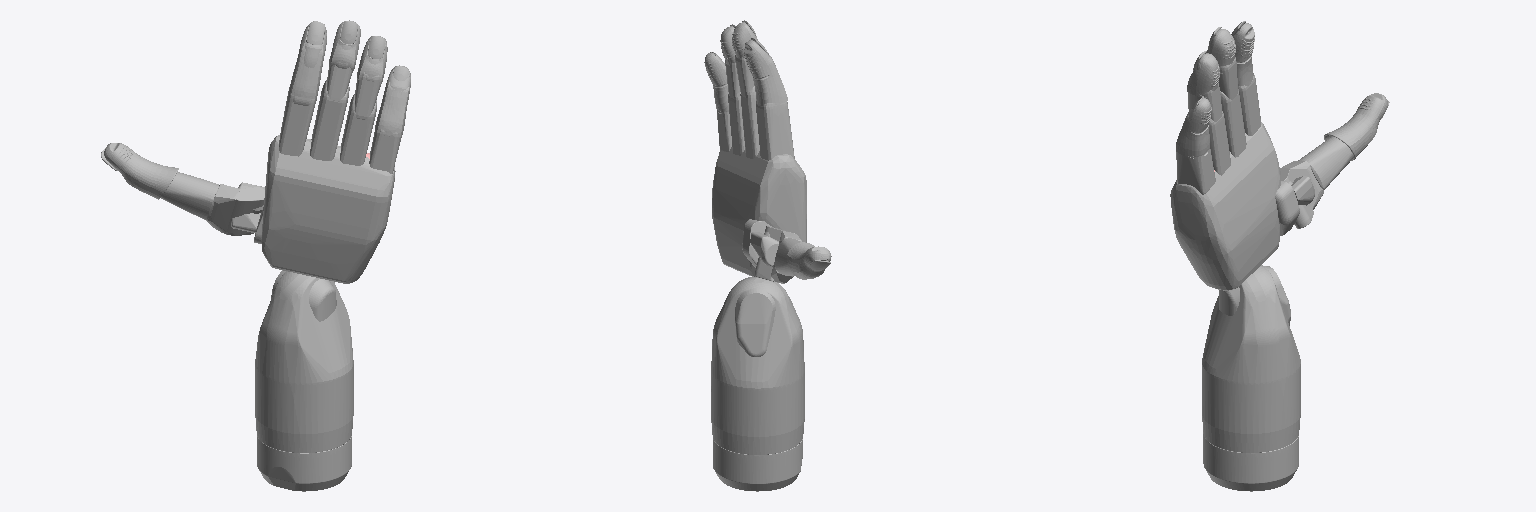
--- Render facts (derived) ---
The picture shows the robot from 3 angles, left to right: view 1: azimuth 30°, elevation 25°; view 2: azimuth 150°, elevation 25°; view 3: azimuth 270°, elevation 25°; orthographic projection.
Robot: luke_hand_description — 23 links, 22 joints (17 revolute, 5 fixed); root link world; default pose: all joints at 0.
Visible links, largest first — view 1: Palm-1, WR_Forearm-1, Distal_Thumb-1, WR_Base-1, dklu-38013-001, Middle_Proximal-1, Index_Proximal-1, Ring_Proximal-1, dklu-38014-0011-1, dklu-38017-001-1, WFD_Gearbox-1, Pinky_Proximal-1 (+5 smaller); view 2: WR_Forearm-1, Palm-1, WR_Base-1, WFD_Gearbox-1, Index_Proximal-1, dklu-38014-0011-1, Distal_Thumb-1, dklu-38013-001, Middle_Proximal-1, dklu-38017-001-1, Ring_Proximal-1; view 3: WR_Forearm-1, Palm-1, WR_Base-1, Distal_Thumb-1, dklu-38013-001, dklu-38017-001-1, Pinky_Proximal-1, Middle_Proximal-1, dklu-38014-0011-1, Ring_Proximal-1, dklu-38016-001-1, Index_Proximal-1 (+3 smaller).
Link boxes in pixels (bbox=[...]): Palm-1: bbox=[231, 135, 395, 283]; WR_Forearm-1: bbox=[255, 271, 353, 452]; Distal_Thumb-1: bbox=[101, 148, 264, 235]; WR_Base-1: bbox=[257, 436, 351, 491]; dklu-38013-001: bbox=[104, 143, 178, 199]; Middle_Proximal-1: bbox=[310, 80, 349, 160]; Index_Proximal-1: bbox=[279, 91, 316, 156]; Ring_Proximal-1: bbox=[340, 94, 376, 165]; dklu-38014-0011-1: bbox=[289, 24, 326, 98]; dklu-38017-001-1: bbox=[375, 65, 410, 136]; WFD_Gearbox-1: bbox=[271, 270, 336, 321]; Pinky_Proximal-1: bbox=[369, 129, 401, 173]; WR_Forearm-1: bbox=[711, 277, 804, 454]; Palm-1: bbox=[712, 147, 806, 276]; WR_Base-1: bbox=[713, 439, 802, 491]; WFD_Gearbox-1: bbox=[735, 287, 775, 356]; Index_Proximal-1: bbox=[756, 101, 794, 160]; dklu-38014-0011-1: bbox=[744, 40, 787, 106]; Distal_Thumb-1: bbox=[755, 226, 830, 283]; dklu-38013-001: bbox=[787, 242, 831, 279]; Middle_Proximal-1: bbox=[740, 86, 759, 158]; dklu-38017-001-1: bbox=[704, 52, 728, 113]; Ring_Proximal-1: bbox=[728, 92, 744, 155]; WR_Forearm-1: bbox=[1202, 265, 1300, 452]; Palm-1: bbox=[1170, 122, 1314, 290]; WR_Base-1: bbox=[1203, 434, 1298, 491]; Distal_Thumb-1: bbox=[1280, 100, 1389, 228]; dklu-38013-001: bbox=[1324, 93, 1387, 160]; dklu-38017-001-1: bbox=[1176, 98, 1211, 158]; Pinky_Proximal-1: bbox=[1176, 149, 1215, 194]; Middle_Proximal-1: bbox=[1220, 89, 1246, 157]; dklu-38014-0011-1: bbox=[1233, 23, 1254, 85]; Ring_Proximal-1: bbox=[1209, 111, 1230, 175]; dklu-38016-001-1: bbox=[1187, 53, 1219, 97]; Index_Proximal-1: bbox=[1238, 75, 1260, 135].
Bounding box of the posed robot: 0.1592 × 0.1372 × 0.3175 m (x, y, z).
33 mesh visuals loaded from 30 distinct referenced files (30 OBJ).

The robot description file, URDF, robot "luke_hand_description":
<robot
  name="luke_hand_description">
  <!-- testing shift all z by +0.02, y by 0.00475 -->
  <!-- and add <implicitSpringDamper>1</implicitSpringDamper> flag -->
  <link name="world"/>
  <link
    name="WR_Base-1">
    <inertial>
      <origin
        xyz="0.00023527 0 0.01049"
        rpy="0 0 -1.5708" />
      <mass
        value="0.481" />
      <inertia
        ixx="0.00017071"
        ixy="2.1462E-06"
        ixz="-7.2565E-07"
        iyy="0.00016837"
        iyz="4.1009E-07"
        izz="0.00030213" />
    </inertial>
    <collision>
      <origin xyz="0 0 0.0105" rpy="0 0 0"/>
      <geometry>
        <cylinder
          length="0.029" radius="0.032" />
      </geometry>
    </collision>
    <visual>
      <origin xyz="0 0 0.025" rpy="0 0 0"/>
      <geometry>
        <mesh
          filename="package://luke_hand_description/OBJ/base.obj" />
      </geometry>
      <material
        name="">
        <color
          rgba="0.75294 0.75294 0.75294 1" />
      </material>
    </visual>
    <!--
    <visual>
      <origin xyz="0 0 0.001" rpy="0 0 0"/>
      <geometry>
        <mesh
          filename="package://luke_hand_description/OBJ/WR_Base-1a.obj" />
      </geometry>
      <material
        name="">
        <color
          rgba="0.75294 0.75294 0.75294 1" />
      </material>
    </visual>
    <visual>
      <origin xyz="0 0 0.02" rpy="0 0 0"/>
      <geometry>
        <mesh
          filename="package://luke_hand_description/OBJ/WR_Base-1.obj" />
      </geometry>
      <material
        name="">
        <color
          rgba="0.75294 0.75294 0.75294 1" />
      </material>
    </visual>
    -->
  </link>
  <joint
    name="elbow"
    type="revolute">
    <origin
      xyz="0 0 0.12"
      rpy="0 0 1.0472" />
    <parent
      link="world" />
    <child
      link="WR_Base-1" />
    <axis
      xyz="-1 0 0" />
    <limit
      lower="0"
      upper="0"
      effort="10000"
      velocity="100" />
    <dynamics
      damping="2.0"
      friction="0.001"
      />
  </joint>
  <link
    name="WR_Forearm-1">
    <inertial>
      <origin
        xyz="0.00023527 -0.00012926 0.01049"
        rpy="0 0 0" />
      <mass
        value="0.481" />
      <inertia
        ixx="0.00017071"
        ixy="2.1462E-06"
        ixz="-7.2565E-07"
        iyy="0.00016837"
        iyz="4.1009E-07"
        izz="0.00030213" />
    </inertial>
    <collision>
      <origin xyz="0 0 0.065" rpy="0 0 0"/>
      <geometry>
        <cylinder
          length="0.08" radius="0.032" />
      </geometry>
    </collision>
    <collision>
      <origin xyz="0 0 0.121" rpy="1.570796 0 -0.58"/>
      <geometry>
        <cylinder
          length="0.020" radius="0.02" />
      </geometry>
    </collision>
    <collision>
      <origin xyz="0 0 0.103" rpy="1.570796 0 -0.58"/>
      <geometry>
        <cylinder
          length="0.020" radius="0.0275" />
      </geometry>
    </collision>
    <visual>
      <origin xyz="0 0 0.025" rpy="0 0 0.9"/>
      <geometry>
        <mesh
          filename="package://luke_hand_description/OBJ/forearm.obj" />
      </geometry>
      <material
        name="">
        <color
          rgba="0.75294 0.75294 0.75294 1" />
      </material>
    </visual>
    <!--
    <visual>
      <origin xyz="0 0 0.02" rpy="0 0 0"/>
      <geometry>
        <mesh
          filename="package://luke_hand_description/OBJ/MAC_WR_LUI-1.obj" />
      </geometry>
      <material
        name="">
        <color
          rgba="0.75294 0.75294 0.75294 1" />
      </material>
    </visual>
    <visual>
      <origin xyz="0 0 0.018" rpy="0 0 0"/>
      <geometry>
        <mesh
          filename="package://luke_hand_description/OBJ/WFD_Mount-1.obj" />
      </geometry>
      <material
        name="">
        <color
          rgba="0.75294 0.75294 0.75294 1" />
      </material>
    </visual>
    -->
  </link>
  <joint
    name="wrist_rot"
    type="revolute">
    <origin
      xyz="0 0 0"
      rpy="0 0 0" />
    <parent
      link="WR_Base-1" />
    <child
      link="WR_Forearm-1" />
    <axis
      xyz="0 0 -1" />
    <limit
      lower="-2.0944"
      upper="2.558"
      effort="10000"
      velocity="100" />
    <dynamics
      damping="30"
      friction="0.001" />
  </joint>
  <link
    name="WFD_Gearbox-1">
    <inertial>
      <origin
        xyz="-0.00077349 0.0012316 0.025483"
        rpy="0 0 0" />
      <mass
        value="0.1555" />
      <inertia
        ixx="0.0001555"
        ixy="0"
        ixz="0"
        iyy="0.0001555"
        iyz="0"
        izz="0.0001555" />
    </inertial>
    <collision>
      <origin xyz="0 0 0" rpy="1.570796 0.124566 0"/>
      <geometry>
        <cylinder
          length="0.035" radius="0.013" />
      </geometry>
    </collision>
    <visual>
      <origin xyz="0 0 0" rpy="0 0 1.56073"/>
      <geometry>
        <mesh
          filename="package://luke_hand_description/OBJ/wrist.obj" />
      </geometry>
      <material
        name="">
        <color
          rgba="0.75294 0.75294 0.75294 1" />
      </material>
    </visual>
    <!--
    <visual>
      <origin xyz="0 -0.023265 -0.098808" rpy="-0.195329 0.124566 0.56073"/>
      <geometry>
        <mesh
          filename="package://luke_hand_description/OBJ/WFD_Gearbox-1.obj" />
      </geometry>
      <material
        name="">
        <color
          rgba="0.75294 0.75294 0.75294 1" />
      </material>
    </visual>
    -->
  </link>
  <joint
    name="wrist_ab_ad"
    type="revolute">
    <origin
      xyz="0 0 0.12151"
      rpy="0.23124 0 -0.57295" />
    <parent
      link="WR_Forearm-1" />
    <child
      link="WFD_Gearbox-1" />
    <axis
      xyz="1 0 0" />
    <limit
      lower="0"
      upper="0.52359877559"
      effort="10000"
      velocity="100" />
    <dynamics
      damping="1"
      friction="0.1" />
  </joint>
  <link
    name="Palm-1">
    <inertial>
      <origin
        xyz="-0.00077349 0.0012316 0.025483"
        rpy="0 0 0" />
      <mass
        value="0.4747" />
      <inertia
        ixx="0.00047"
        ixy="0"
        ixz="0"
        iyy="0.00047"
        iyz="0"
        izz="0.00047" />
    </inertial>
    <collision>
      <!-- -0.003-((0.033+0.003)/4)*cos(0.5607), -((0.033+0.003)/4)*sin(0.5607), z -->
      <origin xyz="-0.01062194765 -0.00478601231 0.065" rpy="0.0 0.0 0.50"/>
      <geometry>
        <box size="0.0195 0.065 0.08"/>
      </geometry>
    </collision>
    <!-- Palm front distal -->
    <collision>
      <!-- -0.003+((0.033+0.012)/4)*cos(0.5607), ((0.033+0.012)/4)*sin(0.5607), z -->
      <origin xyz="0.00652743457 0.00598251539 0.065" rpy="0.0 0.0 0.50"/>
      <geometry>
        <box size="0.0225 0.065 0.035"/>
      </geometry>
    </collision>
    <!-- DEBUG: front collision visual
    <visual>
      <!- -0.003+((0.033+0.012)/4)*cos(0.5607), ((0.033+0.012)/4)*sin(0.5607), z ->
      <origin xyz="0.01652743457 0.00598251539 0.065" rpy="0.0 0.0 0.50"/>
      <geometry>
        <box size="0.0225 0.065 0.05"/>
      </geometry>
    </visual>
    -->
    <collision> <!-- outside -->
      <!-- -0.003+(0.075/2-0.005/2)*sin(0.5607), -(0.075/2-0.005/2)*cos(0.5607), z -->
      <origin xyz="0.01561227012 -0.02964090755 0.065" rpy="0.0 0.0 0.56073"/>
      <geometry>
        <box size="0.033 0.005 0.06"/>
      </geometry>
    </collision>
    <collision> <!-- inside 3 -->
      <!-- -0.003-(0.075/2-0.005/2)*sin(0.5607), (0.075/2-0.005/2)*cos(0.5607), z -->
      <origin xyz="-0.02161227012 0.02964090755 0.065" rpy="0.0 0.0 0.56073"/>
      <geometry>
        <box size="0.033 0.005 0.06"/>
      </geometry>
    </collision>
    <!-- DEBUG: collision visual
    <visual>
      <!- -0.003-(0.075/2-0.005/2)*sin(0.5607), (0.075/2-0.005/2)*cos(0.5607), z ->
      <origin xyz="-0.02161227012 0.03964090755 0.065" rpy="0.0 0.0 0.56073"/>
      <geometry>
        <box size="0.033 0.005 0.06"/>
      </geometry>
    </visual>
    -->
    <!--
    <collision>
      <origin xyz="-0.003 0 0.065" rpy="0.0 0.0 0.56073"/>
      <geometry>
        <box size="0.033 0.075 0.08"/>
      </geometry>
    </collision>
    -->

    <collision>
      <origin xyz="-0.013 0.025 0.015" rpy="0.0 0.0 0.56073"/>
      <geometry>
        <box size="0.03 0.005 0.02"/>
      </geometry>
    </collision>
    <collision>
      <origin xyz="0.013 -0.025 0.015" rpy="0.0 0.0 0.56073"/>
      <geometry>
        <box size="0.03 0.005 0.02"/>
      </geometry>
    </collision>
    <collision>
      <origin xyz="0 0.025 0.00" rpy="0.0 0.0 0"/>
      <geometry>
        <box size="0.03 0.005 0.02"/>
      </geometry>
    </collision>
    <collision>
      <origin xyz="0 -0.025 0.00" rpy="0.0 0.0 0"/>
      <geometry>
        <box size="0.03 0.005 0.02"/>
      </geometry>
    </collision>
    <!-- Palm front proximal -->
    <collision>
      <!-- -0.003+((0.033+0.012)/4)*cos(0.5607), ((0.033+0.012)/4)*sin(0.5607), z -->
      <origin xyz="0.00652743457 0.00598251539 0.040" rpy="0.0 0.0 0.50"/>
      <geometry>
        <box size="0.0225 0.065 0.015"/>
      </geometry>
    </collision>
    <!--
    <visual>
      <origin xyz="0 -0.023265 -0.098808" rpy="-0.195329 0.124566 0.56073"/>
      <geometry>
        <mesh
          filename="package://luke_hand_description/OBJ/Palm-1.obj" />
      </geometry>
      <material
        name="">
        <color
          rgba="0.75294 0.75294 0.75294 1" />
      </material>
    </visual>
    -->
    <visual>
      <origin xyz="0 0 0" rpy="0 0 2.06073"/>
      <geometry>
        <mesh
          filename="package://luke_hand_description/OBJ/palm0.obj" />
      </geometry>
      <material
        name="">
        <color
          rgba="0.75294 0.75294 0.75294 1" />
      </material>
    </visual>
    <visual>
      <origin xyz="0 0 0" rpy="0 0 2.06073"/>
      <geometry>
        <mesh
          filename="package://luke_hand_description/OBJ/palm1.obj" />
      </geometry>
      <material
        name="">
        <color
          rgba="0.75294 0.75294 0.75294 1" />
      </material>
    </visual>
    <!--
    <visual>
      <origin xyz="0 0 0" rpy="0 0 2.06073"/>
      <geometry>
        <mesh
          filename="package://luke_hand_description/OBJ/palm12.obj" />
      </geometry>
      <material
        name="">
        <color
          rgba="0.75294 0.75294 0.75294 1" />
      </material>
    </visual>
    -->
    <visual>
      <origin xyz="0 0 0" rpy="0 0 2.06073"/>
      <geometry>
        <mesh
          filename="package://luke_hand_description/OBJ/palm2.obj" />
      </geometry>
      <material
        name="">
        <color
          rgba="0.75294 0.75294 0.75294 1" />
      </material>
    </visual>
  </link>
  <joint
    name="wrist_flex"
    type="revolute">
    <origin
      xyz="0 0 0"
      rpy="0 0 5.5511E-17" />
    <parent
      link="WFD_Gearbox-1" />
    <child
      link="Palm-1" />
    <axis
      xyz="0 -1 0" />
    <limit
      lower="-0.937024"
      upper="0.946296"
      effort="10000"
      velocity="100" />
    <dynamics
      damping="70"
      friction="0.1" />
  </joint>
  <link
    name="Thumb_Gear-1">
    <inertial>
      <origin
        xyz="-0.023851 -0.037247 0.017527"
        rpy="0 0 0" />
      <mass
        value="0.01" />
      <inertia
        ixx="1E-05"
        ixy="0"
        ixz="0"
        iyy="1E-05"
        iyz="0"
        izz="1E-05" />
    </inertial>
    <collision>
      <origin xyz="0 0 0" rpy="0 1.58 -0.2"/>
      <geometry>
        <cylinder length="0.032" radius="0.005"/>
      </geometry>
    </collision>
    <!--
    <visual>
      <origin xyz="-0.146139 -0.036862 0.050607" rpy="2.82164 1.26851 2.83524"/>
      <geometry>
        <mesh
          filename="package://luke_hand_description/OBJ/Thumb_Gear-1.obj" />
      </geometry>
      <material
        name="">
        <color
          rgba="0.75294 0.75294 0.75294 1" />
      </material>
    </visual>
    -->
    <visual>
      <origin xyz="0 0 0" rpy="2.8 1.6 2.6"/>
      <geometry>
        <mesh
          filename="package://luke_hand_description/OBJ/thumb_Gear.obj" />
      </geometry>
      <material
        name="">
        <color
          rgba="0.75294 0.75294 0.75294 1" />
      </material>
    </visual>
  </link>
  <joint
    name="thumb_yaw"
    type="revolute">
    <origin
      xyz="-0.0088038 0.043847 0.04505"
      rpy="-2.349 -1.3196 2.8562" />
    <parent
      link="Palm-1" />
    <child
      link="Thumb_Gear-1" />
    <axis
      xyz="-0.18257 -0.98319 0" />
    <limit
      lower="0"
      upper="1.28173"
      effort="10000"
      velocity="100" />
    <dynamics
      damping="0.9"
      friction="0.0" />
  </joint>
  <link
    name="Distal_Thumb-1">
    <inertial>
      <origin
        xyz="-0.023851 -0.037247 0.017527"
        rpy="0 0 0" />
      <mass
        value="0.035" />
      <inertia
        ixx="3.5E-05"
        ixy="0"
        ixz="0"
        iyy="3.5E-05"
        iyz="0"
        izz="3.5E-05" />
    </inertial>
    <collision> <!-- 0 -->
      <origin xyz="-0.0125 0.015 0.0065" rpy="1.7 0 -0.2"/>
      <geometry>
        <box size="0.005 0.011 0.018" />
      </geometry>
    </collision>

    <collision> <!-- 1 -->
      <origin xyz="0.017 0.008 0.0095" rpy="1.7 0 -0.2"/>
      <geometry>
        <box size="0.003 0.007 0.018" />
      </geometry>
    </collision>

    <collision> <!-- 2 -->
      <origin xyz="0.005 0.020 0.0085" rpy="1.7 0 -0.2"/>
      <geometry>
        <box size="0.030 0.011 0.008" />
      </geometry>
    </collision>

    <collision> <!-- 3 -->
      <origin xyz="0.008 0.040 0.010" rpy="1.7 0 -0.2"/>
      <geometry>
        <cylinder length="0.03" radius="0.012" />
      </geometry>
    </collision>
    <collision> <!-- 4 extend -->
      <origin xyz="0.013 0.065 0.011" rpy="1.6 0 -0.2"/>
      <geometry>
        <cylinder length="0.020" radius="0.010" />
      </geometry>
    </collision>
    <!-- DEBUG: collision visual extend
    <visual>
      <origin xyz="0.023 0.065 0.011" rpy="1.6 0 -0.2"/>
      <geometry>
        <cylinder length="0.020" radius="0.010" />
      </geometry>
    </visual>
    -->

    <!-- Distal_Thumb-1 collisions -->
    <collision> <!-- 5 -->
      <origin xyz="0.021 0.082 0.011" rpy="1.6 0 -0.6"/>
      <geometry>
        <cylinder length="0.020" radius="0.007" />
      </geometry>
    </collision>
    <collision> <!-- 6 -->
      <origin xyz="0.0265 0.090 0.011" rpy="1.6 0 -0.6"/>
      <geometry>
        <sphere radius="0.007" />
      </geometry>
    </collision>
    <!-- Dorsal 7 -->
    <collision>
      <origin xyz="0.022 0.094 0.013" rpy="1.5 0.0 -2.3"/>
      <geometry>
        <cylinder length="0.0005" radius="0.006" />
      </geometry>
    </collision>
    <!-- DEBUG: collision visual
    <visual>
      <origin xyz="0.031 0.082 0.011" rpy="1.6 0 -0.6"/>
      <geometry>
        <cylinder length="0.020" radius="0.007" />
      </geometry>
    </visual>
    <visual>
      <origin xyz="0.0365 0.090 0.011" rpy="1.6 0 -0.6"/>
      <geometry>
        <sphere radius="0.007" />
      </geometry>
    </visual>
    <visual>
      <origin xyz="0.032 0.094 0.013" rpy="1.5 0.0 -2.3"/>
      <geometry>
        <cylinder length="0.0005" radius="0.006" />
      </geometry>
    </visual>
    -->

    <collision> <!-- 8 extend, move to side -->
      <origin xyz="0.013 0.065 0.010" rpy="1.6 0 -0.2"/>
      <geometry>
        <cylinder length="0.020" radius="0.010" />
      </geometry>
    </collision>
    <collision> <!-- 9 -->
      <origin xyz="0.021 0.082 0.010" rpy="1.6 0 -0.6"/>
      <geometry>
        <cylinder length="0.020" radius="0.007" />
      </geometry>
    </collision>
    <!-- Volar 10 -->
    <collision>
      <origin xyz="0.0285 0.085 0.011" rpy="1.5 0.0 -2.1"/>
      <geometry>
        <cylinder length="0.0005" radius="0.006" />
      </geometry>
    </collision>

    <!-- Ulnar 11 -->
    <collision>
      <origin xyz="0.0225 0.085 0.02" rpy="3.04 0.14 0.0"/>
      <geometry>
        <cylinder length="0.0005" radius="0.006" />
      </geometry>
    </collision>

    <!-- Radial 12 -->
    <collision>
      <origin xyz="0.0225 0.085 0.005" rpy="3.04 0.14 0.0"/>
      <geometry>
        <cylinder length="0.0005" radius="0.006" />
      </geometry>
    </collision>
    <!-- DEBUG: collision visual
    <visual>
      <origin xyz="0.013 0.065 -0.000" rpy="1.6 0 -0.2"/>
      <geometry>
        <cylinder length="0.020" radius="0.010" />
      </geometry>
    </visual>
    -->

    <visual>
      <origin xyz="0 0 0" rpy="1.51 -0.06 1.38"/>
      <geometry>
        <mesh
          filename="package://luke_hand_description/OBJ/Thumb_Nail.obj" />
      </geometry>
      <material
        name="">
        <color
          rgba="0.75294 0.75294 0.75294 1" />
      </material>
    </visual>
    <visual>
      <origin xyz="0 0 0" rpy="1.51 -0.06 1.38"/>
      <geometry>
        <mesh
          filename="package://luke_hand_description/OBJ/Thumb_Distal.obj" />
      </geometry>
      <material
        name="">
        <color
          rgba="0.75294 0.75294 0.75294 1" />
      </material>
    </visual>
    <visual>
      <origin xyz="0 0 0" rpy="1.51 -0.06 1.38"/>
      <geometry>
        <mesh
          filename="package://luke_hand_description/OBJ/Thumb_Proximal.obj" />
      </geometry>
      <material
        name="">
        <color
          rgba="0.75294 0.75294 0.75294 1" />
      </material>
    </visual>
    <visual>
      <origin xyz="0 0 0" rpy="1.51 -0.06 1.38"/>
      <geometry>
        <mesh
          filename="package://luke_hand_description/OBJ/thumb1.obj" />
      </geometry>
      <material
        name="">
        <color
          rgba="0.75294 0.75294 0.75294 1" />
      </material>
    </visual>
    <visual>
      <origin xyz="0 0 0" rpy="1.51 -0.06 1.38"/>
      <geometry>
        <mesh
          filename="package://luke_hand_description/OBJ/thumb0.obj" />
      </geometry>
      <material
        name="">
        <color
          rgba="0.75294 0.75294 0.75294 1" />
      </material>
    </visual>
    <!--
    <visual>
      <origin xyz="-0.146139 -0.036862 0.050607" rpy="2.82164 1.26851 2.83524"/>
      <geometry>
      "0 0 0"  <mesh
          filename="package://luke_hand_description/OBJ/Distal_Thumb-1.obj" />
      </geometry>
      <material
        name="">
        <color
          rgba="0.75294 0.75294 0.75294 1" />
      </material>
    </visual>
    -->
  </link>
  <joint
    name="thumb_pitch"
    type="revolute">
    <!-- 15 degrees rotation as initial position match fine pinches -->
    <origin
      xyz="0 0 0"
      rpy="-0.261 0.006 -0.046" />
    <parent
      link="Thumb_Gear-1" />
    <child
      link="Distal_Thumb-1" />
    <axis
      xyz="-1 0.18 0" />
    <limit
      lower="0"
      upper="1.77151"
      effort="10000"
      velocity="100" />
    <dynamics
      damping="0.6"
      friction="0.0" />
  </joint>
  <link
    name="dklu-38013-001">
    <inertial>
      <origin
        xyz="0.0036074 0.077779 0.0021647"
        rpy="0 0 0" />
      <mass
        value="0.0049221" />
      <inertia
        ixx="8.1722E-07"
        ixy="5.8087E-08"
        ixz="1.5443E-08"
        iyy="3.6646E-07"
        iyz="1.29E-07"
        izz="7.8746E-07" />
    </inertial>
    <visual>
      <origin xyz="0 0 0" rpy="-1.0 1.8 -1.19"/>
      <geometry>
        <mesh
          filename="package://luke_hand_description/OBJ/dklu-38013-001-1.obj" />
      </geometry>
      <material
        name="">
        <color
          rgba="0.75294 0.75294 0.75294 1" />
      </material>
    </visual>
  </link>
  <joint
    name="thumb_cosmesis"
    type="fixed">
    <origin
      xyz="0 0 0"
      rpy="5.2042E-18 -5.5511E-17 -3.4694E-18" />
    <parent
      link="Distal_Thumb-1" />
    <child
      link="dklu-38013-001" />
    <axis
      xyz="0 0 0" />
  </joint>
  <link
    name="Index_Proximal-1">
    <inertial>
      <origin
        xyz="0.073068 -0.014703 0.011025"
        rpy="0 0 0" />
      <mass
        value="0.0191" />
      <inertia
        ixx="1.91E-05"
        ixy="0"
        ixz="0"
        iyy="1.91E-05"
        iyz="0"
        izz="1.91E-05" />
    </inertial>
    <collision>
      <origin xyz="-0.02 0.0023 0.039" rpy="1.36808 -1.50 -1.48"/>
      <geometry>
        <cylinder length="0.05" radius="0.0095"/>
      </geometry>
    </collision>
    <!--
    <visual>
      <origin xyz="0.196826 -0.030547 -0.010923" rpy="1.36808 -0.03651 -1.66632"/>
      <geometry>
        <mesh
          filename="package://luke_hand_description/OBJ/Index_Proximal-1.obj" />
      </geometry>
      <material
        name="">
        <color
          rgba="0.25098 0.25098 0.25098 1" />
      </material>
    </visual>
    -->
    <visual>
      <origin xyz="0 0 0.039" rpy="-0.1 -1.5708 -0"/>
      <geometry>
        <mesh
          filename="package://luke_hand_description/OBJ/Index_Proximal.obj" />
      </geometry>
      <material
        name="">
        <color
          rgba="0.75294 0.75294 0.75294 1" />
      </material>
    </visual>
  </link>
  <joint
    name="index_proximal_flex"
    type="revolute">
    <origin
      xyz="0.0062467 -0.0076872 0.099967"
      rpy="1.558 1.3505 -2.6305" />
    <parent
      link="Palm-1" />
    <child
      link="Index_Proximal-1" />
    <axis
      xyz="0 0 1" />
    <limit
      lower="0"
      upper="1.48571"
      effort="10000"
      velocity="100" />
    <dynamics
      damping="0.3"
      friction="0.1" />
  </joint>
  <link
    name="Index_Distal-1">
    <inertial>
      <origin
        xyz="0.11426 -0.0063439 -0.027975"
        rpy="0 0 0" />
      <mass
        value="0.0172" />
      <inertia
        ixx="1.72E-05"
        ixy="0"
        ixz="0"
        iyy="1.72E-05"
        iyz="0"
        izz="1.72E-05" />
    </inertial>
    <collision>
      <origin xyz="-0.015 -0.002 0" rpy="1.36808 -1.50 -1.15"/>
      <geometry>
        <cylinder length="0.028" radius="0.0095"/>
      </geometry>
    </collision>
    <collision>
      <origin xyz="-0.035 -0.0075 0" rpy="1.36808 -1.50 -1.15"/>
      <geometry>
        <cylinder length="0.013" radius="0.0085"/>
      </geometry>
    </collision>
    <collision>
      <origin xyz="-0.04 -0.0100 0" rpy="1.36808 -1.50 -1.15"/>
      <geometry>
        <sphere radius="0.0075"/>
      </geometry>
    </collision>
    <collision>
      <origin xyz="-0.0415 -0.007 0" rpy="1.75 -1.50 -2.75"/>
      <geometry>
        <cylinder length="0.0005" radius="0.0075"/>
      </geometry>
    </collision>
    <!-- DEBUG: collision visual
    <visual>
      <origin xyz="-0.015 -0.012 0" rpy="1.36808 -1.50 -1.15"/>
      <geometry>
        <cylinder length="0.028" radius="0.0095"/>
      </geometry>
    </visual>
    <visual>
      <origin xyz="-0.035 -0.0175 0" rpy="1.36808 -1.50 -1.15"/>
      <geometry>
        <cylinder length="0.013" radius="0.0085"/>
      </geometry>
    </visual>
    <visual>
      <origin xyz="-0.04 -0.0200 0" rpy="1.36808 -1.50 -1.15"/>
      <geometry>
        <sphere radius="0.0075"/>
      </geometry>
    </visual>
    <visual>
      <origin xyz="-0.0415 -0.017 0" rpy="1.75 -1.50 -2.75"/>
      <geometry>
        <cylinder length="0.0005" radius="0.0075"/>
      </geometry>
    </visual>
    -->
    <collision> <!-- extend copy for side -->
      <origin xyz="-0.015 -0.002 0.001" rpy="1.36808 -1.50 -1.15"/>
      <geometry>
        <cylinder length="0.028" radius="0.0095"/>
      </geometry>
    </collision>
    <!-- DEBUG: extend copy for side
    <visual>
      <origin xyz="-0.015 -0.002 0.011" rpy="1.36808 -1.50 -1.15"/>
      <geometry>
        <cylinder length="0.028" radius="0.0095"/>
      </geometry>
    </visual>
    -->

<!-- for emo's collision without cosmesis
    <collision>
      <origin xyz="-0.008 -0.002 0" rpy="1.16808 -1.50 -1.15"/>
      <geometry>
        <cylinder length="0.014" radius="0.0095"/>
      </geometry>
    </collision>
    <collision>
      <origin xyz="-0.022 -0.003 0" rpy="1.26808 -1.50 -1.15"/>
      <geometry>
        <cylinder length="0.014" radius="0.009"/>
      </geometry>
    </collision>
    <collision>
      <origin xyz="-0.032 -0.006 0" rpy="1.36808 -1.50 -1.15"/>
      <geometry>
        <cylinder length="0.007" radius="0.008"/>
      </geometry>
    </collision>
    <collision>
      <origin xyz="-0.038 -0.0079 0" rpy="1.36808 -1.50 -1.15"/>
      <geometry>
        <cylinder length="0.005" radius="0.007"/>
      </geometry>
    </collision>
    <collision>
      <origin xyz="-0.04 -0.0085 0" rpy="1.36808 -1.50 -1.15"/>
      <geometry>
        <sphere radius="0.006"/>
      </geometry>
    </collision>
-->
    <!--
    <visual>
      <origin xyz="0.239019 -0.008088 -0.049923" rpy="1.36807 -0.036513 -1.55297"/>
      <geometry>
        <mesh
          filename="package://luke_hand_description/OBJ/Index_Distal-1.obj" />
      </geometry>
      <material
        name="">
        <color
          rgba="0.75294 0.75294 0.75294 1" />
      </material>
    </visual>
    -->
    <visual>
      <origin xyz="0 0 0" rpy="0.12 -1.5708 0"/>
      <geometry>
        <mesh
          filename="package://luke_hand_description/OBJ/Index_Distal0.obj" />
      </geometry>
      <material
        name="">
        <color
          rgba="0.75294 0.75294 0.75294 1" />
      </material>
    </visual>
    <visual>
      <origin xyz="0 0 0" rpy="0.12 -1.5708 0"/>
      <geometry>
        <mesh
          filename="package://luke_hand_description/OBJ/Index_Distal1.obj" />
      </geometry>
      <material
        name="">
        <color
          rgba="0.75294 0.75294 0.75294 1" />
      </material>
    </visual>
    <visual>
      <origin xyz="0 0 0" rpy="0.12 -1.5708 0"/>
      <geometry>
        <mesh
          filename="package://luke_hand_description/OBJ/Index_Nail.obj" />
      </geometry>
      <material
        name="">
        <color
          rgba="0.75294 0.75294 0.75294 1" />
      </material>
    </visual>
  </link>
  <joint
    name="index_distal_flex"
    type="revolute">
    <origin
      xyz="-0.039743 0.0045244 0.039"
      rpy="-3.3059E-15 1.0491E-07 -0.11335" />
    <parent
      link="Index_Proximal-1" />
    <child
      link="Index_Distal-1" />
    <axis
      xyz="0 0 1" />
    <limit
      lower="0"
      upper="1.5708"
      effort="10000"
      velocity="100" />
    <dynamics
      damping="1"
      friction="0.1" />
  </joint>
  <link
    name="dklu-38014-0011-1">
    <inertial>
      <origin
        xyz="-0.024029 -0.0049452 -4.6789E-05"
        rpy="0 0 0" />
      <mass
        value="0.0041212" />
      <inertia
        ixx="2.7902E-07"
        ixy="1.6277E-07"
        ixz="-5.7383E-11"
        iyy="6.7481E-07"
        iyz="-2.5725E-11"
        izz="7.164E-07" />
    </inertial>
    <visual>
      <origin
        xyz="0 0 0"
        rpy="0 0 0" />
      <geometry>
        <mesh
          filename="package://luke_hand_description/OBJ/dklu-38014-0011-1.obj" />
      </geometry>
      <material
        name="">
        <color
          rgba="0.75294 0.75294 0.75294 1" />
      </material>
    </visual>
  </link>
  <joint
    name="index_cosmesis"
    type="fixed">
    <origin
      xyz="0 0 0"
      rpy="7.3726E-18 -2.7756E-17 1.7347E-18" />
    <parent
      link="Index_Distal-1" />
    <child
      link="dklu-38014-0011-1" />
    <axis
      xyz="0 0 0" />
  </joint>

  <!-- model MRP differential joint -->
  <link
    name="MRP_Differential">
    <inertial>
      <origin
        xyz="0.073068 -0.014703 0.011025"
        rpy="0 0 0" />
      <mass
        value="0.0123" />
      <inertia
        ixx="1.23E-05"
        ixy="0"
        ixz="0"
        iyy="1.23E-05"
        iyz="0"
        izz="1.23E-05" />
    </inertial>
    <collision>
      <origin xyz="0 0 0" rpy="0 0 1.570796"/>
      <geometry>
        <cylinder length="0.05" radius="0.0090"/>
      </geometry>
    </collision>
    <visual>
      <origin xyz="0 0 0" rpy="0 0 1.570796"/>
      <geometry>
        <cylinder length="0.05" radius="0.0090"/>
      </geometry>
      <material
        name="">
        <color
          rgba="1.0 0.75294 0.75294 1" />
      </material>
    </visual>
  </link>
  <joint
    name="mrp_differential_flex"
    type="revolute">
    <origin
      xyz="0.0062467 -0.0076872 0.099967"
      rpy="1.558 1.3505 -2.6305" />
    <parent
      link="Palm-1" />
    <child
      link="MRP_Differential" />
    <axis
      xyz="0 0 1" />
    <limit
      lower="0"
      upper="1.20455"
      effort="10000"
      velocity="100" />
    <dynamics
      damping="0.3"
      friction="0.001"
      />
  </joint>

  <link
    name="Middle_Proximal-1">
    <inertial>
      <origin
        xyz="0.074147 -0.0075701 -0.0079751"
        rpy="0 0 0" />
      <mass
        value="0.0131" />
      <inertia
        ixx="1.31E-05"
        ixy="0"
        ixz="0"
        iyy="1.31E-05"
        iyz="0"
        izz="1.31E-05" />
    </inertial>
    <collision>
      <origin xyz="-0.02 0.0 0.0" rpy="1.36808 -1.50 -1.40"/>
      <geometry>
        <cylinder length="0.06" radius="0.0095"/>
      </geometry>
    </collision>
<!--
    <visual>
      <origin xyz="0.198857 -0.011377 -0.029924" rpy="1.36807 -0.036477 -1.56951"/>
      <geometry>
        <mesh
          filename="package://luke_hand_description/OBJ/Middle_Proximal-1.obj" />
      </geometry>
      <material
        name="">
        <color
          rgba="0.75294 0.75294 0.75294 1" />
      </material>
    </visual>
-->
    <visual>
      <origin xyz="0 0 0" rpy="0 -1.5708 0"/>
      <geometry>
        <mesh
          filename="package://luke_hand_description/OBJ/Middle_Proximal.obj" />
      </geometry>
      <material
        name="">
        <color
          rgba="0.75294 0.75294 0.75294 1" />
      </material>
    </visual>
  </link>
  <joint
    name="middle_proximal_flex"
    type="revolute">
    <origin
      xyz="0 0 0.019"
      rpy="-3.7e-05 -7e-06 -0.096814" />
    <parent
      link="MRP_Differential" />
    <child
      link="Middle_Proximal-1" />
    <axis
      xyz="0 0 1" />
    <limit
      lower="0"
      upper="1.5708"
      effort="10000"
      velocity="100" />
    <dynamics
      damping="0.09"
      friction="0.0"
      />
  </joint>
  <link
    name="Middle_Ring_Median-1">
    <inertial>
      <origin
        xyz="0.11845 -0.0075701 -0.0079751"
        rpy="0 0 0" />
      <mass
        value="0.0051" />
      <inertia
        ixx="5.1E-06"
        ixy="0"
        ixz="0"
        iyy="5.1E-06"
        iyz="0"
        izz="5.1E-06" />
    </inertial>
    <collision>
      <origin xyz="-0.015 0.0 -0.0" rpy="1.36808 -1.50 -1.30"/>
      <geometry>
        <cylinder length="0.02" radius="0.0085"/>
      </geometry>
    </collision>
    <!--
    <visual>
      <origin xyz="0.243157 -0.011377 -0.029925" rpy="1.36807 -0.036477 -1.56951"/>
      <geometry>
        <mesh
          filename="package://luke_hand_description/OBJ/Middle_Ring_Median-1.obj" />
      </geometry>
      <material
        name="">
        <color
          rgba="0.75294 0.75294 0.75294 1" />
      </material>
    </visual>
    -->
    <visual>
      <origin xyz="0 0 0" rpy="0.1 -1.5708 0"/>
      <geometry>
        <mesh
          filename="package://luke_hand_description/OBJ/MiddleRing_Median.obj" />
      </geometry>
      <material
        name="">
        <color
          rgba="0.75294 0.75294 0.75294 1" />
      </material>
    </visual>
  </link>
  <joint
    name="middle_median_flex"
    type="revolute">
    <origin
      xyz="-0.0443 0 0"
      rpy="-4.4192E-15 2.2204E-16 1.7156E-15" />
    <parent
      link="Middle_Proximal-1" />
    <child
      link="Middle_Ring_Median-1" />
    <axis
      xyz="0 0 1" />
    <limit
      lower="0"
      upper="1.5708"
      effort="10000"
      velocity="100" />
    <dynamics
      damping="0.09"
      friction="0.0"
      />
  </joint>
  <link
    name="Middle_Ring_Distal-1">
    <inertial>
      <origin
        xyz="0.1427 -0.015269 -0.0079751"
        rpy="0 0 0" />
      <mass
        value="0.0035" />
      <inertia
        ixx="3.5E-06"
        ixy="0"
        ixz="0"
        iyy="3.5E-06"
        iyz="0"
        izz="3.5E-06" />
    </inertial>
    <collision>
      <origin xyz="-0.01 -0.0025 -0.0" rpy="1.36808 -1.50 -1.30"/>
      <geometry>
        <cylinder length="0.02" radius="0.008"/>
      </geometry>
    </collision>
    <collision>
      <origin xyz="-0.018 -0.00325 -0.0" rpy="1.36808 -1.50 -1.30"/>
      <geometry>
        <sphere radius="0.0075"/>
      </geometry>
    </collision>
    <collision>
      <origin xyz="-0.019 0.0010 -0.0" rpy="1.36808 -1.50 -2.80"/>
      <geometry>
        <cylinder length="0.0005" radius="0.0075"/>
      </geometry>
    </collision>
    <!--
    <visual>
      <origin xyz="0.266901 -0.027191 -0.029923" rpy="1.36807 -0.036476 -1.63469"/>
      <geometry>
        <mesh
          filename="package://luke_hand_description/OBJ/Middle_Ring_Distal-1.obj" />
      </geometry>
      <material
        name="">
        <color
          rgba="0.75294 0.75294 0.75294 1" />
      </material>
    </visual>
    -->
    <visual>
      <origin xyz="0 0 0" rpy="0.05 -1.5708 0"/>
      <geometry>
        <mesh
          filename="package://luke_hand_description/OBJ/MiddleRing_Distal.obj" />
      </geometry>
      <material
        name="">
        <color
          rgba="0.75294 0.75294 0.75294 1" />
      </material>
    </visual>
    <visual>
      <origin xyz="0 0 0" rpy="0.05 -1.5708 0"/>
      <geometry>
        <mesh
          filename="package://luke_hand_description/OBJ/MiddleRing_Nail.obj" />
      </geometry>
      <material
        name="">
        <color
          rgba="0.75294 0.75294 0.75294 1" />
      </material>
    </visual>
  </link>
  <joint
    name="middle_distal_flex"
    type="revolute">
    <origin
      xyz="-0.024947 -0.0016284 0"
      rpy="4.5849E-15 3.0683E-08 0.065184" />
    <parent
      link="Middle_Ring_Median-1" />
    <child
      link="Middle_Ring_Distal-1" />
    <axis
      xyz="0 0 1" />
    <limit
      lower="0"
      upper="1.5708"
      effort="10000"
      velocity="100" />
    <dynamics
      damping="0.09"
      friction="0.0"
      />
  </joint>
  <link
    name="dklu-38015-001-1">
    <inertial>
      <origin
        xyz="-0.0102 -0.0015212 -1.2528E-07"
        rpy="0 0 0" />
      <mass
        value="0.0023806" />
      <inertia
        ixx="1.3264E-07"
        ixy="4.184E-08"
        ixz="-1.9193E-12"
        iyy="2.0245E-07"
        iyz="3.0185E-12"
        izz="2.2117E-07" />
    </inertial>
    <visual>
      <origin
        xyz="0 0 0"
        rpy="0 0 0" />
      <geometry>
        <mesh
          filename="package://luke_hand_description/OBJ/dklu-38015-001-1.obj" />
      </geometry>
      <material
        name="">
        <color
          rgba="0.75294 0.75294 0.75294 1" />
      </material>
    </visual>
  </link>
  <joint
    name="middle_cosmesis"
    type="fixed">
    <origin
      xyz="0 0 0"
      rpy="5.20417042793042E-18 0 1.38777878078145E-17" />
    <parent
      link="Middle_Ring_Distal-1" />
    <child
      link="dklu-38015-001-1" />
    <axis
      xyz="0 0 0" />
  </joint>
  <link
    name="Ring_Proximal-1">
    <inertial>
      <origin
        xyz="0.073068 -0.014703 0.011025"
        rpy="0 0 0" />
      <mass
        value="0.0123" />
      <inertia
        ixx="1.23E-05"
        ixy="0"
        ixz="0"
        iyy="1.23E-05"
        iyz="0"
        izz="1.23E-05" />
    </inertial>
    <collision>
      <origin xyz="-0.02 0.0015 -0.0005" rpy="1.36808 -1.50 -1.55"/>
      <geometry>
        <cylinder length="0.05" radius="0.0090"/>
      </geometry>
    </collision>
    <!--
    <visual>
      <origin xyz="0.196826 -0.030547 -0.010923" rpy="1.36808 -0.03651 -1.66632"/>
      <geometry>
        <mesh
          filename="package://luke_hand_description/OBJ/Ring_Proximal-1.obj" />
      </geometry>
      <material
        name="">
        <color
          rgba="0.75294 0.75294 0.75294 1" />
      </material>
    </visual>
    -->
    <visual>
      <origin xyz="0 0 0" rpy="-0.1 -1.5708 0"/>
      <geometry>
        <mesh
          filename="package://luke_hand_description/OBJ/Ring_Proximal.obj" />
      </geometry>
      <material
        name="">
        <color
          rgba="0.75294 0.75294 0.75294 1" />
      </material>
    </visual>
  </link>
  <joint
    name="ring_proximal_flex"
    type="revolute">
    <origin
      xyz="0 0 0"
      rpy="0 0 0" />
      <!-- original, subtrace this from
           middle_proximal_flex and pinky_proximal_flex
      xyz="0.0062467 -0.0076872 0.099967"
      rpy="1.558 1.3505 -2.6305" />
      -->
    <parent
      link="MRP_Differential" />
    <child
      link="Ring_Proximal-1" />
    <axis
      xyz="0 0 1" />
    <limit
      lower="0"
      upper="1.5708"
      effort="10000"
      velocity="100" />
    <dynamics
      damping="0.09"
      friction="0.001"
      />
  </joint>
  <link
    name="Middle_Ring_Median-2">
    <inertial>
      <origin
        xyz="0.11244 -0.0049657 0.011025"
        rpy="0 0 0" />
      <mass
        value="0.0051" />
      <inertia
        ixx="5.1E-06"
        ixy="0"
        ixz="0"
        iyy="5.1E-06"
        iyz="0"
        izz="5.1E-06" />
    </inertial>
    <collision>
      <origin xyz="-0.015 -0.0015 0.0" rpy="1.36808 -1.50 -1.20"/>
      <geometry>
        <cylinder length="0.02" radius="0.0085"/>
      </geometry>
    </collision>
    <!--
    <visual>
      <origin xyz="0.237204 -0.004395 -0.010923" rpy="1.36807 -0.036518 -1.53442"/>
      <geometry>
        <mesh
          filename="package://luke_hand_description/OBJ/Middle_Ring_Median-2.obj" />
      </geometry>
      <material
        name="">
        <color
          rgba="0.75294 0.75294 0.75294 1" />
      </material>
    </visual>
    -->
    <visual>
      <origin xyz="0 -0.001 0" rpy="0.08 -1.5708 0"/>
      <geometry>
        <mesh
          filename="package://luke_hand_description/OBJ/MiddleRing_Median.obj" />
      </geometry>
      <material
        name="">
        <color
          rgba="0.75294 0.75294 0.75294 1" />
      </material>
    </visual>
  </link>
  <joint
    name="ring_median_flex"
    type="revolute">
    <origin
      xyz="-0.037739 0.0050068 0"
      rpy="-3.564E-15 1.6653E-16 -0.1319" />
    <parent
      link="Ring_Proximal-1" />
    <child
      link="Middle_Ring_Median-2" />
    <axis
      xyz="0 0 1" />
    <limit
      lower="0"
      upper="1.5708"
      effort="10000"
      velocity="100" />
    <dynamics
      damping="0.09"
      friction="0.001"
      />
  </joint>
  <link
    name="Middle_Ring_Distal-2">
    <inertial>
      <origin
        xyz="0.13612 -0.017892 0.011025"
        rpy="0 0 0" />
      <mass
        value="0.0035" />
      <inertia
        ixx="3.5E-06"
        ixy="0"
        ixz="0"
        iyy="3.5E-06"
        iyz="0"
        izz="3.5E-06" />
    </inertial>
    <collision>
      <origin xyz="-0.01 -0.0025 -0.0" rpy="1.36808 -1.50 -1.30"/>
      <geometry>
        <cylinder length="0.02" radius="0.008"/>
      </geometry>
    </collision>
    <collision>
      <origin xyz="-0.018 -0.00325 -0.0" rpy="1.36808 -1.50 -1.30"/>
      <geometry>
        <sphere radius="0.0075"/>
      </geometry>
    </collision>
    <collision>
      <origin xyz="-0.019 0.0010 -0.0" rpy="1.36808 -1.50 -2.80"/>
      <geometry>
        <cylinder length="0.0005" radius="0.0075"/>
      </geometry>
    </collision>
    <!--
    <visual>
      <origin xyz="0.260116 -0.031707 -0.010923" rpy="1.36807 -0.036518 -1.64994"/>
      <geometry>
        <mesh
          filename="package://luke_hand_description/OBJ/Middle_Ring_Distal-2.obj" />
      </geometry>
      <material
        name="">
        <color
          rgba="0.75294 0.75294 0.75294 1" />
      </material>
    </visual>
    -->
    <visual>
      <origin xyz="0 0 0" rpy="0.07 -1.5708 0"/>
      <geometry>
        <mesh
          filename="package://luke_hand_description/OBJ/MiddleRing_Distal.obj" />
      </geometry>
      <material
        name="">
        <color
          rgba="0.75294 0.75294 0.75294 1" />
      </material>
    </visual>
    <visual>
      <origin xyz="0 0 0" rpy="0.07 -1.5708 0"/>
      <geometry>
        <mesh
          filename="package://luke_hand_description/OBJ/MiddleRing_Nail.obj" />
      </geometry>
      <material
        name="">
        <color
          rgba="0.75294 0.75294 0.75294 1" />
      </material>
    </visual>
  </link>
  <joint
    name="ring_distal_flex"
    type="revolute">
    <origin
      xyz="-0.024833 -0.0028815 0"
      rpy="7.6328E-17 3.0683E-08 0.11552" />
    <parent
      link="Middle_Ring_Median-2" />
    <child
      link="Middle_Ring_Distal-2" />
    <axis
      xyz="0 0 1" />
    <limit
      lower="0"
      upper="1.5708"
      effort="10000"
      velocity="100" />
    <dynamics
      damping="0.09"
      friction="0.001"
      />
  </joint>
  <link
    name="dklu-38016-001-1">
    <inertial>
      <origin
        xyz="-0.011035 -0.0023855 -7.4384E-07"
        rpy="0 0 0" />
      <mass
        value="0.0021229" />
      <inertia
        ixx="1.1361E-07"
        ixy="2.6668E-08"
        ixz="4.3208E-12"
        iyy="1.5957E-07"
        iyz="4.1285E-12"
        izz="1.7245E-07" />
    </inertial>
    <visual>
      <origin
        xyz="0 0 0"
        rpy="0 0 0" />
      <geometry>
        <mesh
          filename="package://luke_hand_description/OBJ/dklu-38016-001-1.obj" />
      </geometry>
      <material
        name="">
        <color
          rgba="0.75294 0.75294 0.75294 1" />
      </material>
    </visual>
  </link>
  <joint
    name="ring_cosmesis"
    type="fixed">
    <origin
      xyz="0 0 0"
      rpy="-3.46944695195361E-18 0 0" />
    <parent
      link="Middle_Ring_Distal-2" />
    <child
      link="dklu-38016-001-1" />
    <axis
      xyz="0 0 0" />
  </joint>
  <link
    name="Pinky_Proximal-1">
    <inertial>
      <origin
        xyz="0.073989 -0.0089825 0.030025"
        rpy="0 0 0" />
      <mass
        value="0.0102" />
      <inertia
        ixx="1.02E-05"
        ixy="0"
        ixz="0"
        iyy="1.02E-05"
        iyz="0"
        izz="1.02E-05" />
    </inertial>
    <collision>
      <origin xyz="-0.0175 0.0 0.0" rpy="1.36808 -1.50 -1.40"/>
      <geometry>
        <cylinder length="0.025" radius="0.0085"/>
      </geometry>
    </collision>
    <!--
    <visual>
      <origin xyz="0.198604 -0.015175 0.008074" rpy="1.36806 -0.036502 -1.58861"/>
      <geometry>
        <mesh
          filename="package://luke_hand_description/OBJ/Pinky_Proximal-1.obj" />
      </geometry>
      <material
        name="">
        <color
          rgba="0.75294 0.75294 0.75294 1" />
      </material>
    </visual>
    -->
    <visual>
      <origin xyz="0 0 0" rpy="0 -1.5708 0"/>
      <geometry>
        <mesh
          filename="package://luke_hand_description/OBJ/Pinky_Proximal.obj" />
      </geometry>
      <material
        name="">
        <color
          rgba="0.75294 0.75294 0.75294 1" />
      </material>
    </visual>
  </link>
  <joint
    name="pinky_proximal_flex"
    type="revolute">
    <origin
      xyz="1e-06 -1e-06 -0.019001"
      rpy=" -1.1e-05 -1.6e-05 -0.07771" />
    <parent
      link="MRP_Differential" />
    <child
      link="Pinky_Proximal-1" />
    <axis
      xyz="0 0 1" />
    <limit
      lower="0"
      upper="1.5708"
      effort="10000"
      velocity="100" />
    <dynamics
      damping="0.05"
      friction="0.001"
      />
  </joint>
  <link
    name="Pinky_Distal-1">
    <inertial>
      <origin
        xyz="0.10199 -0.0089825 0.030025"
        rpy="0 0 0" />
      <mass
        value="0.0045" />
      <inertia
        ixx="4.5E-06"
        ixy="0"
        ixz="0"
        iyy="4.5E-06"
        iyz="0"
        izz="4.5E-06" />
    </inertial>

    <collision>
      <origin xyz="-0.008 -0.0035 -0.0" rpy="1.36808 -1.50 -1.30"/>
      <geometry>
        <cylinder length="0.019" radius="0.008"/>
      </geometry>
    </collision>
    <collision>
      <origin xyz="-0.025 -0.0075 -0.0" rpy="1.36808 -1.50 -1.15"/>
      <geometry>
        <cylinder length="0.019" radius="0.007"/>
      </geometry>
    </collision>
    <collision>
      <origin xyz="-0.033 -0.01005 -0.0" rpy="1.36808 -1.50 -0.80"/>
      <geometry>
        <sphere radius="0.007"/>
      </geometry>
    </collision>
    <collision>
      <origin xyz="-0.035 -0.0070 -0.0" rpy="1.36808 -1.50 -2.50"/>
      <geometry>
        <cylinder length="0.0005" radius="0.0065"/>
      </geometry>
    </collision>

<!-- for emo's mesh without cosmesis
    <collision>
      <origin xyz="-0.008 -0.0013 -0.0" rpy="1.3 -1.50 -1.30"/>
      <geometry>
        <cylinder length="0.019" radius="0.008"/>
      </geometry>
    </collision>
    <collision>
      <origin xyz="-0.026 -0.0055 -0.0" rpy="1.46808 -1.50 -1.15"/>
      <geometry>
        <cylinder length="0.021" radius="0.006"/>
      </geometry>
    </collision>
    <collision>
      <origin xyz="-0.035 -0.00805 -0.0" rpy="1.36808 -1.50 -0.80"/>
      <geometry>
        <sphere radius="0.0055"/>
      </geometry>
    </collision>
-->


    <!--
    <visual>
      <origin xyz="0.226603 -0.015174 0.008074" rpy="1.36806 -0.036502 -1.58861"/>
      <geometry>
        <mesh
          filename="package://luke_hand_description/OBJ/Pinky_Distal-1.obj" />
      </geometry>
      <material
        name="">
        <color
          rgba="0.75294 0.75294 0.75294 1" />
      </material>
    </visual>
    -->
    <visual>
      <origin xyz="0 0 0" rpy="0.13 -1.5708 0"/>
      <geometry>
        <mesh
          filename="package://luke_hand_description/OBJ/Pinky_Distal0.obj" />
      </geometry>
      <material
        name="">
        <color
          rgba="0.75294 0.75294 0.75294 1" />
      </material>
    </visual>
    <visual>
      <origin xyz="0 0 0" rpy="0.13 -1.5708 0"/>
      <geometry>
        <mesh
          filename="package://luke_hand_description/OBJ/Pinky_Distal1.obj" />
      </geometry>
      <material
        name="">
        <color
          rgba="0.75294 0.75294 0.75294 1" />
      </material>
    </visual>
    <visual>
      <origin xyz="0 0 0" rpy="0.13 -1.5708 0"/>
      <geometry>
        <mesh
          filename="package://luke_hand_description/OBJ/Pinky_Nail.obj" />
      </geometry>
      <material
        name="">
        <color
          rgba="0.75294 0.75294 0.75294 1" />
      </material>
    </visual>
  </link>
  <joint
    name="pinky_distal_flex"
    type="revolute">
    <origin
      xyz="-0.028 0 0"
      rpy="1.7347E-16 -3.8858E-16 -4.4062E-16" />
    <parent
      link="Pinky_Proximal-1" />
    <child
      link="Pinky_Distal-1" />
    <axis
      xyz="0 0 1" />
    <limit
      lower="0"
      upper="1.5708"
      effort="10000"
      velocity="100" />
    <dynamics
      damping="0.05"
      friction="0.001"
      />
  </joint>
  <link
    name="dklu-38017-001-1">
    <inertial>
      <origin
        xyz="-0.018718 -0.0049845 -2.4964E-07"
        rpy="0 0 0" />
      <mass
        value="0.003237" />
      <inertia
        ixx="2.1873E-07"
        ixy="1.2176E-07"
        ixz="9.5436E-12"
        iyy="4.7488E-07"
        iyz="2.3028E-12"
        izz="5.1862E-07" />
    </inertial>
    <visual>
      <origin
        xyz="0 0 0"
        rpy="0 0 0" />
      <geometry>
        <mesh
          filename="package://luke_hand_description/OBJ/dklu-38017-001-1.obj" />
      </geometry>
      <material
        name="">
        <color
          rgba="0.75294 0.75294 0.75294 1" />
      </material>
    </visual>
  </link>
  <joint
    name="pinky_cosmesis"
    type="fixed">
    <origin
      xyz="0 0 0"
      rpy="2.6021E-18 -2.7756E-17 0" />
    <parent
      link="Pinky_Distal-1" />
    <child
      link="dklu-38017-001-1" />
    <axis
      xyz="0 0 0" />
  </joint>

  <gazebo>
    <!-- gearbox needs to work when parent/child is reversed
    <joint name="middle_outer" type="gearbox">
      <parent>Middle_Proximal-1</parent>
      <child>Middle_Ring_Distal-1</child>
      <gearbox_reference_body>Middle_Ring_Median-1</gearbox_reference_body>
      <gearbox_ratio>-1.0</gearbox_ratio>
      <axis>
        <xyz>1 1 1</xyz>
      </axis>
      <axis2>
        <xyz>1 1 1</xyz>
      </axis2>
    </joint>
    <joint name="middle_inner" type="gearbox">
      <parent>MRP_Differential</parent>
      <child>Middle_Ring_Median-1</child>
      <gearbox_ratio>-1.0</gearbox_ratio>
      <gearbox_reference_body>Middle_Proximal-1</gearbox_reference_body>
      <axis>
        <xyz>0.036469 0.978869 0.20121</xyz>
      </axis>
      <axis2>
        <xyz>0.036469 0.978869 0.20121</xyz>
      </axis2>
    </joint>
    -->
  </gazebo>

  <gazebo reference="elbow">
    <implicitSpringDamper>1</implicitSpringDamper>
    <cfm>0.01</cfm>
    <erp>0.0</erp>
    <stopCfm>0.01</stopCfm>
    <stopErp>0.0</stopErp>
  </gazebo>
  <gazebo reference="wrist_rot">
    <implicitSpringDamper>1</implicitSpringDamper>
  </gazebo>
  <gazebo reference="wrist_ab_ad">
    <implicitSpringDamper>1</implicitSpringDamper>
  </gazebo>
  <gazebo reference="wrist_flex">
    <implicitSpringDamper>1</implicitSpringDamper>
  </gazebo>
  <gazebo reference="thumb_yaw">
    <implicitSpringDamper>1</implicitSpringDamper>
    <stopCfm>0.1</stopCfm>
    <stopErp>0.5</stopErp>
  </gazebo>
  <gazebo reference="thumb_pitch">
    <implicitSpringDamper>1</implicitSpringDamper>
    <stopCfm>0.1</stopCfm>
    <stopErp>0.5</stopErp>
  </gazebo>
  <gazebo reference="index_proximal_flex">
    <implicitSpringDamper>1</implicitSpringDamper>
    <stopCfm>0.1</stopCfm>
    <stopErp>0.5</stopErp>
  </gazebo>
  <gazebo reference="index_distal_flex">
    <implicitSpringDamper>1</implicitSpringDamper>
    <stopCfm>0.1</stopCfm>
    <stopErp>0.2</stopErp>
  </gazebo>
  <gazebo reference="mrp_differential_flex">
    <implicitSpringDamper>1</implicitSpringDamper>
    <stopCfm>0.1</stopCfm>
    <stopErp>0.2</stopErp>
    <!-- stiff spring
    <springReference>0</springReference>
    <springStiffness>0.01</springStiffness>
    -->
  </gazebo>
  <gazebo reference="middle_proximal_flex">
    <implicitSpringDamper>1</implicitSpringDamper>
    <stopCfm>0.1</stopCfm>
    <stopErp>0.5</stopErp>
    <springReference>-1.5708</springReference>
    <springStiffness>0.00636619772</springStiffness>
  </gazebo>
  <gazebo reference="middle_median_flex">
    <implicitSpringDamper>1</implicitSpringDamper>
    <stopCfm>0.1</stopCfm>
    <stopErp>0.3</stopErp>
  </gazebo>
  <gazebo reference="middle_distal_flex">
    <implicitSpringDamper>1</implicitSpringDamper>
    <stopCfm>0.1</stopCfm>
    <stopErp>0.2</stopErp>
  </gazebo>
  <gazebo reference="ring_proximal_flex">
    <implicitSpringDamper>1</implicitSpringDamper>
    <stopCfm>0.1</stopCfm>
    <stopErp>0.5</stopErp>
    <springReference>-1.5708</springReference>
    <springStiffness>0.00636619772</springStiffness>
  </gazebo>
  <gazebo reference="ring_median_flex">
    <implicitSpringDamper>1</implicitSpringDamper>
    <stopCfm>0.1</stopCfm>
    <stopErp>0.3</stopErp>
  </gazebo>
  <gazebo reference="ring_distal_flex">
    <implicitSpringDamper>1</implicitSpringDamper>
    <stopCfm>0.1</stopCfm>
    <stopErp>0.2</stopErp>
  </gazebo>
  <gazebo reference="pinky_proximal_flex">
    <implicitSpringDamper>1</implicitSpringDamper>
    <stopCfm>0.1</stopCfm>
    <stopErp>0.5</stopErp>
    <springReference>-1.5708</springReference>
    <springStiffness>0.00636619772</springStiffness>
  </gazebo>
  <gazebo reference="pinky_distal_flex">
    <implicitSpringDamper>1</implicitSpringDamper>
    <stopCfm>0.1</stopCfm>
    <stopErp>0.2</stopErp>
  </gazebo>

  <gazebo reference="WR_Base-1">
    <!-- <selfCollide>1</selfCollide> -->
    <collision>
      <max_contacts>4</max_contacts>
      <surface>
        <contact>
          <ode>
            <kp>1e+06</kp>
            <kd>100</kd>
            <max_vel>100</max_vel>
            <min_depth>0.001</min_depth>
          </ode>
        </contact>
        <friction>
          <ode>
            <mu>1</mu>
            <mu2>1</mu2>
          </ode>
        </friction>
      </surface>
    </collision>
    <visual>
      <material>
        <ambient> 0.5 0.5 0.5 1.0</ambient>
        <diffuse> 0.5 0.5 0.5 1.0</diffuse>
        <specular>0.5 0.5 0.5 0.8</specular>
      </material>
    </visual>
  </gazebo>
  <gazebo reference="WR_Forearm-1">
    <!-- <selfCollide>1</selfCollide> -->
    <collision>
      <max_contacts>4</max_contacts>
      <surface>
        <contact>
          <ode>
            <kp>1e+06</kp>
            <kd>100</kd>
            <max_vel>100</max_vel>
            <min_depth>0.001</min_depth>
          </ode>
        </contact>
        <friction>
          <ode>
            <mu>1</mu>
            <mu2>1</mu2>
          </ode>
        </friction>
      </surface>
    </collision>
    <visual>
      <material>
        <ambient> 0.6 0.6 0.6 1.0</ambient>
        <diffuse> 0.6 0.6 0.6 1.0</diffuse>
        <specular>0.6 0.6 0.6 0.8</specular>
      </material>
    </visual>
  </gazebo>
  <gazebo reference="WFD_Gearbox-1">
    <!-- <selfCollide>1</selfCollide> -->
    <collision>
      <max_contacts>1</max_contacts>
      <surface>
        <contact>
          <ode>
            <kp>1e+06</kp>
            <kd>100</kd>
            <max_vel>100</max_vel>
            <min_depth>0.001</min_depth>
          </ode>
        </contact>
        <friction>
          <ode>
            <mu>1</mu>
            <mu2>1</mu2>
          </ode>
        </friction>
      </surface>
    </collision>
    <visual>
      <material>
        <ambient> 0.4 0.4 0.4 1.0</ambient>
        <diffuse> 0.4 0.4 0.4 1.0</diffuse>
        <specular>0.4 0.4 0.4 0.8</specular>
      </material>
    </visual>
  </gazebo>
  <gazebo reference="Palm-1">
    <!-- <selfCollide>1</selfCollide> -->
    <collision>
      <max_contacts>4</max_contacts>
      <surface>
        <contact>
          <ode>
            <kp>1e+06</kp>
            <kd>100</kd>
            <max_vel>100</max_vel>
            <min_depth>0.001</min_depth>
          </ode>
        </contact>
        <friction>
          <ode>
            <mu>1</mu>
            <mu2>1</mu2>
          </ode>
        </friction>
      </surface>
    </collision>
    <visual>
      <material>
        <ambient> 0.8 0.8 0.8 0.6</ambient>
        <diffuse> 0.8 0.8 0.8 1.0</diffuse>
        <specular>0.8 0.8 0.8 0.3</specular>
      </material>
    </visual>
  </gazebo>
  <gazebo reference="Thumb_Gear-1">
    <!-- <selfCollide>1</selfCollide> -->
    <collision>
      <max_contacts>2</max_contacts>
      <surface>
        <contact>
          <ode>
            <kp>1e+06</kp>
            <kd>100</kd>
            <max_vel>100</max_vel>
            <min_depth>0.001</min_depth>
          </ode>
        </contact>
        <friction>
          <ode>
            <mu>1</mu>
            <mu2>1</mu2>
          </ode>
        </friction>
      </surface>
    </collision>
    <visual>
      <material>
        <ambient> 0.6 0.6 0.6 0.6</ambient>
        <diffuse> 0.6 0.6 0.6 1.0</diffuse>
        <specular>0.6 0.6 0.6 0.3</specular>
      </material>
    </visual>
  </gazebo>
  <gazebo reference="Distal_Thumb-1">
    <selfCollide>1</selfCollide>
    <collision>
      <max_contacts>2</max_contacts>
      <surface>
        <contact>
          <ode>
            <kp>1e+06</kp>
            <kd>100</kd>
            <max_vel>100</max_vel>
            <min_depth>0.001</min_depth>
          </ode>
        </contact>
        <friction>
          <ode>
            <mu>1</mu>
            <mu2>1</mu2>
          </ode>
        </friction>
      </surface>
    </collision>
    <visual>
      <material>
        <ambient> 0.7 0.7 0.7 0.6</ambient>
        <diffuse> 0.7 0.7 0.7 1.0</diffuse>
        <specular>0.7 0.7 0.7 0.3</specular>
      </material>
    </visual>
  </gazebo>
  <gazebo reference="dklu-38013-001">
    <selfCollide>1</selfCollide>
    <collision>
      <max_contacts>2</max_contacts>
      <surface>
        <contact>
          <poissons_ratio>0.495</poissons_ratio>
          <elastic_modulus>610000.0</elastic_modulus>
          <ode>
            <kp>1e+06</kp>
            <kd>100</kd>
            <max_vel>100</max_vel>
            <min_depth>0.001</min_depth>
          </ode>
        </contact>
        <friction>
          <torsional>
            <coefficient>1.0</coefficient>
            <use_patch_radius>0</use_patch_radius>
            <surface_radius>0.0072</surface_radius>
          </torsional>
          <ode>
            <mu>1</mu>
            <mu2>1</mu2>
          </ode>
        </friction>
      </surface>
    </collision>
    <visual>
      <material>
        <ambient> 0.8 0.8 0.8 0.1</ambient>
        <diffuse> 0.8 0.8 0.8 1.0</diffuse>
        <specular>0.8 0.8 0.8 0.1</specular>
      </material>
    </visual>
  </gazebo>
  <gazebo reference="Index_Proximal-1">
    <selfCollide>1</selfCollide>
    <collision>
      <max_contacts>2</max_contacts>
      <surface>
        <contact>
          <ode>
            <kp>1e+06</kp>
            <kd>100</kd>
            <max_vel>100</max_vel>
            <min_depth>0.001</min_depth>
          </ode>
        </contact>
        <friction>
          <ode>
            <mu>1</mu>
            <mu2>1</mu2>
          </ode>
        </friction>
      </surface>
    </collision>
    <visual>
      <material>
        <ambient> 0.7 0.7 0.7 0.8</ambient>
        <diffuse> 0.7 0.7 0.7 1.0</diffuse>
        <specular>0.7 0.7 0.7 0.1</specular>
      </material>
    </visual>
  </gazebo>
  <gazebo reference="Index_Distal-1">
    <selfCollide>1</selfCollide>
    <collision>
      <max_contacts>2</max_contacts>
      <surface>
        <contact>
          <ode>
            <kp>1e+06</kp>
            <kd>100</kd>
            <max_vel>100</max_vel>
            <min_depth>0.001</min_depth>
          </ode>
        </contact>
        <friction>
          <ode>
            <mu>1</mu>
            <mu2>1</mu2>
          </ode>
        </friction>
      </surface>
    </collision>
    <visual>
      <material>
        <ambient> 0.7 0.7 0.7 0.8</ambient>
        <diffuse> 0.7 0.7 0.7 1.0</diffuse>
        <specular>0.7 0.7 0.7 0.1</specular>
      </material>
    </visual>
  </gazebo>
  <gazebo reference="dklu-38014-0011-1">
    <selfCollide>1</selfCollide>
    <collision>
      <max_contacts>1</max_contacts>
      <surface>
        <contact>
          <poissons_ratio>0.495</poissons_ratio>
          <elastic_modulus>610000.0</elastic_modulus>
          <ode>
            <kp>1e+06</kp>
            <kd>100</kd>
            <max_vel>100</max_vel>
            <min_depth>0.001</min_depth>
          </ode>
        </contact>
        <friction>
          <torsional>
            <coefficient>1.0</coefficient>
            <use_patch_radius>0</use_patch_radius>
            <surface_radius>0.0072</surface_radius>
          </torsional>
          <ode>
            <mu>1</mu>
            <mu2>1</mu2>
          </ode>
        </friction>
      </surface>
    </collision>
    <visual>
      <material>
        <ambient> 0.8 0.8 0.8 0.1</ambient>
        <diffuse> 0.8 0.8 0.8 1.0</diffuse>
        <specular>0.8 0.8 0.8 0.1</specular>
      </material>
    </visual>
  </gazebo>
  <gazebo reference="Middle_Proximal-1">
    <selfCollide>1</selfCollide>
    <collision>
      <max_contacts>2</max_contacts>
      <surface>
        <contact>
          <ode>
            <kp>1e+06</kp>
            <kd>100</kd>
            <max_vel>100</max_vel>
            <min_depth>0.001</min_depth>
          </ode>
        </contact>
        <friction>
          <ode>
            <mu>1</mu>
            <mu2>1</mu2>
          </ode>
        </friction>
      </surface>
    </collision>
    <visual>
      <material>
        <ambient> 0.6 0.6 0.6 0.8</ambient>
        <diffuse> 0.6 0.6 0.6 1.0</diffuse>
        <specular>0.6 0.6 0.6 0.1</specular>
      </material>
    </visual>
  </gazebo>
  <gazebo reference="Middle_Ring_Median-1">
    <selfCollide>1</selfCollide>
    <collision>
      <max_contacts>2</max_contacts>
      <surface>
        <contact>
          <ode>
            <kp>1e+06</kp>
            <kd>100</kd>
            <max_vel>100</max_vel>
            <min_depth>0.001</min_depth>
          </ode>
        </contact>
        <friction>
          <ode>
            <mu>1</mu>
            <mu2>1</mu2>
          </ode>
        </friction>
      </surface>
    </collision>
    <visual>
      <material>
        <ambient> 0.5 0.5 0.5 0.8</ambient>
        <diffuse> 0.5 0.5 0.5 1.0</diffuse>
        <specular>0.5 0.5 0.5 0.1</specular>
      </material>
    </visual>
  </gazebo>
  <gazebo reference="Middle_Ring_Distal-1">
    <selfCollide>1</selfCollide>
    <collision>
      <max_contacts>2</max_contacts>
      <surface>
        <contact>
          <ode>
            <kp>1e+06</kp>
            <kd>100</kd>
            <max_vel>100</max_vel>
            <min_depth>0.001</min_depth>
          </ode>
        </contact>
        <friction>
          <ode>
            <mu>1</mu>
            <mu2>1</mu2>
          </ode>
        </friction>
      </surface>
    </collision>
    <visual>
      <material>
        <ambient> 0.7 0.7 0.7 0.8</ambient>
        <diffuse> 0.7 0.7 0.7 1.0</diffuse>
        <specular>0.7 0.7 0.7 0.1</specular>
      </material>
    </visual>
  </gazebo>
  <gazebo reference="dklu-38015-001-1">
    <selfCollide>1</selfCollide>
    <collision>
      <max_contacts>1</max_contacts>
      <surface>
        <contact>
          <poissons_ratio>0.495</poissons_ratio>
          <elastic_modulus>610000.0</elastic_modulus>
          <ode>
            <kp>1e+06</kp>
            <kd>100</kd>
            <max_vel>100</max_vel>
            <min_depth>0.001</min_depth>
          </ode>
        </contact>
        <friction>
          <torsional>
            <coefficient>1.0</coefficient>
            <use_patch_radius>0</use_patch_radius>
            <surface_radius>0.0072</surface_radius>
          </torsional>
          <ode>
            <mu>1</mu>
            <mu2>1</mu2>
          </ode>
        </friction>
      </surface>
    </collision>
    <visual>
      <material>
        <ambient> 0.8 0.8 0.8 0.1</ambient>
        <diffuse> 0.8 0.8 0.8 1.0</diffuse>
        <specular>0.8 0.8 0.8 0.1</specular>
      </material>
    </visual>
  </gazebo>
  <gazebo reference="Ring_Proximal-1">
    <selfCollide>1</selfCollide>
    <collision>
      <max_contacts>2</max_contacts>
      <surface>
        <contact>
          <ode>
            <kp>1e+06</kp>
            <kd>100</kd>
            <max_vel>100</max_vel>
            <min_depth>0.001</min_depth>
          </ode>
        </contact>
        <friction>
          <ode>
            <mu>1</mu>
            <mu2>1</mu2>
          </ode>
        </friction>
      </surface>
    </collision>
    <visual>
      <material>
        <ambient> 0.7 0.7 0.7 0.8</ambient>
        <diffuse> 0.7 0.7 0.7 1.0</diffuse>
        <specular>0.7 0.7 0.7 0.1</specular>
      </material>
    </visual>
  </gazebo>
  <gazebo reference="Middle_Ring_Median-2">
    <selfCollide>1</selfCollide>
    <collision>
      <max_contacts>2</max_contacts>
      <surface>
        <contact>
          <ode>
            <kp>1e+06</kp>
            <kd>100</kd>
            <max_vel>100</max_vel>
            <min_depth>0.001</min_depth>
          </ode>
        </contact>
        <friction>
          <ode>
            <mu>1</mu>
            <mu2>1</mu2>
          </ode>
        </friction>
      </surface>
    </collision>
    <visual>
      <material>
        <ambient> 0.6 0.6 0.6 0.8</ambient>
        <diffuse> 0.6 0.6 0.6 1.0</diffuse>
        <specular>0.6 0.6 0.6 0.1</specular>
      </material>
    </visual>
  </gazebo>
  <gazebo reference="Middle_Ring_Distal-2">
    <selfCollide>1</selfCollide>
    <collision>
      <max_contacts>2</max_contacts>
      <surface>
        <contact>
          <ode>
            <kp>1e+06</kp>
            <kd>100</kd>
            <max_vel>100</max_vel>
            <min_depth>0.001</min_depth>
          </ode>
        </contact>
        <friction>
          <ode>
            <mu>1</mu>
            <mu2>1</mu2>
          </ode>
        </friction>
      </surface>
    </collision>
    <visual>
      <material>
        <ambient> 0.7 0.7 0.7 0.8</ambient>
        <diffuse> 0.7 0.7 0.7 1.0</diffuse>
        <specular>0.7 0.7 0.7 0.1</specular>
      </material>
    </visual>
  </gazebo>
  <gazebo reference="dklu-38016-001-1">
    <selfCollide>1</selfCollide>
    <collision>
      <max_contacts>1</max_contacts>
      <surface>
        <contact>
          <poissons_ratio>0.495</poissons_ratio>
          <elastic_modulus>610000.0</elastic_modulus>
          <ode>
            <kp>1e+06</kp>
            <kd>100</kd>
            <max_vel>100</max_vel>
            <min_depth>0.001</min_depth>
          </ode>
        </contact>
        <friction>
          <torsional>
            <coefficient>1.0</coefficient>
            <use_patch_radius>0</use_patch_radius>
            <surface_radius>0.0072</surface_radius>
          </torsional>
          <ode>
            <mu>1</mu>
            <mu2>1</mu2>
          </ode>
        </friction>
      </surface>
    </collision>
    <visual>
      <material>
        <ambient> 0.8 0.8 0.8 0.1</ambient>
        <diffuse> 0.8 0.8 0.8 1.0</diffuse>
        <specular>0.8 0.8 0.8 0.1</specular>
      </material>
    </visual>
  </gazebo>
  <gazebo reference="Pinky_Proximal-1">
    <selfCollide>1</selfCollide>
    <collision>
      <max_contacts>2</max_contacts>
      <surface>
        <contact>
          <ode>
            <kp>1e+06</kp>
            <kd>100</kd>
            <max_vel>100</max_vel>
            <min_depth>0.001</min_depth>
          </ode>
        </contact>
        <friction>
          <ode>
            <mu>1</mu>
            <mu2>1</mu2>
          </ode>
        </friction>
      </surface>
    </collision>
    <visual>
      <material>
        <ambient> 0.6 0.6 0.6 0.8</ambient>
        <diffuse> 0.6 0.6 0.6 1.0</diffuse>
        <specular>0.6 0.6 0.6 0.1</specular>
      </material>
    </visual>
  </gazebo>
  <gazebo reference="Pinky_Distal-1">
    <selfCollide>1</selfCollide>
    <collision>
      <max_contacts>2</max_contacts>
      <surface>
        <contact>
          <ode>
            <kp>1e+06</kp>
            <kd>100</kd>
            <max_vel>100</max_vel>
            <min_depth>0.001</min_depth>
          </ode>
        </contact>
        <friction>
          <ode>
            <mu>1</mu>
            <mu2>1</mu2>
          </ode>
        </friction>
      </surface>
    </collision>
    <visual>
      <material>
        <ambient> 0.7 0.7 0.7 0.8</ambient>
        <diffuse> 0.7 0.7 0.7 1.0</diffuse>
        <specular>0.7 0.7 0.7 0.1</specular>
      </material>
    </visual>
  </gazebo>
  <gazebo reference="dklu-38017-001-1">
    <selfCollide>1</selfCollide>
    <collision>
      <max_contacts>1</max_contacts>
      <surface>
        <contact>
          <poissons_ratio>0.495</poissons_ratio>
          <elastic_modulus>610000.0</elastic_modulus>
          <ode>
            <kp>1e+06</kp>
            <kd>100</kd>
            <max_vel>100</max_vel>
            <min_depth>0.001</min_depth>
          </ode>
        </contact>
        <friction>
          <torsional>
            <coefficient>1.0</coefficient>
            <use_patch_radius>0</use_patch_radius>
            <surface_radius>0.0072</surface_radius>
          </torsional>
          <ode>
            <mu>1</mu>
            <mu2>1</mu2>
          </ode>
        </friction>
      </surface>
    </collision>
    <visual>
      <material>
        <ambient> 0.8 0.8 0.8 0.1</ambient>
        <diffuse> 0.8 0.8 0.8 1.0</diffuse>
        <specular>0.8 0.8 0.8 0.1</specular>
      </material>
    </visual>
  </gazebo>

  <gazebo reference="Distal_Thumb-1">
    <sensor name='thumb_distal_ulnar_contact_sensor' type='contact'>
      <always_on>1</always_on>
      <contact>
        <!-- these collision names make more sense after parsing to SDF -->
        <!--<collision>Distal_Thumb-1_collision</collision>-->
        <collision>Distal_Thumb-1_collision_11</collision>
        <topic>Distal_Ulnar_Thumb-1_collision</topic>
      </contact>
    </sensor>
    <sensor name='thumb_distal_dorsal_contact_sensor' type='contact'>
      <always_on>1</always_on>
      <contact>
        <!-- these collision names make more sense after parsing to SDF -->
        <collision>Distal_Thumb-1_collision_7</collision>
        <topic>Distal_Dorsal_Thumb-1_collision</topic>
      </contact>
    </sensor>
    <sensor name='thumb_distal_contact_sensor' type='contact'>
      <always_on>1</always_on>
      <contact>
        <!-- these collision names make more sense after parsing to SDF -->
        <collision>Distal_Thumb-1_collision_9</collision>
        <collision>Distal_Thumb-1_collision_10</collision>
        <topic>Distal_Thumb-1_collision</topic>
      </contact>
    </sensor>
    <sensor name='thumb_distal_side_contact_sensor' type='contact'>
      <always_on>1</always_on>
      <contact>
        <!-- these collision names make more sense after parsing to SDF -->
        <collision>Distal_Thumb-1_collision_12</collision> <!-- extend copied to side-->
        <!--<collision>Distal_Thumb-1_collision_9</collision>  extend copied to side-->
        <topic>Distal_Thumb-1_side_collision</topic>
      </contact>
    </sensor>
    <sensor name='Distal_Thumb-1_imu_sensor' type='imu'>
      <pose>0 0 0  1.570796 -1.570796 0</pose>
      <always_on>1</always_on>
      <update_rate>1000</update_rate>
      <imu>
        <noise>
          <type>gaussian</type>
          <rate>
            <mean>0</mean>
            <stddev>0.0002</stddev>
            <bias_mean>7.5e-06</bias_mean>
            <bias_stddev>8e-07</bias_stddev>
          </rate>
          <accel>
            <mean>0</mean>
            <stddev>0.017</stddev>
            <bias_mean>0.1</bias_mean>
            <bias_stddev>0.001</bias_stddev>
          </accel>
        </noise>
      </imu>
    </sensor>
  </gazebo>
  <gazebo reference="Index_Proximal-1">
    <sensor name='index_proximal_contact_sensor' type='contact'>
      <always_on>1</always_on>
      <contact>
        <!-- these collision names make more sense after parsing to SDF -->
        <collision>Index_Proximal-1_collision</collision>
        <topic>Index_Proximal-1_collision</topic>
      </contact>
    </sensor>
  </gazebo>
  <gazebo reference="Index_Distal-1">
    <sensor name='index_distal_contact_sensor' type='contact'>
      <always_on>1</always_on>
      <contact>
        <!-- these collision names make more sense after parsing to SDF -->
        <collision>Index_Distal-1_collision</collision>
        <collision>Index_Distal-1_collision_1</collision>
        <collision>Index_Distal-1_collision_2</collision> <!-- extend -->
        <topic>Index_Distal-1_collision</topic>
      </contact>
    </sensor>
  </gazebo>
  <gazebo reference="Index_Distal-1">
    <sensor name='index_distal_side_contact_sensor' type='contact'>
      <always_on>1</always_on>
      <contact>
        <!-- these collision names make more sense after parsing to SDF -->
        <collision>Index_Distal-1_collision_4</collision> <!-- extend copied -->
        <topic>Index_Distal-1_side_collision</topic>
      </contact>
    </sensor>
  </gazebo>
  <gazebo reference="Middle_Proximal-1">
    <sensor name='middle_proximal_contact_sensor' type='contact'>
      <always_on>1</always_on>
      <contact>
        <!-- these collision names make more sense after parsing to SDF -->
        <collision>Middle_Proximal-1_collision</collision>
        <topic>Middle_Proximal-1_collision</topic>
      </contact>
    </sensor>
  </gazebo>
  <gazebo reference="Middle_Ring_Median-1">
    <sensor name='middle_median_contact_sensor' type='contact'>
      <always_on>1</always_on>
      <contact>
        <!-- these collision names make more sense after parsing to SDF -->
        <collision>Middle_Ring_Median-1_collision</collision>
        <topic>Middle_Ring_Median-1_collision</topic>
      </contact>
    </sensor>
  </gazebo>
  <gazebo reference="Middle_Ring_Distal-1">
    <sensor name='middle_distal_contact_sensor' type='contact'>
      <always_on>1</always_on>
      <contact>
        <!-- these collision names make more sense after parsing to SDF -->
        <collision>Middle_Ring_Distal-1_collision</collision>
        <collision>Middle_Ring_Distal-1_collision_1</collision>
        <collision>Middle_Ring_Distal-1_collision_2</collision>
        <topic>Middle_Ring_Distal-1_collision</topic>
      </contact>
    </sensor>
  </gazebo>

  <gazebo reference="Ring_Proximal-1">
    <sensor name='ring_proximal_contact_sensor' type='contact'>
      <always_on>1</always_on>
      <contact>
        <!-- these collision names make more sense after parsing to SDF -->
        <collision>Ring_Proximal-1_collision</collision>
        <topic>Ring_Proximal-1_collision</topic>
      </contact>
    </sensor>
  </gazebo>
  <gazebo reference="Middle_Ring_Median-2">
    <sensor name='ring_median_contact_sensor' type='contact'>
      <always_on>1</always_on>
      <contact>
        <!-- these collision names make more sense after parsing to SDF -->
        <collision>Middle_Ring_Median-2_collision</collision>
        <topic>Middle_Ring_Median-2_collision</topic>
      </contact>
    </sensor>
  </gazebo>
  <gazebo reference="Middle_Ring_Distal-2">
    <sensor name='ring_distal_contact_sensor' type='contact'>
      <always_on>1</always_on>
      <contact>
        <!-- these collision names make more sense after parsing to SDF -->
        <collision>Middle_Ring_Distal-2_collision</collision>
        <collision>Middle_Ring_Distal-2_collision_1</collision>
        <collision>Middle_Ring_Distal-2_collision_2</collision>
        <topic>Middle_Ring_Distal-2_collision</topic>
      </contact>
    </sensor>
  </gazebo>

  <gazebo reference="Pinky_Proximal-1">
    <sensor name='pinky_proximal_contact_sensor' type='contact'>
      <always_on>1</always_on>
      <contact>
        <!-- these collision names make more sense after parsing to SDF -->
        <collision>Pinky_Proximal-1_collision</collision>
        <topic>Pinky_Proximal-1_collision</topic>
      </contact>
    </sensor>
  </gazebo>
  <gazebo reference="Pinky_Distal-1">
    <sensor name='pinky_distal_contact_sensor' type='contact'>
      <always_on>1</always_on>
      <contact>
        <!-- these collision names make more sense after parsing to SDF -->
        <collision>Pinky_Distal-1_collision</collision>
        <collision>Pinky_Distal-1_collision_1</collision>
        <collision>Pinky_Distal-1_collision_2</collision>
        <topic>Pinky_Distal-1_collision</topic>
      </contact>
    </sensor>
  </gazebo>
  <gazebo reference="Palm-1">
    <sensor name='palm_front_distal_contact_sensor' type='contact'>
      <always_on>1</always_on>
      <contact>
        <!-- these collision names make more sense after parsing to SDF -->
        <collision>Palm-1_collision_1</collision>
        <topic>Palm-1_collision</topic>
      </contact>
    </sensor>
    <sensor name='palm_front_proximal_contact_sensor' type='contact'>
      <always_on>1</always_on>
      <contact>
        <!-- these collision names make more sense after parsing to SDF -->
        <collision>Palm-1_collision_8</collision>
        <topic>Palm-1_collision_proximal</topic>
      </contact>
    </sensor>
    <sensor name='palm_inside_contact_sensor' type='contact'>
      <always_on>1</always_on>
      <contact>
        <!-- these collision names make more sense after parsing to SDF -->
        <collision>Palm-1_collision_3</collision>
        <topic>Palm-1_collision_inside</topic>
      </contact>
    </sensor>
    <sensor name='palm_outside_contact_sensor' type='contact'>
      <always_on>1</always_on>
      <contact>
        <!-- these collision names make more sense after parsing to SDF -->
        <collision>Palm-1_collision_2</collision>
        <topic>Palm-1_collision_outside</topic>
      </contact>
    </sensor>
    <sensor name='palm_back_contact_sensor' type='contact'>
      <always_on>1</always_on>
      <contact>
        <!-- these collision names make more sense after parsing to SDF -->
        <collision>Palm-1_collision</collision>
        <topic>Palm-1_collision</topic>
      </contact>
    </sensor>
  </gazebo>

  <!-- Model SDF copied from gazebo_models
  <gazebo>
    <joint name='elbow' type='revolute'>
      <child>WR_Base-1</child>
      <parent>world</parent>
      <axis>
        <xyz>0 0 1.0</xyz>
        <limit>
          <lower>0</lower>
          <upper>0</upper>
          <effort>10000</effort>
          <velocity>-1</velocity>
        </limit>
        <dynamics>
          <damping>2</damping>
          <friction>0</friction>
          <spring_reference>0</spring_reference>
          <spring_stiffness>0</spring_stiffness>
        </dynamics>
        <use_parent_model_frame>1</use_parent_model_frame>
      </axis>
      <physics>
        <provide_feedback>1</provide_feedback>
        <ode>
          <provide_feedback>1</provide_feedback>
          <implicit_spring_damper>1</implicit_spring_damper>
          <cfm_damping>1</cfm_damping>
          <limit>
            <cfm>0.01</cfm>
            <erp>0</erp>
          </limit>
        </ode>
      </physics>
    </joint>
  </gazebo>
  -->

  <gazebo>
    <plugin filename="libHaptixControlPlugin.so" name="HaptixControlPlugin">
      <update_rate>100</update_rate>
      <spacenav_control_point_offset>0 0.0 0.4 0 0 3.1416</spacenav_control_point_offset>
      <hydra_control_point_offset>0 -0.3 0 0 3.1416 -1.5707</hydra_control_point_offset>
      <optitrack_head_to_marker_offset>0 0 0 0 1.5707 0</optitrack_head_to_marker_offset>
      <!-- below sets the right pose for polhemus wrist sensor so that the sensor is below the wrist and the cable runs from the sensor towards the user -->
      <base_link_to_arm_sensor_pose>0 0 0 0 -1.5708 0</base_link_to_arm_sensor_pose>
      <base_joint>elbow</base_joint>
      <!-- elbow rpy="1.5708 1.5708 0" -->
      <base_link>WR_Base-1</base_link>
      <base_link_sensor_offset>-0.0 0 0.10 -1.570796 3.14159 0</base_link_sensor_offset>
      <world_screen_location>0 -0.65 1.5 0 0 0</world_screen_location>
      <base_pid_pos cmd_max="10000.0" cmd_min="-10000.0" d="100.0" i="0" p="2000.0"/>
      <base_pid_rot cmd_max="10000.0" cmd_min="-10000.0" d="50.0" i="0" p="1500.0"/>
      <!-- order must match hxAPLJoints enumeration -->
      <joint id="0">wrist_rot</joint>
      <joint id="1">wrist_ab_ad</joint>
      <joint id="2">wrist_flex</joint>
      <joint id="3">thumb_yaw</joint>
      <joint id="4">thumb_pitch</joint>
      <joint id="5">index_proximal_flex</joint>
      <joint id="6">index_distal_flex</joint>
      <joint id="7">mrp_differential_flex</joint>
      <!-- sim_only joints are sim internal, not offered through the haptix-api
           joint_pos and joint_vel -->
      <joint id="8" sim_only="1">middle_proximal_flex</joint>
      <joint id="9" sim_only="1">middle_median_flex</joint>
      <joint id="10" sim_only="1">middle_distal_flex</joint>
      <joint id="11" sim_only="1">ring_proximal_flex</joint>
      <joint id="12" sim_only="1">ring_median_flex</joint>
      <joint id="13" sim_only="1">ring_distal_flex</joint>
      <joint id="14" sim_only="1">pinky_proximal_flex</joint>
      <joint id="15" sim_only="1">pinky_distal_flex</joint>
      <pid cmd_max=" 500.0" cmd_min=" -500.0" d="0" i="0" id="0"  p=" 100.0"/>
      <pid cmd_max=" 500.0" cmd_min=" -500.0" d="0" i="0" id="1"  p=" 100.0"/>
      <pid cmd_max=" 500.0" cmd_min=" -500.0" d="0" i="0" id="2"  p=" 100.0"/>
      <pid cmd_max=" 500.0" cmd_min=" -500.0" d="0" i="0" id="3"  p=" 100.0"/>
      <pid cmd_max=" 500.0" cmd_min=" -500.0" d="0" i="0" id="4"  p=" 100.0"/>
      <pid cmd_max=" 500.0" cmd_min=" -500.0" d="0" i="0" id="5"  p=" 100.0"/>
      <pid cmd_max=" 500.0" cmd_min=" -500.0" d="0" i="0" id="6"  p=" 100.0"/>
      <pid cmd_max=" 500.0" cmd_min=" -500.0" d="0" i="0" id="7"  p=" 100.0"/>
      <pid cmd_max=" 500.0" cmd_min=" -500.0" d="0" i="0" id="8"  p=" 100.0"/>
      <pid cmd_max=" 500.0" cmd_min=" -500.0" d="0" i="0" id="9"  p=" 100.0"/>
      <pid cmd_max=" 500.0" cmd_min=" -500.0" d="0" i="0" id="10" p=" 100.0"/>
      <pid cmd_max=" 500.0" cmd_min=" -500.0" d="0" i="0" id="11" p=" 100.0"/>
      <pid cmd_max=" 500.0" cmd_min=" -500.0" d="0" i="0" id="12" p=" 100.0"/>
      <pid cmd_max=" 500.0" cmd_min=" -500.0" d="0" i="0" id="13" p=" 100.0"/>
      <pid cmd_max=" 500.0" cmd_min=" -500.0" d="0" i="0" id="14" p=" 100.0"/>
      <pid cmd_max=" 500.0" cmd_min=" -500.0" d="0" i="0" id="15" p=" 100.0"/>

      <!--
      <joint joint="middleProximal" coef="0.25"/>
      <joint joint="middleMedian"   coef="0.125"/>
      <joint joint="middleDistal"   coef="0.125"/>
      <joint joint="ringProximal"   coef="0.125"/>
      <joint joint="ringMedian"     coef="0.0625"/>
      <joint joint="ringDistal"     coef="0.0625"/>
      <joint joint="littleProximal" coef="0.125"/>
      <joint joint="littleDistal"   coef="0.125"/>
      -->
      <motor id="0" name="motor_wrist_rot">
        <powered_motor_joint>wrist_rot</powered_motor_joint>
        <motor_torque>1.0</motor_torque>
        <gear_ratio>57.2957795131</gear_ratio>
        <encoder_offset>0.0</encoder_offset>
        <clutch>false</clutch>
      </motor>
      <motor id="1" name="motor_wrist_flex">
        <powered_motor_joint>wrist_flex</powered_motor_joint>
        <!-- wrist motor torque unknown, guessing for now -->
        <motor_torque>1.0</motor_torque>
        <gear_ratio>57.2957795131</gear_ratio>
        <encoder_offset>0.0</encoder_offset>
        <gearbox>
          <joint>wrist_ab_ad</joint>
          <offset>0</offset>
          <multiplier1>-0.0</multiplier1>
          <multiplier2>0.0</multiplier2>
        </gearbox>
        <clutch>false</clutch>
      </motor>
      <motor id="2" name="motor_thumb_yaw">
        <powered_motor_joint>thumb_yaw</powered_motor_joint>
        <!-- wrist motor torque unknown, guessing for now -->
        <motor_torque>0.01745329151</motor_torque>
        <gear_ratio>57.2957795131</gear_ratio>
        <encoder_offset>0.0</encoder_offset>
        <clutch>true</clutch>
      </motor>
      <motor id="3" name="motor_thumb_pitch">
        <powered_motor_joint>thumb_pitch</powered_motor_joint>
        <motor_torque>0.01745329151</motor_torque>
        <gear_ratio>57.2957795131</gear_ratio>
        <encoder_offset>0.0</encoder_offset>
        <clutch>true</clutch>
      </motor>
      <motor id="4" name="motor_index_proximal_flex">
        <powered_motor_joint>index_proximal_flex</powered_motor_joint>
        <motor_torque>0.01745329151</motor_torque>
        <gear_ratio>57.2957795131</gear_ratio>
        <encoder_offset>0.0</encoder_offset>
        <gearbox>
          <joint>index_distal_flex</joint>
          <offset>0</offset>
          <multiplier1>1.0</multiplier1>
          <multiplier2>1.0</multiplier2>
        </gearbox>
        <clutch>true</clutch>
      </motor>

      <!-- Share multiplier * actuator effort to this joint.
           Effort based controller, not position controlled.
           Total torque is distributed between
             - <powered_motor_joint> with weight of 1.0.
             - <effort_differential> joint with weight specified by
               <multiplier>.
           Total torque on motor joint is:
             1 /
             (1 + sum( effort_differential/multiplier ))
           Total torque on any differential joint is:
             effort_differential/multiplier /
             (1 + sum( effort_differential/multiplier ))
      -->
      <motor id="5" name="motor_mrp_differential_flex">
        <powered_motor_joint>mrp_differential_flex</powered_motor_joint>
        <motor_torque>0.01745329151</motor_torque>
        <gear_ratio>57.2957795131</gear_ratio>
        <encoder_offset>0.0</encoder_offset>
        <gearbox>
          <joint>middle_median_flex</joint>
          <reference_joint>mrp_differential_flex</reference_joint>
          <offset>0</offset>
          <multiplier1>1.0</multiplier1>
          <multiplier2>1.0</multiplier2>
        </gearbox>
        <gearbox>
          <joint>middle_distal_flex</joint>
          <reference_joint>mrp_differential_flex</reference_joint>
          <offset>0</offset>
          <multiplier1>1.0</multiplier1>
          <multiplier2>1.0</multiplier2>
        </gearbox>
        <gearbox>
          <joint>ring_median_flex</joint>
          <reference_joint>mrp_differential_flex</reference_joint>
          <offset>0</offset>
          <multiplier1>1.0</multiplier1>
          <multiplier2>1.0</multiplier2>
        </gearbox>
        <gearbox>
          <joint>ring_distal_flex</joint>
          <reference_joint>mrp_differential_flex</reference_joint>
          <offset>0</offset>
          <multiplier1>1.0</multiplier1>
          <multiplier2>1.0</multiplier2>
        </gearbox>
        <gearbox>
          <joint>pinky_distal_flex</joint>
          <reference_joint>mrp_differential_flex</reference_joint>
          <offset>0</offset>
          <multiplier1>1.0</multiplier1>
          <multiplier2>1.0</multiplier2>
        </gearbox>
        <clutch>true</clutch>
      </motor>

      <contactSensor id="0">palm_front_distal_contact_sensor</contactSensor>
      <contactSensor id="1">palm_back_contact_sensor</contactSensor>
      <contactSensor id="2">palm_front_proximal_contact_sensor</contactSensor>
      <contactSensor id="3">palm_outside_contact_sensor</contactSensor>
<!--
      <contactSensor id="10">thumb_proximal_contact_sensor</contactSensor>
      <contactSensor id="11">thumb_medial_contact_sensor</contactSensor>
-->
      <contactSensor id="4">thumb_distal_contact_sensor</contactSensor>
      <contactSensor id="5">thumb_distal_side_contact_sensor</contactSensor>
<!--
      <contactSensor id="12">index_proximal_contact_sensor</contactSensor>
-->
      <contactSensor id="6">index_distal_contact_sensor</contactSensor>
      <contactSensor id="7">index_distal_side_contact_sensor</contactSensor>
<!--
      <contactSensor id="13">middle_proximal_contact_sensor</contactSensor>
      <contactSensor id="14">middle_median_contact_sensor</contactSensor>
-->
      <contactSensor id="8">middle_distal_contact_sensor</contactSensor>
<!--
      <contactSensor id="14">ring_proximal_contact_sensor</contactSensor>
      <contactSensor id="15">ring_median_contact_sensor</contactSensor>
-->
      <contactSensor id="9">ring_distal_contact_sensor</contactSensor>
<!--
      <contactSensor id="16">pinky_proximal_contact_sensor</contactSensor>
-->
      <contactSensor id="10">pinky_distal_contact_sensor</contactSensor>
      <contactSensor id="11">thumb_distal_ulnar_contact_sensor</contactSensor>
      <contactSensor id="12">thumb_distal_dorsal_contact_sensor</contactSensor>

      <!-- do these exist on luke hand? -->
      <imuSensor id="0">Distal_Thumb-1_imu_sensor</imuSensor>
      <!-- <imuSensor id="1">Index_Distal-1_imu_sensor</imuSensor> -->

      <grasp name="2Pinch">
        <point>
          <inputs>0.2 0.2  0.2  0.2 0.2 0.2</inputs>
          <motors>0.0 0.0 -40.11 92.30 0.0 0.0</motors>
        </point>
        <point>
          <inputs>0.5 0.5  0.5 0.5 0.5 0.5</inputs>
          <motors>0.0 0.0 74.48 92.30 57.30 0.0</motors>
        </point>
        <point>
          <inputs>1.0 1.0  1.0 1.0 1.0 1.0</inputs>
          <motors>0.0 0.0 114.59 92.30 114.59 0.0</motors>
        </point>
      </grasp>
      <grasp name="Cylindrical">
        <point>
          <inputs>0.2 0.2  0.2 0.2  0.2 0.2</inputs>
          <motors>0.0 0.0 0.0 109.48 0.0 0.0</motors>
        </point>
        <point>
          <inputs>1.0 1.0 1.0 1.0  1.0 1.0</inputs>
          <motors>0.0 0.0 114.59 109.48 114.59 114.59</motors>
        </point>
      </grasp>
      <grasp name="Spherical">
        <point>
          <inputs>0.2 0.2  0.2 0.2 0.2 0.2</inputs>
          <motors>0.0 0.0 0.0 109.48 0.0 0.0</motors>
        </point>
        <point>
          <inputs>1.0 1.0 1.0 1.0 1.0 1.0 0.2 0.2</inputs>
          <motors>0.0 0.0 114.59 109.48 143.24 114.59 0.0 0.0</motors>
        </point>
      </grasp>
<grasp name='PowerGrip'>
 <point><inputs> 0 0 0 0 0 0 </inputs><motors> 0 0 10.0 60.0 1.0 1.0 </motors></point>
 <point><inputs> 0.007874015748 0.007874015748 0.007874015748 0.007874015748 0.007874015748 0.007874015748 </inputs><motors> 0 0 10.3 61.8 1.7 1.7 </motors></point>
 <point><inputs> 0.0157480315 0.0157480315 0.0157480315 0.0157480315 0.0157480315 0.0157480315 </inputs><motors> 0 0 10.6 63.6 2.4 2.4 </motors></point>
 <point><inputs> 0.02362204724 0.02362204724 0.02362204724 0.02362204724 0.02362204724 0.02362204724 </inputs><motors> 0 0 10.8 65.4 3.1 3.1 </motors></point>
 <point><inputs> 0.03149606299 0.03149606299 0.03149606299 0.03149606299 0.03149606299 0.03149606299 </inputs><motors> 0 0 11.1 67.2 3.8 3.8 </motors></point>
 <point><inputs> 0.03937007874 0.03937007874 0.03937007874 0.03937007874 0.03937007874 0.03937007874 </inputs><motors> 0 0 11.4 69.0 4.5 4.5 </motors></point>
 <point><inputs> 0.04724409449 0.04724409449 0.04724409449 0.04724409449 0.04724409449 0.04724409449 </inputs><motors> 0 0 11.7 70.8 5.2 5.2 </motors></point>
 <point><inputs> 0.05511811024 0.05511811024 0.05511811024 0.05511811024 0.05511811024 0.05511811024 </inputs><motors> 0 0 11.9 72.6 5.9 5.9 </motors></point>
 <point><inputs> 0.06299212598 0.06299212598 0.06299212598 0.06299212598 0.06299212598 0.06299212598 </inputs><motors> 0 0 12.2 74.4 6.6 6.6 </motors></point>
 <point><inputs> 0.07086614173 0.07086614173 0.07086614173 0.07086614173 0.07086614173 0.07086614173 </inputs><motors> 0 0 12.5 76.2 7.3 7.3 </motors></point>
 <point><inputs> 0.07874015748 0.07874015748 0.07874015748 0.07874015748 0.07874015748 0.07874015748 </inputs><motors> 0 0 12.8 78.0 8.0 8.0 </motors></point>
 <point><inputs> 0.08661417323 0.08661417323 0.08661417323 0.08661417323 0.08661417323 0.08661417323 </inputs><motors> 0 0 13.0 78.0 8.7 8.7 </motors></point>
 <point><inputs> 0.09448818898 0.09448818898 0.09448818898 0.09448818898 0.09448818898 0.09448818898 </inputs><motors> 0 0 13.3 78.0 9.4 9.4 </motors></point>
 <point><inputs> 0.1023622047 0.1023622047 0.1023622047 0.1023622047 0.1023622047 0.1023622047 </inputs><motors> 0 0 13.6 78.0 10.1 10.1 </motors></point>
 <point><inputs> 0.1102362205 0.1102362205 0.1102362205 0.1102362205 0.1102362205 0.1102362205 </inputs><motors> 0 0 13.9 78.0 10.8 10.8 </motors></point>
 <point><inputs> 0.1181102362 0.1181102362 0.1181102362 0.1181102362 0.1181102362 0.1181102362 </inputs><motors> 0 0 14.1 78.0 11.5 11.5 </motors></point>
 <point><inputs> 0.125984252 0.125984252 0.125984252 0.125984252 0.125984252 0.125984252 </inputs><motors> 0 0 14.4 78.0 12.2 12.2 </motors></point>
 <point><inputs> 0.1338582677 0.1338582677 0.1338582677 0.1338582677 0.1338582677 0.1338582677 </inputs><motors> 0 0 14.7 78.0 12.9 12.9 </motors></point>
 <point><inputs> 0.1417322835 0.1417322835 0.1417322835 0.1417322835 0.1417322835 0.1417322835 </inputs><motors> 0 0 15.0 78.0 13.6 13.6 </motors></point>
 <point><inputs> 0.1496062992 0.1496062992 0.1496062992 0.1496062992 0.1496062992 0.1496062992 </inputs><motors> 0 0 15.2 78.0 14.3 14.3 </motors></point>
 <point><inputs> 0.157480315 0.157480315 0.157480315 0.157480315 0.157480315 0.157480315 </inputs><motors> 0 0 15.5 78.0 15.0 15.0 </motors></point>
 <point><inputs> 0.1653543307 0.1653543307 0.1653543307 0.1653543307 0.1653543307 0.1653543307 </inputs><motors> 0 0 15.8 78.0 15.7 15.7 </motors></point>
 <point><inputs> 0.1732283465 0.1732283465 0.1732283465 0.1732283465 0.1732283465 0.1732283465 </inputs><motors> 0 0 16.1 78.0 16.4 16.4 </motors></point>
 <point><inputs> 0.1811023622 0.1811023622 0.1811023622 0.1811023622 0.1811023622 0.1811023622 </inputs><motors> 0 0 16.3 78.0 17.1 17.1 </motors></point>
 <point><inputs> 0.188976378 0.188976378 0.188976378 0.188976378 0.188976378 0.188976378 </inputs><motors> 0 0 16.6 78.0 17.8 17.8 </motors></point>
 <point><inputs> 0.1968503937 0.1968503937 0.1968503937 0.1968503937 0.1968503937 0.1968503937 </inputs><motors> 0 0 16.9 78.0 18.5 18.5 </motors></point>
 <point><inputs> 0.2047244094 0.2047244094 0.2047244094 0.2047244094 0.2047244094 0.2047244094 </inputs><motors> 0 0 17.2 78.0 19.2 19.2 </motors></point>
 <point><inputs> 0.2125984252 0.2125984252 0.2125984252 0.2125984252 0.2125984252 0.2125984252 </inputs><motors> 0 0 17.4 78.0 19.9 19.9 </motors></point>
 <point><inputs> 0.2204724409 0.2204724409 0.2204724409 0.2204724409 0.2204724409 0.2204724409 </inputs><motors> 0 0 17.7 78.0 20.6 20.6 </motors></point>
 <point><inputs> 0.2283464567 0.2283464567 0.2283464567 0.2283464567 0.2283464567 0.2283464567 </inputs><motors> 0 0 18.0 78.0 21.3 21.3 </motors></point>
 <point><inputs> 0.2362204724 0.2362204724 0.2362204724 0.2362204724 0.2362204724 0.2362204724 </inputs><motors> 0 0 18.3 78.0 22.0 22.0 </motors></point>
 <point><inputs> 0.2440944882 0.2440944882 0.2440944882 0.2440944882 0.2440944882 0.2440944882 </inputs><motors> 0 0 18.5 78.0 22.7 22.7 </motors></point>
 <point><inputs> 0.2519685039 0.2519685039 0.2519685039 0.2519685039 0.2519685039 0.2519685039 </inputs><motors> 0 0 18.8 78.0 23.4 23.4 </motors></point>
 <point><inputs> 0.2598425197 0.2598425197 0.2598425197 0.2598425197 0.2598425197 0.2598425197 </inputs><motors> 0 0 19.1 78.0 24.1 24.1 </motors></point>
 <point><inputs> 0.2677165354 0.2677165354 0.2677165354 0.2677165354 0.2677165354 0.2677165354 </inputs><motors> 0 0 19.4 78.0 24.8 24.8 </motors></point>
 <point><inputs> 0.2755905512 0.2755905512 0.2755905512 0.2755905512 0.2755905512 0.2755905512 </inputs><motors> 0 0 19.6 78.0 25.5 25.5 </motors></point>
 <point><inputs> 0.2834645669 0.2834645669 0.2834645669 0.2834645669 0.2834645669 0.2834645669 </inputs><motors> 0 0 19.9 78.0 26.2 26.2 </motors></point>
 <point><inputs> 0.2913385827 0.2913385827 0.2913385827 0.2913385827 0.2913385827 0.2913385827 </inputs><motors> 0 0 20.2 78.0 26.9 26.9 </motors></point>
 <point><inputs> 0.2992125984 0.2992125984 0.2992125984 0.2992125984 0.2992125984 0.2992125984 </inputs><motors> 0 0 20.5 78.0 27.6 27.6 </motors></point>
 <point><inputs> 0.3070866142 0.3070866142 0.3070866142 0.3070866142 0.3070866142 0.3070866142 </inputs><motors> 0 0 20.7 78.0 28.3 28.3 </motors></point>
 <point><inputs> 0.3149606299 0.3149606299 0.3149606299 0.3149606299 0.3149606299 0.3149606299 </inputs><motors> 0 0 21.0 78.0 29.0 29.0 </motors></point>
 <point><inputs> 0.3228346457 0.3228346457 0.3228346457 0.3228346457 0.3228346457 0.3228346457 </inputs><motors> 0 0 21.3 78.0 29.7 29.7 </motors></point>
 <point><inputs> 0.3307086614 0.3307086614 0.3307086614 0.3307086614 0.3307086614 0.3307086614 </inputs><motors> 0 0 21.6 78.0 30.4 30.4 </motors></point>
 <point><inputs> 0.3385826772 0.3385826772 0.3385826772 0.3385826772 0.3385826772 0.3385826772 </inputs><motors> 0 0 21.9 78.0 31.1 31.1 </motors></point>
 <point><inputs> 0.3464566929 0.3464566929 0.3464566929 0.3464566929 0.3464566929 0.3464566929 </inputs><motors> 0 0 22.1 78.0 31.8 31.8 </motors></point>
 <point><inputs> 0.3543307087 0.3543307087 0.3543307087 0.3543307087 0.3543307087 0.3543307087 </inputs><motors> 0 0 22.4 78.0 32.5 32.5 </motors></point>
 <point><inputs> 0.3622047244 0.3622047244 0.3622047244 0.3622047244 0.3622047244 0.3622047244 </inputs><motors> 0 0 22.7 78.0 33.2 33.2 </motors></point>
 <point><inputs> 0.3700787402 0.3700787402 0.3700787402 0.3700787402 0.3700787402 0.3700787402 </inputs><motors> 0 0 23.0 78.0 33.9 33.9 </motors></point>
 <point><inputs> 0.3779527559 0.3779527559 0.3779527559 0.3779527559 0.3779527559 0.3779527559 </inputs><motors> 0 0 23.2 78.0 34.6 34.6 </motors></point>
 <point><inputs> 0.3858267717 0.3858267717 0.3858267717 0.3858267717 0.3858267717 0.3858267717 </inputs><motors> 0 0 23.5 78.0 35.3 35.3 </motors></point>
 <point><inputs> 0.3937007874 0.3937007874 0.3937007874 0.3937007874 0.3937007874 0.3937007874 </inputs><motors> 0 0 23.8 78.0 36.0 36.0 </motors></point>
 <point><inputs> 0.4015748031 0.4015748031 0.4015748031 0.4015748031 0.4015748031 0.4015748031 </inputs><motors> 0 0 24.1 78.0 36.7 36.7 </motors></point>
 <point><inputs> 0.4094488189 0.4094488189 0.4094488189 0.4094488189 0.4094488189 0.4094488189 </inputs><motors> 0 0 24.3 78.0 37.4 37.4 </motors></point>
 <point><inputs> 0.4173228346 0.4173228346 0.4173228346 0.4173228346 0.4173228346 0.4173228346 </inputs><motors> 0 0 24.6 78.0 38.1 38.1 </motors></point>
 <point><inputs> 0.4251968504 0.4251968504 0.4251968504 0.4251968504 0.4251968504 0.4251968504 </inputs><motors> 0 0 24.9 78.0 38.8 38.8 </motors></point>
 <point><inputs> 0.4330708661 0.4330708661 0.4330708661 0.4330708661 0.4330708661 0.4330708661 </inputs><motors> 0 0 25.2 78.0 39.5 39.5 </motors></point>
 <point><inputs> 0.4409448819 0.4409448819 0.4409448819 0.4409448819 0.4409448819 0.4409448819 </inputs><motors> 0 0 25.4 78.0 40.2 40.2 </motors></point>
 <point><inputs> 0.4488188976 0.4488188976 0.4488188976 0.4488188976 0.4488188976 0.4488188976 </inputs><motors> 0 0 25.7 78.0 40.9 40.9 </motors></point>
 <point><inputs> 0.4566929134 0.4566929134 0.4566929134 0.4566929134 0.4566929134 0.4566929134 </inputs><motors> 0 0 26.0 78.0 41.6 41.6 </motors></point>
 <point><inputs> 0.4645669291 0.4645669291 0.4645669291 0.4645669291 0.4645669291 0.4645669291 </inputs><motors> 0 0 26.3 78.0 42.3 42.3 </motors></point>
 <point><inputs> 0.4724409449 0.4724409449 0.4724409449 0.4724409449 0.4724409449 0.4724409449 </inputs><motors> 0 0 26.5 78.0 43.0 43.0 </motors></point>
 <point><inputs> 0.4803149606 0.4803149606 0.4803149606 0.4803149606 0.4803149606 0.4803149606 </inputs><motors> 0 0 26.8 78.0 43.7 43.7 </motors></point>
 <point><inputs> 0.4881889764 0.4881889764 0.4881889764 0.4881889764 0.4881889764 0.4881889764 </inputs><motors> 0 0 27.1 78.0 44.4 44.4 </motors></point>
 <point><inputs> 0.4960629921 0.4960629921 0.4960629921 0.4960629921 0.4960629921 0.4960629921 </inputs><motors> 0 0 27.4 78.0 45.1 45.1 </motors></point>
 <point><inputs> 0.5039370079 0.5039370079 0.5039370079 0.5039370079 0.5039370079 0.5039370079 </inputs><motors> 0 0 27.6 78.0 45.9 45.9 </motors></point>
 <point><inputs> 0.5118110236 0.5118110236 0.5118110236 0.5118110236 0.5118110236 0.5118110236 </inputs><motors> 0 0 27.9 78.0 46.6 46.6 </motors></point>
 <point><inputs> 0.5196850394 0.5196850394 0.5196850394 0.5196850394 0.5196850394 0.5196850394 </inputs><motors> 0 0 28.2 78.0 47.3 47.3 </motors></point>
 <point><inputs> 0.5275590551 0.5275590551 0.5275590551 0.5275590551 0.5275590551 0.5275590551 </inputs><motors> 0 0 28.5 78.0 48.0 48.0 </motors></point>
 <point><inputs> 0.5354330709 0.5354330709 0.5354330709 0.5354330709 0.5354330709 0.5354330709 </inputs><motors> 0 0 28.7 78.0 48.7 48.7 </motors></point>
 <point><inputs> 0.5433070866 0.5433070866 0.5433070866 0.5433070866 0.5433070866 0.5433070866 </inputs><motors> 0 0 29.0 78.0 49.4 49.4 </motors></point>
 <point><inputs> 0.5511811024 0.5511811024 0.5511811024 0.5511811024 0.5511811024 0.5511811024 </inputs><motors> 0 0 29.3 78.0 50.1 50.1 </motors></point>
 <point><inputs> 0.5590551181 0.5590551181 0.5590551181 0.5590551181 0.5590551181 0.5590551181 </inputs><motors> 0 0 29.6 78.0 50.8 50.8 </motors></point>
 <point><inputs> 0.5669291339 0.5669291339 0.5669291339 0.5669291339 0.5669291339 0.5669291339 </inputs><motors> 0 0 29.8 78.0 51.5 51.5 </motors></point>
 <point><inputs> 0.5748031496 0.5748031496 0.5748031496 0.5748031496 0.5748031496 0.5748031496 </inputs><motors> 0 0 30.1 78.0 52.2 52.2 </motors></point>
 <point><inputs> 0.5826771654 0.5826771654 0.5826771654 0.5826771654 0.5826771654 0.5826771654 </inputs><motors> 0 0 30.4 78.0 52.9 52.9 </motors></point>
 <point><inputs> 0.5905511811 0.5905511811 0.5905511811 0.5905511811 0.5905511811 0.5905511811 </inputs><motors> 0 0 30.7 78.0 53.6 53.6 </motors></point>
 <point><inputs> 0.5984251969 0.5984251969 0.5984251969 0.5984251969 0.5984251969 0.5984251969 </inputs><motors> 0 0 30.9 78.0 54.3 54.3 </motors></point>
 <point><inputs> 0.6062992126 0.6062992126 0.6062992126 0.6062992126 0.6062992126 0.6062992126 </inputs><motors> 0 0 31.2 78.0 55.0 55.0 </motors></point>
 <point><inputs> 0.6141732283 0.6141732283 0.6141732283 0.6141732283 0.6141732283 0.6141732283 </inputs><motors> 0 0 31.5 78.0 55.7 55.7 </motors></point>
 <point><inputs> 0.6220472441 0.6220472441 0.6220472441 0.6220472441 0.6220472441 0.6220472441 </inputs><motors> 0 0 31.8 78.0 56.4 56.4 </motors></point>
 <point><inputs> 0.6299212598 0.6299212598 0.6299212598 0.6299212598 0.6299212598 0.6299212598 </inputs><motors> 0 0 32.0 78.0 57.1 57.1 </motors></point>
 <point><inputs> 0.6377952756 0.6377952756 0.6377952756 0.6377952756 0.6377952756 0.6377952756 </inputs><motors> 0 0 32.3 78.0 57.8 57.8 </motors></point>
 <point><inputs> 0.6456692913 0.6456692913 0.6456692913 0.6456692913 0.6456692913 0.6456692913 </inputs><motors> 0 0 32.6 78.0 58.5 58.5 </motors></point>
 <point><inputs> 0.6535433071 0.6535433071 0.6535433071 0.6535433071 0.6535433071 0.6535433071 </inputs><motors> 0 0 32.9 78.0 59.2 59.2 </motors></point>
 <point><inputs> 0.6614173228 0.6614173228 0.6614173228 0.6614173228 0.6614173228 0.6614173228 </inputs><motors> 0 0 33.1 78.0 59.9 59.9 </motors></point>
 <point><inputs> 0.6692913386 0.6692913386 0.6692913386 0.6692913386 0.6692913386 0.6692913386 </inputs><motors> 0 0 33.4 78.0 60.6 60.6 </motors></point>
 <point><inputs> 0.6771653543 0.6771653543 0.6771653543 0.6771653543 0.6771653543 0.6771653543 </inputs><motors> 0 0 33.7 78.0 61.3 61.3 </motors></point>
 <point><inputs> 0.6850393701 0.6850393701 0.6850393701 0.6850393701 0.6850393701 0.6850393701 </inputs><motors> 0 0 34.0 78.0 62.0 62.0 </motors></point>
 <point><inputs> 0.6929133858 0.6929133858 0.6929133858 0.6929133858 0.6929133858 0.6929133858 </inputs><motors> 0 0 34.3 78.0 62.7 62.7 </motors></point>
 <point><inputs> 0.7007874016 0.7007874016 0.7007874016 0.7007874016 0.7007874016 0.7007874016 </inputs><motors> 0 0 34.5 78.0 63.4 63.4 </motors></point>
 <point><inputs> 0.7086614173 0.7086614173 0.7086614173 0.7086614173 0.7086614173 0.7086614173 </inputs><motors> 0 0 34.8 78.0 64.1 64.1 </motors></point>
 <point><inputs> 0.7165354331 0.7165354331 0.7165354331 0.7165354331 0.7165354331 0.7165354331 </inputs><motors> 0 0 35.1 78.0 64.8 64.8 </motors></point>
 <point><inputs> 0.7244094488 0.7244094488 0.7244094488 0.7244094488 0.7244094488 0.7244094488 </inputs><motors> 0 0 35.4 78.0 65.5 65.5 </motors></point>
 <point><inputs> 0.7322834646 0.7322834646 0.7322834646 0.7322834646 0.7322834646 0.7322834646 </inputs><motors> 0 0 35.6 78.0 66.2 66.2 </motors></point>
 <point><inputs> 0.7401574803 0.7401574803 0.7401574803 0.7401574803 0.7401574803 0.7401574803 </inputs><motors> 0 0 35.9 78.0 66.9 66.9 </motors></point>
 <point><inputs> 0.7480314961 0.7480314961 0.7480314961 0.7480314961 0.7480314961 0.7480314961 </inputs><motors> 0 0 36.2 78.0 67.6 67.6 </motors></point>
 <point><inputs> 0.7559055118 0.7559055118 0.7559055118 0.7559055118 0.7559055118 0.7559055118 </inputs><motors> 0 0 36.5 78.0 68.3 68.3 </motors></point>
 <point><inputs> 0.7637795276 0.7637795276 0.7637795276 0.7637795276 0.7637795276 0.7637795276 </inputs><motors> 0 0 36.7 78.0 69.0 69.0 </motors></point>
 <point><inputs> 0.7716535433 0.7716535433 0.7716535433 0.7716535433 0.7716535433 0.7716535433 </inputs><motors> 0 0 37.0 78.0 69.7 69.7 </motors></point>
 <point><inputs> 0.7795275591 0.7795275591 0.7795275591 0.7795275591 0.7795275591 0.7795275591 </inputs><motors> 0 0 37.3 78.0 70.4 70.4 </motors></point>
 <point><inputs> 0.7874015748 0.7874015748 0.7874015748 0.7874015748 0.7874015748 0.7874015748 </inputs><motors> 0 0 37.6 78.0 71.1 71.1 </motors></point>
 <point><inputs> 0.7952755906 0.7952755906 0.7952755906 0.7952755906 0.7952755906 0.7952755906 </inputs><motors> 0 0 37.8 78.0 71.8 71.8 </motors></point>
 <point><inputs> 0.8031496063 0.8031496063 0.8031496063 0.8031496063 0.8031496063 0.8031496063 </inputs><motors> 0 0 38.1 78.0 72.5 72.5 </motors></point>
 <point><inputs> 0.811023622 0.811023622 0.811023622 0.811023622 0.811023622 0.811023622 </inputs><motors> 0 0 38.4 78.0 73.2 73.2 </motors></point>
 <point><inputs> 0.8188976378 0.8188976378 0.8188976378 0.8188976378 0.8188976378 0.8188976378 </inputs><motors> 0 0 38.7 78.0 73.9 73.9 </motors></point>
 <point><inputs> 0.8267716535 0.8267716535 0.8267716535 0.8267716535 0.8267716535 0.8267716535 </inputs><motors> 0 0 38.9 78.0 74.6 74.6 </motors></point>
 <point><inputs> 0.8346456693 0.8346456693 0.8346456693 0.8346456693 0.8346456693 0.8346456693 </inputs><motors> 0 0 39.2 78.0 75.3 75.3 </motors></point>
 <point><inputs> 0.842519685 0.842519685 0.842519685 0.842519685 0.842519685 0.842519685 </inputs><motors> 0 0 39.5 78.0 76.0 76.0 </motors></point>
 <point><inputs> 0.8503937008 0.8503937008 0.8503937008 0.8503937008 0.8503937008 0.8503937008 </inputs><motors> 0 0 39.8 78.0 76.7 76.7 </motors></point>
 <point><inputs> 0.8582677165 0.8582677165 0.8582677165 0.8582677165 0.8582677165 0.8582677165 </inputs><motors> 0 0 40.0 78.0 77.4 77.4 </motors></point>
 <point><inputs> 0.8661417323 0.8661417323 0.8661417323 0.8661417323 0.8661417323 0.8661417323 </inputs><motors> 0 0 40.3 78.0 78.1 78.1 </motors></point>
 <point><inputs> 0.874015748 0.874015748 0.874015748 0.874015748 0.874015748 0.874015748 </inputs><motors> 0 0 40.6 78.0 78.8 78.8 </motors></point>
 <point><inputs> 0.8818897638 0.8818897638 0.8818897638 0.8818897638 0.8818897638 0.8818897638 </inputs><motors> 0 0 40.9 78.0 79.5 79.5 </motors></point>
 <point><inputs> 0.8897637795 0.8897637795 0.8897637795 0.8897637795 0.8897637795 0.8897637795 </inputs><motors> 0 0 41.1 78.0 80.2 80.2 </motors></point>
 <point><inputs> 0.8976377953 0.8976377953 0.8976377953 0.8976377953 0.8976377953 0.8976377953 </inputs><motors> 0 0 41.4 78.0 80.9 80.9 </motors></point>
 <point><inputs> 0.905511811 0.905511811 0.905511811 0.905511811 0.905511811 0.905511811 </inputs><motors> 0 0 41.7 78.0 81.6 81.6 </motors></point>
 <point><inputs> 0.9133858268 0.9133858268 0.9133858268 0.9133858268 0.9133858268 0.9133858268 </inputs><motors> 0 0 42.0 78.0 82.3 82.3 </motors></point>
 <point><inputs> 0.9212598425 0.9212598425 0.9212598425 0.9212598425 0.9212598425 0.9212598425 </inputs><motors> 0 0 42.2 78.0 83.0 83.0 </motors></point>
 <point><inputs> 0.9291338583 0.9291338583 0.9291338583 0.9291338583 0.9291338583 0.9291338583 </inputs><motors> 0 0 42.5 78.0 83.7 83.7 </motors></point>
 <point><inputs> 0.937007874 0.937007874 0.937007874 0.937007874 0.937007874 0.937007874 </inputs><motors> 0 0 42.8 78.0 84.4 84.4 </motors></point>
 <point><inputs> 0.9448818898 0.9448818898 0.9448818898 0.9448818898 0.9448818898 0.9448818898 </inputs><motors> 0 0 43.1 78.0 85.1 85.1 </motors></point>
 <point><inputs> 0.9527559055 0.9527559055 0.9527559055 0.9527559055 0.9527559055 0.9527559055 </inputs><motors> 0 0 43.3 78.0 85.8 85.8 </motors></point>
 <point><inputs> 0.9606299213 0.9606299213 0.9606299213 0.9606299213 0.9606299213 0.9606299213 </inputs><motors> 0 0 43.6 78.0 86.5 86.5 </motors></point>
 <point><inputs> 0.968503937 0.968503937 0.968503937 0.968503937 0.968503937 0.968503937 </inputs><motors> 0 0 43.9 78.0 87.2 87.2 </motors></point>
 <point><inputs> 0.9763779528 0.9763779528 0.9763779528 0.9763779528 0.9763779528 0.9763779528 </inputs><motors> 0 0 44.2 78.0 87.9 87.9 </motors></point>
 <point><inputs> 0.9842519685 0.9842519685 0.9842519685 0.9842519685 0.9842519685 0.9842519685 </inputs><motors> 0 0 44.4 78.0 88.6 88.6 </motors></point>
 <point><inputs> 0.9921259843 0.9921259843 0.9921259843 0.9921259843 0.9921259843 0.9921259843 </inputs><motors> 0 0 44.7 78.0 89.3 89.3 </motors></point>
 <point><inputs> 1 1 1 1 1 1 </inputs><motors> 0 0 45.0 78.0 90.0 90.0 </motors></point>
</grasp>
<grasp name='Tool'>
 <point><inputs> 0 0 0 0 0 0 </inputs><motors> 0 0 10 100 1.0 0.0 </motors></point>
 <point><inputs> 0.007874015748 0.007874015748 0.007874015748 0.007874015748 0.007874015748 0.007874015748 </inputs><motors> 0 0 10 100 1.0 1.5 </motors></point>
 <point><inputs> 0.0157480315 0.0157480315 0.0157480315 0.0157480315 0.0157480315 0.0157480315 </inputs><motors> 0 0 10 100 1.0 2.9 </motors></point>
 <point><inputs> 0.02362204724 0.02362204724 0.02362204724 0.02362204724 0.02362204724 0.02362204724 </inputs><motors> 0 0 10 100 1.0 4.4 </motors></point>
 <point><inputs> 0.03149606299 0.03149606299 0.03149606299 0.03149606299 0.03149606299 0.03149606299 </inputs><motors> 0 0 10 100 1.0 5.8 </motors></point>
 <point><inputs> 0.03937007874 0.03937007874 0.03937007874 0.03937007874 0.03937007874 0.03937007874 </inputs><motors> 0 0 10 100 1.0 7.3 </motors></point>
 <point><inputs> 0.04724409449 0.04724409449 0.04724409449 0.04724409449 0.04724409449 0.04724409449 </inputs><motors> 0 0 10 100 1.0 8.7 </motors></point>
 <point><inputs> 0.05511811024 0.05511811024 0.05511811024 0.05511811024 0.05511811024 0.05511811024 </inputs><motors> 0 0 10 100 1.0 10.2 </motors></point>
 <point><inputs> 0.06299212598 0.06299212598 0.06299212598 0.06299212598 0.06299212598 0.06299212598 </inputs><motors> 0 0 10 100 1.0 11.6 </motors></point>
 <point><inputs> 0.07086614173 0.07086614173 0.07086614173 0.07086614173 0.07086614173 0.07086614173 </inputs><motors> 0 0 10 100 1.0 13.1 </motors></point>
 <point><inputs> 0.07874015748 0.07874015748 0.07874015748 0.07874015748 0.07874015748 0.07874015748 </inputs><motors> 0 0 10 100 1.0 14.5 </motors></point>
 <point><inputs> 0.08661417323 0.08661417323 0.08661417323 0.08661417323 0.08661417323 0.08661417323 </inputs><motors> 0 0 10 100 1.0 16.0 </motors></point>
 <point><inputs> 0.09448818898 0.09448818898 0.09448818898 0.09448818898 0.09448818898 0.09448818898 </inputs><motors> 0 0 10 100 1.0 17.4 </motors></point>
 <point><inputs> 0.1023622047 0.1023622047 0.1023622047 0.1023622047 0.1023622047 0.1023622047 </inputs><motors> 0 0 10 100 1.0 18.9 </motors></point>
 <point><inputs> 0.1102362205 0.1102362205 0.1102362205 0.1102362205 0.1102362205 0.1102362205 </inputs><motors> 0 0 10 100 1.0 20.3 </motors></point>
 <point><inputs> 0.1181102362 0.1181102362 0.1181102362 0.1181102362 0.1181102362 0.1181102362 </inputs><motors> 0 0 10 100 1.0 21.8 </motors></point>
 <point><inputs> 0.125984252 0.125984252 0.125984252 0.125984252 0.125984252 0.125984252 </inputs><motors> 0 0 15 100 1.0 23.2 </motors></point>
 <point><inputs> 0.1338582677 0.1338582677 0.1338582677 0.1338582677 0.1338582677 0.1338582677 </inputs><motors> 0 0 15 100 1.0 24.7 </motors></point>
 <point><inputs> 0.1417322835 0.1417322835 0.1417322835 0.1417322835 0.1417322835 0.1417322835 </inputs><motors> 0 0 15 100 1.0 26.1 </motors></point>
 <point><inputs> 0.1496062992 0.1496062992 0.1496062992 0.1496062992 0.1496062992 0.1496062992 </inputs><motors> 0 0 15 100 1.0 27.6 </motors></point>
 <point><inputs> 0.157480315 0.157480315 0.157480315 0.157480315 0.157480315 0.157480315 </inputs><motors> 0 0 15 100 1.0 29.0 </motors></point>
 <point><inputs> 0.1653543307 0.1653543307 0.1653543307 0.1653543307 0.1653543307 0.1653543307 </inputs><motors> 0 0 15 100 1.0 30.5 </motors></point>
 <point><inputs> 0.1732283465 0.1732283465 0.1732283465 0.1732283465 0.1732283465 0.1732283465 </inputs><motors> 0 0 15 100 1.0 31.9 </motors></point>
 <point><inputs> 0.1811023622 0.1811023622 0.1811023622 0.1811023622 0.1811023622 0.1811023622 </inputs><motors> 0 0 15 100 1.0 33.4 </motors></point>
 <point><inputs> 0.188976378 0.188976378 0.188976378 0.188976378 0.188976378 0.188976378 </inputs><motors> 0 0 15 100 1.0 34.8 </motors></point>
 <point><inputs> 0.1968503937 0.1968503937 0.1968503937 0.1968503937 0.1968503937 0.1968503937 </inputs><motors> 0 0 15 100 1.0 36.3 </motors></point>
 <point><inputs> 0.2047244094 0.2047244094 0.2047244094 0.2047244094 0.2047244094 0.2047244094 </inputs><motors> 0 0 15 100 1.0 37.7 </motors></point>
 <point><inputs> 0.2125984252 0.2125984252 0.2125984252 0.2125984252 0.2125984252 0.2125984252 </inputs><motors> 0 0 15 100 1.0 39.2 </motors></point>
 <point><inputs> 0.2204724409 0.2204724409 0.2204724409 0.2204724409 0.2204724409 0.2204724409 </inputs><motors> 0 0 15 100 1.0 40.6 </motors></point>
 <point><inputs> 0.2283464567 0.2283464567 0.2283464567 0.2283464567 0.2283464567 0.2283464567 </inputs><motors> 0 0 15 100 1.0 42.1 </motors></point>
 <point><inputs> 0.2362204724 0.2362204724 0.2362204724 0.2362204724 0.2362204724 0.2362204724 </inputs><motors> 0 0 15 100 1.0 43.5 </motors></point>
 <point><inputs> 0.2440944882 0.2440944882 0.2440944882 0.2440944882 0.2440944882 0.2440944882 </inputs><motors> 0 0 15 100 1.0 45.0 </motors></point>
 <point><inputs> 0.2519685039 0.2519685039 0.2519685039 0.2519685039 0.2519685039 0.2519685039 </inputs><motors> 0 0 15 100 1.0 46.5 </motors></point>
 <point><inputs> 0.2598425197 0.2598425197 0.2598425197 0.2598425197 0.2598425197 0.2598425197 </inputs><motors> 0 0 15 100 1.0 47.9 </motors></point>
 <point><inputs> 0.2677165354 0.2677165354 0.2677165354 0.2677165354 0.2677165354 0.2677165354 </inputs><motors> 0 0 15 100 1.0 49.4 </motors></point>
 <point><inputs> 0.2755905512 0.2755905512 0.2755905512 0.2755905512 0.2755905512 0.2755905512 </inputs><motors> 0 0 15 100 1.0 50.8 </motors></point>
 <point><inputs> 0.2834645669 0.2834645669 0.2834645669 0.2834645669 0.2834645669 0.2834645669 </inputs><motors> 0 0 15 100 1.0 52.3 </motors></point>
 <point><inputs> 0.2913385827 0.2913385827 0.2913385827 0.2913385827 0.2913385827 0.2913385827 </inputs><motors> 0 0 15 100 1.0 53.7 </motors></point>
 <point><inputs> 0.2992125984 0.2992125984 0.2992125984 0.2992125984 0.2992125984 0.2992125984 </inputs><motors> 0 0 15 100 1.0 55.2 </motors></point>
 <point><inputs> 0.3070866142 0.3070866142 0.3070866142 0.3070866142 0.3070866142 0.3070866142 </inputs><motors> 0 0 15 100 1.0 56.6 </motors></point>
 <point><inputs> 0.3149606299 0.3149606299 0.3149606299 0.3149606299 0.3149606299 0.3149606299 </inputs><motors> 0 0 15 100 1.0 58.1 </motors></point>
 <point><inputs> 0.3228346457 0.3228346457 0.3228346457 0.3228346457 0.3228346457 0.3228346457 </inputs><motors> 0 0 15 100 1.0 59.5 </motors></point>
 <point><inputs> 0.3307086614 0.3307086614 0.3307086614 0.3307086614 0.3307086614 0.3307086614 </inputs><motors> 0 0 15 100 1.0 61.0 </motors></point>
 <point><inputs> 0.3385826772 0.3385826772 0.3385826772 0.3385826772 0.3385826772 0.3385826772 </inputs><motors> 0 0 15 100 1.0 62.4 </motors></point>
 <point><inputs> 0.3464566929 0.3464566929 0.3464566929 0.3464566929 0.3464566929 0.3464566929 </inputs><motors> 0 0 15 100 1.0 63.9 </motors></point>
 <point><inputs> 0.3543307087 0.3543307087 0.3543307087 0.3543307087 0.3543307087 0.3543307087 </inputs><motors> 0 0 15 100 1.0 65.3 </motors></point>
 <point><inputs> 0.3622047244 0.3622047244 0.3622047244 0.3622047244 0.3622047244 0.3622047244 </inputs><motors> 0 0 15 100 1.0 66.8 </motors></point>
 <point><inputs> 0.3700787402 0.3700787402 0.3700787402 0.3700787402 0.3700787402 0.3700787402 </inputs><motors> 0 0 15 100 1.0 68.2 </motors></point>
 <point><inputs> 0.3779527559 0.3779527559 0.3779527559 0.3779527559 0.3779527559 0.3779527559 </inputs><motors> 0 0 15 100 1.0 69.7 </motors></point>
 <point><inputs> 0.3858267717 0.3858267717 0.3858267717 0.3858267717 0.3858267717 0.3858267717 </inputs><motors> 0 0 15 100 1.0 71.1 </motors></point>
 <point><inputs> 0.3937007874 0.3937007874 0.3937007874 0.3937007874 0.3937007874 0.3937007874 </inputs><motors> 0 0 15 100 1.0 72.6 </motors></point>
 <point><inputs> 0.4015748031 0.4015748031 0.4015748031 0.4015748031 0.4015748031 0.4015748031 </inputs><motors> 0 0 15 100 1.0 74.0 </motors></point>
 <point><inputs> 0.4094488189 0.4094488189 0.4094488189 0.4094488189 0.4094488189 0.4094488189 </inputs><motors> 0 0 15 100 1.0 75.5 </motors></point>
 <point><inputs> 0.4173228346 0.4173228346 0.4173228346 0.4173228346 0.4173228346 0.4173228346 </inputs><motors> 0 0 15 100 1.0 76.9 </motors></point>
 <point><inputs> 0.4251968504 0.4251968504 0.4251968504 0.4251968504 0.4251968504 0.4251968504 </inputs><motors> 0 0 15 100 1.0 78.4 </motors></point>
 <point><inputs> 0.4330708661 0.4330708661 0.4330708661 0.4330708661 0.4330708661 0.4330708661 </inputs><motors> 0 0 15 100 1.0 79.8 </motors></point>
 <point><inputs> 0.4409448819 0.4409448819 0.4409448819 0.4409448819 0.4409448819 0.4409448819 </inputs><motors> 0 0 15 100 1.0 81.3 </motors></point>
 <point><inputs> 0.4488188976 0.4488188976 0.4488188976 0.4488188976 0.4488188976 0.4488188976 </inputs><motors> 0 0 15 100 1.0 82.7 </motors></point>
 <point><inputs> 0.4566929134 0.4566929134 0.4566929134 0.4566929134 0.4566929134 0.4566929134 </inputs><motors> 0 0 15 100 1.0 84.2 </motors></point>
 <point><inputs> 0.4645669291 0.4645669291 0.4645669291 0.4645669291 0.4645669291 0.4645669291 </inputs><motors> 0 0 15 100 1.0 85.6 </motors></point>
 <point><inputs> 0.4724409449 0.4724409449 0.4724409449 0.4724409449 0.4724409449 0.4724409449 </inputs><motors> 0 0 15 100 1.0 87.1 </motors></point>
 <point><inputs> 0.4803149606 0.4803149606 0.4803149606 0.4803149606 0.4803149606 0.4803149606 </inputs><motors> 0 0 15 100 1.0 88.5 </motors></point>
 <point><inputs> 0.4881889764 0.4881889764 0.4881889764 0.4881889764 0.4881889764 0.4881889764 </inputs><motors> 0 0 15 100 1.0 90.0 </motors></point>
 <point><inputs> 0.4960629921 0.4960629921 0.4960629921 0.4960629921 0.4960629921 0.4960629921 </inputs><motors> 0 0 15 100 1.0 90.0 </motors></point>
 <point><inputs> 0.5039370079 0.5039370079 0.5039370079 0.5039370079 0.5039370079 0.5039370079 </inputs><motors> 0 0 15 100 1.0 90.0 </motors></point>
 <point><inputs> 0.5118110236 0.5118110236 0.5118110236 0.5118110236 0.5118110236 0.5118110236 </inputs><motors> 0 0 15 100 2.4 90.0 </motors></point>
 <point><inputs> 0.5196850394 0.5196850394 0.5196850394 0.5196850394 0.5196850394 0.5196850394 </inputs><motors> 0 0 15 100 3.8 90.0 </motors></point>
 <point><inputs> 0.5275590551 0.5275590551 0.5275590551 0.5275590551 0.5275590551 0.5275590551 </inputs><motors> 0 0 15 100 5.2 90.0 </motors></point>
 <point><inputs> 0.5354330709 0.5354330709 0.5354330709 0.5354330709 0.5354330709 0.5354330709 </inputs><motors> 0 0 15 100 6.7 90.0 </motors></point>
 <point><inputs> 0.5433070866 0.5433070866 0.5433070866 0.5433070866 0.5433070866 0.5433070866 </inputs><motors> 0 0 15 100 8.1 90.0 </motors></point>
 <point><inputs> 0.5511811024 0.5511811024 0.5511811024 0.5511811024 0.5511811024 0.5511811024 </inputs><motors> 0 0 15 100 9.5 90.0 </motors></point>
 <point><inputs> 0.5590551181 0.5590551181 0.5590551181 0.5590551181 0.5590551181 0.5590551181 </inputs><motors> 0 0 15 100 10.9 90.0 </motors></point>
 <point><inputs> 0.5669291339 0.5669291339 0.5669291339 0.5669291339 0.5669291339 0.5669291339 </inputs><motors> 0 0 15 100 12.3 90.0 </motors></point>
 <point><inputs> 0.5748031496 0.5748031496 0.5748031496 0.5748031496 0.5748031496 0.5748031496 </inputs><motors> 0 0 15 100 13.7 90.0 </motors></point>
 <point><inputs> 0.5826771654 0.5826771654 0.5826771654 0.5826771654 0.5826771654 0.5826771654 </inputs><motors> 0 0 15 100 15.1 90.0 </motors></point>
 <point><inputs> 0.5905511811 0.5905511811 0.5905511811 0.5905511811 0.5905511811 0.5905511811 </inputs><motors> 0 0 15 100 16.5 90.0 </motors></point>
 <point><inputs> 0.5984251969 0.5984251969 0.5984251969 0.5984251969 0.5984251969 0.5984251969 </inputs><motors> 0 0 15 100 18.0 90.0 </motors></point>
 <point><inputs> 0.6062992126 0.6062992126 0.6062992126 0.6062992126 0.6062992126 0.6062992126 </inputs><motors> 0 0 15 100 19.4 90.0 </motors></point>
 <point><inputs> 0.6141732283 0.6141732283 0.6141732283 0.6141732283 0.6141732283 0.6141732283 </inputs><motors> 0 0 15 100 20.8 90.0 </motors></point>
 <point><inputs> 0.6220472441 0.6220472441 0.6220472441 0.6220472441 0.6220472441 0.6220472441 </inputs><motors> 0 0 15 100 22.2 90.0 </motors></point>
 <point><inputs> 0.6299212598 0.6299212598 0.6299212598 0.6299212598 0.6299212598 0.6299212598 </inputs><motors> 0 0 15 100 23.6 90.0 </motors></point>
 <point><inputs> 0.6377952756 0.6377952756 0.6377952756 0.6377952756 0.6377952756 0.6377952756 </inputs><motors> 0 0 15 100 25.0 90.0 </motors></point>
 <point><inputs> 0.6456692913 0.6456692913 0.6456692913 0.6456692913 0.6456692913 0.6456692913 </inputs><motors> 0 0 15 100 26.4 90.0 </motors></point>
 <point><inputs> 0.6535433071 0.6535433071 0.6535433071 0.6535433071 0.6535433071 0.6535433071 </inputs><motors> 0 0 15 100 27.8 90.0 </motors></point>
 <point><inputs> 0.6614173228 0.6614173228 0.6614173228 0.6614173228 0.6614173228 0.6614173228 </inputs><motors> 0 0 15 100 29.3 90.0 </motors></point>
 <point><inputs> 0.6692913386 0.6692913386 0.6692913386 0.6692913386 0.6692913386 0.6692913386 </inputs><motors> 0 0 15 100 30.7 90.0 </motors></point>
 <point><inputs> 0.6771653543 0.6771653543 0.6771653543 0.6771653543 0.6771653543 0.6771653543 </inputs><motors> 0 0 15 100 32.1 90.0 </motors></point>
 <point><inputs> 0.6850393701 0.6850393701 0.6850393701 0.6850393701 0.6850393701 0.6850393701 </inputs><motors> 0 0 15 100 33.5 90.0 </motors></point>
 <point><inputs> 0.6929133858 0.6929133858 0.6929133858 0.6929133858 0.6929133858 0.6929133858 </inputs><motors> 0 0 15 100 34.9 90.0 </motors></point>
 <point><inputs> 0.7007874016 0.7007874016 0.7007874016 0.7007874016 0.7007874016 0.7007874016 </inputs><motors> 0 0 15 100 36.3 90.0 </motors></point>
 <point><inputs> 0.7086614173 0.7086614173 0.7086614173 0.7086614173 0.7086614173 0.7086614173 </inputs><motors> 0 0 15 100 37.7 90.0 </motors></point>
 <point><inputs> 0.7165354331 0.7165354331 0.7165354331 0.7165354331 0.7165354331 0.7165354331 </inputs><motors> 0 0 15 100 39.1 90.0 </motors></point>
 <point><inputs> 0.7244094488 0.7244094488 0.7244094488 0.7244094488 0.7244094488 0.7244094488 </inputs><motors> 0 0 15 100 40.6 90.0 </motors></point>
 <point><inputs> 0.7322834646 0.7322834646 0.7322834646 0.7322834646 0.7322834646 0.7322834646 </inputs><motors> 0 0 15 100 42.0 90.0 </motors></point>
 <point><inputs> 0.7401574803 0.7401574803 0.7401574803 0.7401574803 0.7401574803 0.7401574803 </inputs><motors> 0 0 15 100 43.4 90.0 </motors></point>
 <point><inputs> 0.7480314961 0.7480314961 0.7480314961 0.7480314961 0.7480314961 0.7480314961 </inputs><motors> 0 0 15 100 44.8 90.0 </motors></point>
 <point><inputs> 0.7559055118 0.7559055118 0.7559055118 0.7559055118 0.7559055118 0.7559055118 </inputs><motors> 0 0 15 100 46.2 90.0 </motors></point>
 <point><inputs> 0.7637795276 0.7637795276 0.7637795276 0.7637795276 0.7637795276 0.7637795276 </inputs><motors> 0 0 15 100 47.6 90.0 </motors></point>
 <point><inputs> 0.7716535433 0.7716535433 0.7716535433 0.7716535433 0.7716535433 0.7716535433 </inputs><motors> 0 0 15 100 49.0 90.0 </motors></point>
 <point><inputs> 0.7795275591 0.7795275591 0.7795275591 0.7795275591 0.7795275591 0.7795275591 </inputs><motors> 0 0 15 100 50.4 90.0 </motors></point>
 <point><inputs> 0.7874015748 0.7874015748 0.7874015748 0.7874015748 0.7874015748 0.7874015748 </inputs><motors> 0 0 15 100 51.9 90.0 </motors></point>
 <point><inputs> 0.7952755906 0.7952755906 0.7952755906 0.7952755906 0.7952755906 0.7952755906 </inputs><motors> 0 0 15 100 53.3 90.0 </motors></point>
 <point><inputs> 0.8031496063 0.8031496063 0.8031496063 0.8031496063 0.8031496063 0.8031496063 </inputs><motors> 0 0 15 100 54.7 90.0 </motors></point>
 <point><inputs> 0.811023622 0.811023622 0.811023622 0.811023622 0.811023622 0.811023622 </inputs><motors> 0 0 15 100 56.1 90.0 </motors></point>
 <point><inputs> 0.8188976378 0.8188976378 0.8188976378 0.8188976378 0.8188976378 0.8188976378 </inputs><motors> 0 0 15 100 57.5 90.0 </motors></point>
 <point><inputs> 0.8267716535 0.8267716535 0.8267716535 0.8267716535 0.8267716535 0.8267716535 </inputs><motors> 0 0 15 100 58.9 90.0 </motors></point>
 <point><inputs> 0.8346456693 0.8346456693 0.8346456693 0.8346456693 0.8346456693 0.8346456693 </inputs><motors> 0 0 15 100 60.3 90.0 </motors></point>
 <point><inputs> 0.842519685 0.842519685 0.842519685 0.842519685 0.842519685 0.842519685 </inputs><motors> 0 0 15 100 61.7 90.0 </motors></point>
 <point><inputs> 0.8503937008 0.8503937008 0.8503937008 0.8503937008 0.8503937008 0.8503937008 </inputs><motors> 0 0 15 100 63.2 90.0 </motors></point>
 <point><inputs> 0.8582677165 0.8582677165 0.8582677165 0.8582677165 0.8582677165 0.8582677165 </inputs><motors> 0 0 15 100 64.6 90.0 </motors></point>
 <point><inputs> 0.8661417323 0.8661417323 0.8661417323 0.8661417323 0.8661417323 0.8661417323 </inputs><motors> 0 0 15 100 66.0 90.0 </motors></point>
 <point><inputs> 0.874015748 0.874015748 0.874015748 0.874015748 0.874015748 0.874015748 </inputs><motors> 0 0 15 100 67.4 90.0 </motors></point>
 <point><inputs> 0.8818897638 0.8818897638 0.8818897638 0.8818897638 0.8818897638 0.8818897638 </inputs><motors> 0 0 15 100 68.8 90.0 </motors></point>
 <point><inputs> 0.8897637795 0.8897637795 0.8897637795 0.8897637795 0.8897637795 0.8897637795 </inputs><motors> 0 0 15 100 70.2 90.0 </motors></point>
 <point><inputs> 0.8976377953 0.8976377953 0.8976377953 0.8976377953 0.8976377953 0.8976377953 </inputs><motors> 0 0 15 100 71.6 90.0 </motors></point>
 <point><inputs> 0.905511811 0.905511811 0.905511811 0.905511811 0.905511811 0.905511811 </inputs><motors> 0 0 15 100 73.0 90.0 </motors></point>
 <point><inputs> 0.9133858268 0.9133858268 0.9133858268 0.9133858268 0.9133858268 0.9133858268 </inputs><motors> 0 0 15 100 74.5 90.0 </motors></point>
 <point><inputs> 0.9212598425 0.9212598425 0.9212598425 0.9212598425 0.9212598425 0.9212598425 </inputs><motors> 0 0 15 100 75.9 90.0 </motors></point>
 <point><inputs> 0.9291338583 0.9291338583 0.9291338583 0.9291338583 0.9291338583 0.9291338583 </inputs><motors> 0 0 15 100 77.3 90.0 </motors></point>
 <point><inputs> 0.937007874 0.937007874 0.937007874 0.937007874 0.937007874 0.937007874 </inputs><motors> 0 0 15 100 78.7 90.0 </motors></point>
 <point><inputs> 0.9448818898 0.9448818898 0.9448818898 0.9448818898 0.9448818898 0.9448818898 </inputs><motors> 0 0 15 100 80.1 90.0 </motors></point>
 <point><inputs> 0.9527559055 0.9527559055 0.9527559055 0.9527559055 0.9527559055 0.9527559055 </inputs><motors> 0 0 15 100 81.5 90.0 </motors></point>
 <point><inputs> 0.9606299213 0.9606299213 0.9606299213 0.9606299213 0.9606299213 0.9606299213 </inputs><motors> 0 0 15 100 82.9 90.0 </motors></point>
 <point><inputs> 0.968503937 0.968503937 0.968503937 0.968503937 0.968503937 0.968503937 </inputs><motors> 0 0 15 100 84.3 90.0 </motors></point>
 <point><inputs> 0.9763779528 0.9763779528 0.9763779528 0.9763779528 0.9763779528 0.9763779528 </inputs><motors> 0 0 15 100 85.8 90.0 </motors></point>
 <point><inputs> 0.9842519685 0.9842519685 0.9842519685 0.9842519685 0.9842519685 0.9842519685 </inputs><motors> 0 0 15 100 87.2 90.0 </motors></point>
 <point><inputs> 0.9921259843 0.9921259843 0.9921259843 0.9921259843 0.9921259843 0.9921259843 </inputs><motors> 0 0 15 100 88.6 90.0 </motors></point>
 <point><inputs> 1 1 1 1 1 1 </inputs><motors> 0 0 15 100 90.0 90.0 </motors></point>
</grasp>
<grasp name='FinePinchClosed'>
 <point><inputs> 0 0 0 0 0 0 </inputs><motors> 0 0 10.0 60.0 1.0 0.0 </motors></point>
 <point><inputs> 0.007874015748 0.007874015748 0.007874015748 0.007874015748 0.007874015748 0.007874015748 </inputs><motors> 0 0 10.0 62.6 1.0 9.0 </motors></point>
 <point><inputs> 0.0157480315 0.0157480315 0.0157480315 0.0157480315 0.0157480315 0.0157480315 </inputs><motors> 0 0 10.3 65.1 1.0 18.0 </motors></point>
 <point><inputs> 0.02362204724 0.02362204724 0.02362204724 0.02362204724 0.02362204724 0.02362204724 </inputs><motors> 0 0 10.6 67.7 1.0 27.0 </motors></point>
 <point><inputs> 0.03149606299 0.03149606299 0.03149606299 0.03149606299 0.03149606299 0.03149606299 </inputs><motors> 0 0 10.9 70.2 1.0 36.0 </motors></point>
 <point><inputs> 0.03937007874 0.03937007874 0.03937007874 0.03937007874 0.03937007874 0.03937007874 </inputs><motors> 0 0 11.2 72.8 1.0 45.0 </motors></point>
 <point><inputs> 0.04724409449 0.04724409449 0.04724409449 0.04724409449 0.04724409449 0.04724409449 </inputs><motors> 0 0 11.5 75.3 1.0 54.0 </motors></point>
 <point><inputs> 0.05511811024 0.05511811024 0.05511811024 0.05511811024 0.05511811024 0.05511811024 </inputs><motors> 0 0 11.7 77.9 1.0 63.0 </motors></point>
 <point><inputs> 0.06299212598 0.06299212598 0.06299212598 0.06299212598 0.06299212598 0.06299212598 </inputs><motors> 0 0 12.0 80.4 1.0 72.0 </motors></point>
 <point><inputs> 0.07086614173 0.07086614173 0.07086614173 0.07086614173 0.07086614173 0.07086614173 </inputs><motors> 0 0 12.3 83.0 1.0 81.0 </motors></point>
 <point><inputs> 0.07874015748 0.07874015748 0.07874015748 0.07874015748 0.07874015748 0.07874015748 </inputs><motors> 0 0 12.6 85.5 1.0 90.0 </motors></point>
 <point><inputs> 0.08661417323 0.08661417323 0.08661417323 0.08661417323 0.08661417323 0.08661417323 </inputs><motors> 0 0 12.9 87.75 1.0 90.0 </motors></point>
 <point><inputs> 0.09448818898 0.09448818898 0.09448818898 0.09448818898 0.09448818898 0.09448818898 </inputs><motors> 0 0 13.2 90.0 1.6 90.0 </motors></point>
 <point><inputs> 0.1023622047 0.1023622047 0.1023622047 0.1023622047 0.1023622047 0.1023622047 </inputs><motors> 0 0 13.5 90.0 2.1 90.0 </motors></point>
 <point><inputs> 0.1102362205 0.1102362205 0.1102362205 0.1102362205 0.1102362205 0.1102362205 </inputs><motors> 0 0 13.8 90.0 2.7 90.0 </motors></point>
 <point><inputs> 0.1181102362 0.1181102362 0.1181102362 0.1181102362 0.1181102362 0.1181102362 </inputs><motors> 0 0 14.1 90.0 3.3 90.0 </motors></point>
 <point><inputs> 0.125984252 0.125984252 0.125984252 0.125984252 0.125984252 0.125984252 </inputs><motors> 0 0 14.4 90.0 3.9 90.0 </motors></point>
 <point><inputs> 0.1338582677 0.1338582677 0.1338582677 0.1338582677 0.1338582677 0.1338582677 </inputs><motors> 0 0 14.6 90.0 4.4 90.0 </motors></point>
 <point><inputs> 0.1417322835 0.1417322835 0.1417322835 0.1417322835 0.1417322835 0.1417322835 </inputs><motors> 0 0 14.9 90.0 5.0 90.0 </motors></point>
 <point><inputs> 0.1496062992 0.1496062992 0.1496062992 0.1496062992 0.1496062992 0.1496062992 </inputs><motors> 0 0 15.2 90.0 5.6 90.0 </motors></point>
 <point><inputs> 0.157480315 0.157480315 0.157480315 0.157480315 0.157480315 0.157480315 </inputs><motors> 0 0 15.5 90.0 6.1 90.0 </motors></point>
 <point><inputs> 0.1653543307 0.1653543307 0.1653543307 0.1653543307 0.1653543307 0.1653543307 </inputs><motors> 0 0 15.8 90.0 6.7 90.0 </motors></point>
 <point><inputs> 0.1732283465 0.1732283465 0.1732283465 0.1732283465 0.1732283465 0.1732283465 </inputs><motors> 0 0 16.1 90.0 7.3 90.0 </motors></point>
 <point><inputs> 0.1811023622 0.1811023622 0.1811023622 0.1811023622 0.1811023622 0.1811023622 </inputs><motors> 0 0 16.4 90.0 7.8 90.0 </motors></point>
 <point><inputs> 0.188976378 0.188976378 0.188976378 0.188976378 0.188976378 0.188976378 </inputs><motors> 0 0 16.7 90.0 8.4 90.0 </motors></point>
 <point><inputs> 0.1968503937 0.1968503937 0.1968503937 0.1968503937 0.1968503937 0.1968503937 </inputs><motors> 0 0 17.0 90.0 9.0 90.0 </motors></point>
 <point><inputs> 0.2047244094 0.2047244094 0.2047244094 0.2047244094 0.2047244094 0.2047244094 </inputs><motors> 0 0 17.3 90.0 9.6 90.0 </motors></point>
 <point><inputs> 0.2125984252 0.2125984252 0.2125984252 0.2125984252 0.2125984252 0.2125984252 </inputs><motors> 0 0 17.6 90.0 10.1 90.0 </motors></point>
 <point><inputs> 0.2204724409 0.2204724409 0.2204724409 0.2204724409 0.2204724409 0.2204724409 </inputs><motors> 0 0 17.8 90.0 10.7 90.0 </motors></point>
 <point><inputs> 0.2283464567 0.2283464567 0.2283464567 0.2283464567 0.2283464567 0.2283464567 </inputs><motors> 0 0 18.1 90.0 11.3 90.0 </motors></point>
 <point><inputs> 0.2362204724 0.2362204724 0.2362204724 0.2362204724 0.2362204724 0.2362204724 </inputs><motors> 0 0 18.4 90.0 11.8 90.0 </motors></point>
 <point><inputs> 0.2440944882 0.2440944882 0.2440944882 0.2440944882 0.2440944882 0.2440944882 </inputs><motors> 0 0 18.7 90.0 12.4 90.0 </motors></point>
 <point><inputs> 0.2519685039 0.2519685039 0.2519685039 0.2519685039 0.2519685039 0.2519685039 </inputs><motors> 0 0 19.0 90.0 13.0 90.0 </motors></point>
 <point><inputs> 0.2598425197 0.2598425197 0.2598425197 0.2598425197 0.2598425197 0.2598425197 </inputs><motors> 0 0 19.3 90.0 13.5 90.0 </motors></point>
 <point><inputs> 0.2677165354 0.2677165354 0.2677165354 0.2677165354 0.2677165354 0.2677165354 </inputs><motors> 0 0 19.6 90.0 14.1 90.0 </motors></point>
 <point><inputs> 0.2755905512 0.2755905512 0.2755905512 0.2755905512 0.2755905512 0.2755905512 </inputs><motors> 0 0 19.9 90.0 14.7 90.0 </motors></point>
 <point><inputs> 0.2834645669 0.2834645669 0.2834645669 0.2834645669 0.2834645669 0.2834645669 </inputs><motors> 0 0 20.2 90.0 15.3 90.0 </motors></point>
 <point><inputs> 0.2913385827 0.2913385827 0.2913385827 0.2913385827 0.2913385827 0.2913385827 </inputs><motors> 0 0 20.5 90.0 15.8 90.0 </motors></point>
 <point><inputs> 0.2992125984 0.2992125984 0.2992125984 0.2992125984 0.2992125984 0.2992125984 </inputs><motors> 0 0 20.8 90.0 16.4 90.0 </motors></point>
 <point><inputs> 0.3070866142 0.3070866142 0.3070866142 0.3070866142 0.3070866142 0.3070866142 </inputs><motors> 0 0 21.0 90.0 17.0 90.0 </motors></point>
 <point><inputs> 0.3149606299 0.3149606299 0.3149606299 0.3149606299 0.3149606299 0.3149606299 </inputs><motors> 0 0 21.3 90.0 17.5 90.0 </motors></point>
 <point><inputs> 0.3228346457 0.3228346457 0.3228346457 0.3228346457 0.3228346457 0.3228346457 </inputs><motors> 0 0 21.6 90.0 18.1 90.0 </motors></point>
 <point><inputs> 0.3307086614 0.3307086614 0.3307086614 0.3307086614 0.3307086614 0.3307086614 </inputs><motors> 0 0 21.9 90.0 18.7 90.0 </motors></point>
 <point><inputs> 0.3385826772 0.3385826772 0.3385826772 0.3385826772 0.3385826772 0.3385826772 </inputs><motors> 0 0 22.2 90.0 19.2 90.0 </motors></point>
 <point><inputs> 0.3464566929 0.3464566929 0.3464566929 0.3464566929 0.3464566929 0.3464566929 </inputs><motors> 0 0 22.5 90.0 19.8 90.0 </motors></point>
 <point><inputs> 0.3543307087 0.3543307087 0.3543307087 0.3543307087 0.3543307087 0.3543307087 </inputs><motors> 0 0 22.8 90.0 20.4 90.0 </motors></point>
 <point><inputs> 0.3622047244 0.3622047244 0.3622047244 0.3622047244 0.3622047244 0.3622047244 </inputs><motors> 0 0 23.1 90.0 21.0 90.0 </motors></point>
 <point><inputs> 0.3700787402 0.3700787402 0.3700787402 0.3700787402 0.3700787402 0.3700787402 </inputs><motors> 0 0 23.4 90.0 21.5 90.0 </motors></point>
 <point><inputs> 0.3779527559 0.3779527559 0.3779527559 0.3779527559 0.3779527559 0.3779527559 </inputs><motors> 0 0 23.7 90.0 22.1 90.0 </motors></point>
 <point><inputs> 0.3858267717 0.3858267717 0.3858267717 0.3858267717 0.3858267717 0.3858267717 </inputs><motors> 0 0 23.9 90.0 22.7 90.0 </motors></point>
 <point><inputs> 0.3937007874 0.3937007874 0.3937007874 0.3937007874 0.3937007874 0.3937007874 </inputs><motors> 0 0 24.2 90.0 23.2 90.0 </motors></point>
 <point><inputs> 0.4015748031 0.4015748031 0.4015748031 0.4015748031 0.4015748031 0.4015748031 </inputs><motors> 0 0 24.5 90.0 23.8 90.0 </motors></point>
 <point><inputs> 0.4094488189 0.4094488189 0.4094488189 0.4094488189 0.4094488189 0.4094488189 </inputs><motors> 0 0 24.8 90.0 24.4 90.0 </motors></point>
 <point><inputs> 0.4173228346 0.4173228346 0.4173228346 0.4173228346 0.4173228346 0.4173228346 </inputs><motors> 0 0 25.1 90.0 24.9 90.0 </motors></point>
 <point><inputs> 0.4251968504 0.4251968504 0.4251968504 0.4251968504 0.4251968504 0.4251968504 </inputs><motors> 0 0 25.4 90.0 25.5 90.0 </motors></point>
 <point><inputs> 0.4330708661 0.4330708661 0.4330708661 0.4330708661 0.4330708661 0.4330708661 </inputs><motors> 0 0 25.7 90.0 26.1 90.0 </motors></point>
 <point><inputs> 0.4409448819 0.4409448819 0.4409448819 0.4409448819 0.4409448819 0.4409448819 </inputs><motors> 0 0 26.0 90.0 26.7 90.0 </motors></point>
 <point><inputs> 0.4488188976 0.4488188976 0.4488188976 0.4488188976 0.4488188976 0.4488188976 </inputs><motors> 0 0 26.3 90.0 27.2 90.0 </motors></point>
 <point><inputs> 0.4566929134 0.4566929134 0.4566929134 0.4566929134 0.4566929134 0.4566929134 </inputs><motors> 0 0 26.6 90.0 27.2 90.0 </motors></point>
 <point><inputs> 0.4645669291 0.4645669291 0.4645669291 0.4645669291 0.4645669291 0.4645669291 </inputs><motors> 0 0 26.9 90.0 27.8 90.0 </motors></point>
 <point><inputs> 0.4724409449 0.4724409449 0.4724409449 0.4724409449 0.4724409449 0.4724409449 </inputs><motors> 0 0 27.1 90.0 28.4 90.0 </motors></point>
 <point><inputs> 0.4803149606 0.4803149606 0.4803149606 0.4803149606 0.4803149606 0.4803149606 </inputs><motors> 0 0 27.4 90.0 28.9 90.0 </motors></point>
 <point><inputs> 0.4881889764 0.4881889764 0.4881889764 0.4881889764 0.4881889764 0.4881889764 </inputs><motors> 0 0 27.7 90.0 29.5 90.0 </motors></point>
 <point><inputs> 0.4960629921 0.4960629921 0.4960629921 0.4960629921 0.4960629921 0.4960629921 </inputs><motors> 0 0 28.0 90.0 30.1 90.0 </motors></point>
 <point><inputs> 0.5039370079 0.5039370079 0.5039370079 0.5039370079 0.5039370079 0.5039370079 </inputs><motors> 0 0 28.3 90.0 30.6 90.0 </motors></point>
 <point><inputs> 0.5118110236 0.5118110236 0.5118110236 0.5118110236 0.5118110236 0.5118110236 </inputs><motors> 0 0 28.6 90.0 31.2 90.0 </motors></point>
 <point><inputs> 0.5196850394 0.5196850394 0.5196850394 0.5196850394 0.5196850394 0.5196850394 </inputs><motors> 0 0 28.9 90.0 31.8 90.0 </motors></point>
 <point><inputs> 0.5275590551 0.5275590551 0.5275590551 0.5275590551 0.5275590551 0.5275590551 </inputs><motors> 0 0 29.2 90.0 32.4 90.0 </motors></point>
 <point><inputs> 0.5354330709 0.5354330709 0.5354330709 0.5354330709 0.5354330709 0.5354330709 </inputs><motors> 0 0 29.5 90.0 32.9 90.0 </motors></point>
 <point><inputs> 0.5433070866 0.5433070866 0.5433070866 0.5433070866 0.5433070866 0.5433070866 </inputs><motors> 0 0 29.8 90.0 33.5 90.0 </motors></point>
 <point><inputs> 0.5511811024 0.5511811024 0.5511811024 0.5511811024 0.5511811024 0.5511811024 </inputs><motors> 0 0 30.1 90.0 34.1 90.0 </motors></point>
 <point><inputs> 0.5590551181 0.5590551181 0.5590551181 0.5590551181 0.5590551181 0.5590551181 </inputs><motors> 0 0 30.3 90.0 34.6 90.0 </motors></point>
 <point><inputs> 0.5669291339 0.5669291339 0.5669291339 0.5669291339 0.5669291339 0.5669291339 </inputs><motors> 0 0 30.6 90.0 35.2 90.0 </motors></point>
 <point><inputs> 0.5748031496 0.5748031496 0.5748031496 0.5748031496 0.5748031496 0.5748031496 </inputs><motors> 0 0 30.9 90.0 35.8 90.0 </motors></point>
 <point><inputs> 0.5826771654 0.5826771654 0.5826771654 0.5826771654 0.5826771654 0.5826771654 </inputs><motors> 0 0 31.2 90.0 36.3 90.0 </motors></point>
 <point><inputs> 0.5905511811 0.5905511811 0.5905511811 0.5905511811 0.5905511811 0.5905511811 </inputs><motors> 0 0 31.5 90.0 36.9 90.0 </motors></point>
 <point><inputs> 0.5984251969 0.5984251969 0.5984251969 0.5984251969 0.5984251969 0.5984251969 </inputs><motors> 0 0 31.8 90.0 37.5 90.0 </motors></point>
 <point><inputs> 0.6062992126 0.6062992126 0.6062992126 0.6062992126 0.6062992126 0.6062992126 </inputs><motors> 0 0 32.1 90.0 38.1 90.0 </motors></point>
 <point><inputs> 0.6141732283 0.6141732283 0.6141732283 0.6141732283 0.6141732283 0.6141732283 </inputs><motors> 0 0 32.4 90.0 38.6 90.0 </motors></point>
 <point><inputs> 0.6220472441 0.6220472441 0.6220472441 0.6220472441 0.6220472441 0.6220472441 </inputs><motors> 0 0 32.7 90.0 39.2 90.0 </motors></point>
 <point><inputs> 0.6299212598 0.6299212598 0.6299212598 0.6299212598 0.6299212598 0.6299212598 </inputs><motors> 0 0 33.0 90.0 39.8 90.0 </motors></point>
 <point><inputs> 0.6377952756 0.6377952756 0.6377952756 0.6377952756 0.6377952756 0.6377952756 </inputs><motors> 0 0 33.2 90.0 40.3 90.0 </motors></point>
 <point><inputs> 0.6456692913 0.6456692913 0.6456692913 0.6456692913 0.6456692913 0.6456692913 </inputs><motors> 0 0 33.5 90.0 40.9 90.0 </motors></point>
 <point><inputs> 0.6535433071 0.6535433071 0.6535433071 0.6535433071 0.6535433071 0.6535433071 </inputs><motors> 0 0 33.8 90.0 41.5 90.0 </motors></point>
 <point><inputs> 0.6614173228 0.6614173228 0.6614173228 0.6614173228 0.6614173228 0.6614173228 </inputs><motors> 0 0 34.1 90.0 42.0 90.0 </motors></point>
 <point><inputs> 0.6692913386 0.6692913386 0.6692913386 0.6692913386 0.6692913386 0.6692913386 </inputs><motors> 0 0 34.4 90.0 42.6 90.0 </motors></point>
 <point><inputs> 0.6771653543 0.6771653543 0.6771653543 0.6771653543 0.6771653543 0.6771653543 </inputs><motors> 0 0 34.7 90.0 43.2 90.0 </motors></point>
 <point><inputs> 0.6850393701 0.6850393701 0.6850393701 0.6850393701 0.6850393701 0.6850393701 </inputs><motors> 0 0 35.0 90.0 43.8 90.0 </motors></point>
 <point><inputs> 0.6929133858 0.6929133858 0.6929133858 0.6929133858 0.6929133858 0.6929133858 </inputs><motors> 0 0 35.3 90.0 44.3 90.0 </motors></point>
 <point><inputs> 0.7007874016 0.7007874016 0.7007874016 0.7007874016 0.7007874016 0.7007874016 </inputs><motors> 0 0 35.6 90.0 44.9 90.0 </motors></point>
 <point><inputs> 0.7086614173 0.7086614173 0.7086614173 0.7086614173 0.7086614173 0.7086614173 </inputs><motors> 0 0 35.9 90.0 45.5 90.0 </motors></point>
 <point><inputs> 0.7165354331 0.7165354331 0.7165354331 0.7165354331 0.7165354331 0.7165354331 </inputs><motors> 0 0 36.2 90.0 46.0 90.0 </motors></point>
 <point><inputs> 0.7244094488 0.7244094488 0.7244094488 0.7244094488 0.7244094488 0.7244094488 </inputs><motors> 0 0 36.4 90.0 46.6 90.0 </motors></point>
 <point><inputs> 0.7322834646 0.7322834646 0.7322834646 0.7322834646 0.7322834646 0.7322834646 </inputs><motors> 0 0 36.7 90.0 47.2 90.0 </motors></point>
 <point><inputs> 0.7401574803 0.7401574803 0.7401574803 0.7401574803 0.7401574803 0.7401574803 </inputs><motors> 0 0 37.0 90.0 47.7 90.0 </motors></point>
 <point><inputs> 0.7480314961 0.7480314961 0.7480314961 0.7480314961 0.7480314961 0.7480314961 </inputs><motors> 0 0 37.3 90.0 48.3 90.0 </motors></point>
 <point><inputs> 0.7559055118 0.7559055118 0.7559055118 0.7559055118 0.7559055118 0.7559055118 </inputs><motors> 0 0 37.6 90.0 48.9 90.0 </motors></point>
 <point><inputs> 0.7637795276 0.7637795276 0.7637795276 0.7637795276 0.7637795276 0.7637795276 </inputs><motors> 0 0 37.9 90.0 49.5 90.0 </motors></point>
 <point><inputs> 0.7716535433 0.7716535433 0.7716535433 0.7716535433 0.7716535433 0.7716535433 </inputs><motors> 0 0 38.2 90.0 50.0 90.0 </motors></point>
 <point><inputs> 0.7795275591 0.7795275591 0.7795275591 0.7795275591 0.7795275591 0.7795275591 </inputs><motors> 0 0 38.5 90.0 50.6 90.0 </motors></point>
 <point><inputs> 0.7874015748 0.7874015748 0.7874015748 0.7874015748 0.7874015748 0.7874015748 </inputs><motors> 0 0 38.8 90.0 51.2 90.0 </motors></point>
 <point><inputs> 0.7952755906 0.7952755906 0.7952755906 0.7952755906 0.7952755906 0.7952755906 </inputs><motors> 0 0 39.1 90.0 51.7 90.0 </motors></point>
 <point><inputs> 0.8031496063 0.8031496063 0.8031496063 0.8031496063 0.8031496063 0.8031496063 </inputs><motors> 0 0 39.4 90.0 52.3 90.0 </motors></point>
 <point><inputs> 0.811023622 0.811023622 0.811023622 0.811023622 0.811023622 0.811023622 </inputs><motors> 0 0 39.6 90.0 52.9 90.0 </motors></point>
 <point><inputs> 0.8188976378 0.8188976378 0.8188976378 0.8188976378 0.8188976378 0.8188976378 </inputs><motors> 0 0 39.9 90.0 53.4 90.0 </motors></point>
 <point><inputs> 0.8267716535 0.8267716535 0.8267716535 0.8267716535 0.8267716535 0.8267716535 </inputs><motors> 0 0 40.2 90.0 54.0 90.0 </motors></point>
 <point><inputs> 0.8346456693 0.8346456693 0.8346456693 0.8346456693 0.8346456693 0.8346456693 </inputs><motors> 0 0 40.5 90.0 54.6 90.0 </motors></point>
 <point><inputs> 0.842519685 0.842519685 0.842519685 0.842519685 0.842519685 0.842519685 </inputs><motors> 0 0 40.8 90.0 55.2 90.0 </motors></point>
 <point><inputs> 0.8503937008 0.8503937008 0.8503937008 0.8503937008 0.8503937008 0.8503937008 </inputs><motors> 0 0 41.1 90.0 55.7 90.0 </motors></point>
 <point><inputs> 0.8582677165 0.8582677165 0.8582677165 0.8582677165 0.8582677165 0.8582677165 </inputs><motors> 0 0 41.4 90.0 56.3 90.0 </motors></point>
 <point><inputs> 0.8661417323 0.8661417323 0.8661417323 0.8661417323 0.8661417323 0.8661417323 </inputs><motors> 0 0 41.7 90.0 56.9 90.0 </motors></point>
 <point><inputs> 0.874015748 0.874015748 0.874015748 0.874015748 0.874015748 0.874015748 </inputs><motors> 0 0 42.0 90.0 57.4 90.0 </motors></point>
 <point><inputs> 0.8818897638 0.8818897638 0.8818897638 0.8818897638 0.8818897638 0.8818897638 </inputs><motors> 0 0 42.3 90.0 58.0 90.0 </motors></point>
 <point><inputs> 0.8897637795 0.8897637795 0.8897637795 0.8897637795 0.8897637795 0.8897637795 </inputs><motors> 0 0 42.5 90.0 58.6 90.0 </motors></point>
 <point><inputs> 0.8976377953 0.8976377953 0.8976377953 0.8976377953 0.8976377953 0.8976377953 </inputs><motors> 0 0 42.8 90.0 59.1 90.0 </motors></point>
 <point><inputs> 0.905511811 0.905511811 0.905511811 0.905511811 0.905511811 0.905511811 </inputs><motors> 0 0 43.1 90.0 59.7 90.0 </motors></point>
 <point><inputs> 0.9133858268 0.9133858268 0.9133858268 0.9133858268 0.9133858268 0.9133858268 </inputs><motors> 0 0 43.4 90.0 60.3 90.0 </motors></point>
 <point><inputs> 0.9212598425 0.9212598425 0.9212598425 0.9212598425 0.9212598425 0.9212598425 </inputs><motors> 0 0 43.7 90.0 60.9 90.0 </motors></point>
 <point><inputs> 0.9291338583 0.9291338583 0.9291338583 0.9291338583 0.9291338583 0.9291338583 </inputs><motors> 0 0 44.0 90.0 62.0 90.0 </motors></point>
 <point><inputs> 0.937007874 0.937007874 0.937007874 0.937007874 0.937007874 0.937007874 </inputs><motors> 0 0 44.0 90.0 63.0 90.0 </motors></point>
 <point><inputs> 0.9448818898 0.9448818898 0.9448818898 0.9448818898 0.9448818898 0.9448818898 </inputs><motors> 0 0 44.0 90.0 64.0 90.0 </motors></point>
 <point><inputs> 0.9527559055 0.9527559055 0.9527559055 0.9527559055 0.9527559055 0.9527559055 </inputs><motors> 0 0 44.0 90.0 65.0 90.0 </motors></point>
 <point><inputs> 0.9606299213 0.9606299213 0.9606299213 0.9606299213 0.9606299213 0.9606299213 </inputs><motors> 0 0 44.0 90.0 66.0 90.0 </motors></point>
 <point><inputs> 0.968503937 0.968503937 0.968503937 0.968503937 0.968503937 0.968503937 </inputs><motors> 0 0 44.0 90.0 67.0 90.0 </motors></point>
 <point><inputs> 0.9763779528 0.9763779528 0.9763779528 0.9763779528 0.9763779528 0.9763779528 </inputs><motors> 0 0 44.0 90.0 68.0 90.0 </motors></point>
 <point><inputs> 0.9842519685 0.9842519685 0.9842519685 0.9842519685 0.9842519685 0.9842519685 </inputs><motors> 0 0 44.0 90.0 69.0 90.0 </motors></point>
 <point><inputs> 0.9921259843 0.9921259843 0.9921259843 0.9921259843 0.9921259843 0.9921259843 </inputs><motors> 0 0 44.0 90.0 70.0 90.0 </motors></point>
 <point><inputs> 1 1 1 1 1 1 </inputs><motors> 0 0 44.0 90.0 71.0 90.0 </motors></point>
</grasp>
<grasp name='FinePinchOpen'>
 <point><inputs> 0 0 0 0 0 0 </inputs><motors> 0 0 10.0 60.0 1.0 0.0 </motors></point>
 <point><inputs> 0.007874015748 0.007874015748 0.007874015748 0.007874015748 0.007874015748 0.007874015748 </inputs><motors> 0 0 10.0 62.6 1.0 0.0 </motors></point>
 <point><inputs> 0.0157480315 0.0157480315 0.0157480315 0.0157480315 0.0157480315 0.0157480315 </inputs><motors> 0 0 10.3 65.1 1.0 0.0 </motors></point>
 <point><inputs> 0.02362204724 0.02362204724 0.02362204724 0.02362204724 0.02362204724 0.02362204724 </inputs><motors> 0 0 10.6 67.7 1.0 0.0 </motors></point>
 <point><inputs> 0.03149606299 0.03149606299 0.03149606299 0.03149606299 0.03149606299 0.03149606299 </inputs><motors> 0 0 10.9 70.2 1.0 0.0 </motors></point>
 <point><inputs> 0.03937007874 0.03937007874 0.03937007874 0.03937007874 0.03937007874 0.03937007874 </inputs><motors> 0 0 11.2 72.8 1.0 0.0 </motors></point>
 <point><inputs> 0.04724409449 0.04724409449 0.04724409449 0.04724409449 0.04724409449 0.04724409449 </inputs><motors> 0 0 11.5 75.3 1.0 0.0 </motors></point>
 <point><inputs> 0.05511811024 0.05511811024 0.05511811024 0.05511811024 0.05511811024 0.05511811024 </inputs><motors> 0 0 11.7 77.9 1.0 0.0 </motors></point>
 <point><inputs> 0.06299212598 0.06299212598 0.06299212598 0.06299212598 0.06299212598 0.06299212598 </inputs><motors> 0 0 12.0 80.4 1.0 0.0 </motors></point>
 <point><inputs> 0.07086614173 0.07086614173 0.07086614173 0.07086614173 0.07086614173 0.07086614173 </inputs><motors> 0 0 12.3 83.0 1.0 0.0 </motors></point>
 <point><inputs> 0.07874015748 0.07874015748 0.07874015748 0.07874015748 0.07874015748 0.07874015748 </inputs><motors> 0 0 12.6 85.5 1.0 0.0 </motors></point>
 <point><inputs> 0.08661417323 0.08661417323 0.08661417323 0.08661417323 0.08661417323 0.08661417323 </inputs><motors> 0 0 12.9 90.0 1.0 0.0 </motors></point>
 <point><inputs> 0.09448818898 0.09448818898 0.09448818898 0.09448818898 0.09448818898 0.09448818898 </inputs><motors> 0 0 13.2 90.0 1.6 0.0 </motors></point>
 <point><inputs> 0.1023622047 0.1023622047 0.1023622047 0.1023622047 0.1023622047 0.1023622047 </inputs><motors> 0 0 13.5 90.0 2.1 0.0 </motors></point>
 <point><inputs> 0.1102362205 0.1102362205 0.1102362205 0.1102362205 0.1102362205 0.1102362205 </inputs><motors> 0 0 13.8 90.0 2.7 0.0 </motors></point>
 <point><inputs> 0.1181102362 0.1181102362 0.1181102362 0.1181102362 0.1181102362 0.1181102362 </inputs><motors> 0 0 14.1 90.0 3.3 0.0 </motors></point>
 <point><inputs> 0.125984252 0.125984252 0.125984252 0.125984252 0.125984252 0.125984252 </inputs><motors> 0 0 14.4 90.0 3.9 0.0 </motors></point>
 <point><inputs> 0.1338582677 0.1338582677 0.1338582677 0.1338582677 0.1338582677 0.1338582677 </inputs><motors> 0 0 14.6 90.0 4.4 0.0 </motors></point>
 <point><inputs> 0.1417322835 0.1417322835 0.1417322835 0.1417322835 0.1417322835 0.1417322835 </inputs><motors> 0 0 14.9 90.0 5.0 0.0 </motors></point>
 <point><inputs> 0.1496062992 0.1496062992 0.1496062992 0.1496062992 0.1496062992 0.1496062992 </inputs><motors> 0 0 15.2 90.0 5.6 0.0 </motors></point>
 <point><inputs> 0.157480315 0.157480315 0.157480315 0.157480315 0.157480315 0.157480315 </inputs><motors> 0 0 15.5 90.0 6.1 0.0 </motors></point>
 <point><inputs> 0.1653543307 0.1653543307 0.1653543307 0.1653543307 0.1653543307 0.1653543307 </inputs><motors> 0 0 15.8 90.0 6.7 0.0 </motors></point>
 <point><inputs> 0.1732283465 0.1732283465 0.1732283465 0.1732283465 0.1732283465 0.1732283465 </inputs><motors> 0 0 16.1 90.0 7.3 0.0 </motors></point>
 <point><inputs> 0.1811023622 0.1811023622 0.1811023622 0.1811023622 0.1811023622 0.1811023622 </inputs><motors> 0 0 16.4 90.0 7.8 0.0 </motors></point>
 <point><inputs> 0.188976378 0.188976378 0.188976378 0.188976378 0.188976378 0.188976378 </inputs><motors> 0 0 16.7 90.0 8.4 0.0 </motors></point>
 <point><inputs> 0.1968503937 0.1968503937 0.1968503937 0.1968503937 0.1968503937 0.1968503937 </inputs><motors> 0 0 17.0 90.0 9.0 0.0 </motors></point>
 <point><inputs> 0.2047244094 0.2047244094 0.2047244094 0.2047244094 0.2047244094 0.2047244094 </inputs><motors> 0 0 17.3 90.0 9.6 0.0 </motors></point>
 <point><inputs> 0.2125984252 0.2125984252 0.2125984252 0.2125984252 0.2125984252 0.2125984252 </inputs><motors> 0 0 17.6 90.0 10.1 0.0 </motors></point>
 <point><inputs> 0.2204724409 0.2204724409 0.2204724409 0.2204724409 0.2204724409 0.2204724409 </inputs><motors> 0 0 17.8 90.0 10.7 0.0 </motors></point>
 <point><inputs> 0.2283464567 0.2283464567 0.2283464567 0.2283464567 0.2283464567 0.2283464567 </inputs><motors> 0 0 18.1 90.0 11.3 0.0 </motors></point>
 <point><inputs> 0.2362204724 0.2362204724 0.2362204724 0.2362204724 0.2362204724 0.2362204724 </inputs><motors> 0 0 18.4 90.0 11.8 0.0 </motors></point>
 <point><inputs> 0.2440944882 0.2440944882 0.2440944882 0.2440944882 0.2440944882 0.2440944882 </inputs><motors> 0 0 18.7 90.0 12.4 0.0 </motors></point>
 <point><inputs> 0.2519685039 0.2519685039 0.2519685039 0.2519685039 0.2519685039 0.2519685039 </inputs><motors> 0 0 19.0 90.0 13.0 0.0 </motors></point>
 <point><inputs> 0.2598425197 0.2598425197 0.2598425197 0.2598425197 0.2598425197 0.2598425197 </inputs><motors> 0 0 19.3 90.0 13.5 0.0 </motors></point>
 <point><inputs> 0.2677165354 0.2677165354 0.2677165354 0.2677165354 0.2677165354 0.2677165354 </inputs><motors> 0 0 19.6 90.0 14.1 0.0 </motors></point>
 <point><inputs> 0.2755905512 0.2755905512 0.2755905512 0.2755905512 0.2755905512 0.2755905512 </inputs><motors> 0 0 19.9 90.0 14.7 0.0 </motors></point>
 <point><inputs> 0.2834645669 0.2834645669 0.2834645669 0.2834645669 0.2834645669 0.2834645669 </inputs><motors> 0 0 20.2 90.0 15.3 0.0 </motors></point>
 <point><inputs> 0.2913385827 0.2913385827 0.2913385827 0.2913385827 0.2913385827 0.2913385827 </inputs><motors> 0 0 20.5 90.0 15.8 0.0 </motors></point>
 <point><inputs> 0.2992125984 0.2992125984 0.2992125984 0.2992125984 0.2992125984 0.2992125984 </inputs><motors> 0 0 20.8 90.0 16.4 0.0 </motors></point>
 <point><inputs> 0.3070866142 0.3070866142 0.3070866142 0.3070866142 0.3070866142 0.3070866142 </inputs><motors> 0 0 21.0 90.0 17.0 0.0 </motors></point>
 <point><inputs> 0.3149606299 0.3149606299 0.3149606299 0.3149606299 0.3149606299 0.3149606299 </inputs><motors> 0 0 21.3 90.0 17.5 0.0 </motors></point>
 <point><inputs> 0.3228346457 0.3228346457 0.3228346457 0.3228346457 0.3228346457 0.3228346457 </inputs><motors> 0 0 21.6 90.0 18.1 0.0 </motors></point>
 <point><inputs> 0.3307086614 0.3307086614 0.3307086614 0.3307086614 0.3307086614 0.3307086614 </inputs><motors> 0 0 21.9 90.0 18.7 0.0 </motors></point>
 <point><inputs> 0.3385826772 0.3385826772 0.3385826772 0.3385826772 0.3385826772 0.3385826772 </inputs><motors> 0 0 22.2 90.0 19.2 0.0 </motors></point>
 <point><inputs> 0.3464566929 0.3464566929 0.3464566929 0.3464566929 0.3464566929 0.3464566929 </inputs><motors> 0 0 22.5 90.0 19.8 0.0 </motors></point>
 <point><inputs> 0.3543307087 0.3543307087 0.3543307087 0.3543307087 0.3543307087 0.3543307087 </inputs><motors> 0 0 22.8 90.0 20.4 0.0 </motors></point>
 <point><inputs> 0.3622047244 0.3622047244 0.3622047244 0.3622047244 0.3622047244 0.3622047244 </inputs><motors> 0 0 23.1 90.0 21.0 0.0 </motors></point>
 <point><inputs> 0.3700787402 0.3700787402 0.3700787402 0.3700787402 0.3700787402 0.3700787402 </inputs><motors> 0 0 23.4 90.0 21.5 0.0 </motors></point>
 <point><inputs> 0.3779527559 0.3779527559 0.3779527559 0.3779527559 0.3779527559 0.3779527559 </inputs><motors> 0 0 23.7 90.0 22.1 0.0 </motors></point>
 <point><inputs> 0.3858267717 0.3858267717 0.3858267717 0.3858267717 0.3858267717 0.3858267717 </inputs><motors> 0 0 23.9 90.0 22.7 0.0 </motors></point>
 <point><inputs> 0.3937007874 0.3937007874 0.3937007874 0.3937007874 0.3937007874 0.3937007874 </inputs><motors> 0 0 24.2 90.0 23.2 0.0 </motors></point>
 <point><inputs> 0.4015748031 0.4015748031 0.4015748031 0.4015748031 0.4015748031 0.4015748031 </inputs><motors> 0 0 24.5 90.0 23.8 0.0 </motors></point>
 <point><inputs> 0.4094488189 0.4094488189 0.4094488189 0.4094488189 0.4094488189 0.4094488189 </inputs><motors> 0 0 24.8 90.0 24.4 0.0 </motors></point>
 <point><inputs> 0.4173228346 0.4173228346 0.4173228346 0.4173228346 0.4173228346 0.4173228346 </inputs><motors> 0 0 25.1 90.0 24.9 0.0 </motors></point>
 <point><inputs> 0.4251968504 0.4251968504 0.4251968504 0.4251968504 0.4251968504 0.4251968504 </inputs><motors> 0 0 25.4 90.0 25.5 0.0 </motors></point>
 <point><inputs> 0.4330708661 0.4330708661 0.4330708661 0.4330708661 0.4330708661 0.4330708661 </inputs><motors> 0 0 25.7 90.0 26.1 0.0 </motors></point>
 <point><inputs> 0.4409448819 0.4409448819 0.4409448819 0.4409448819 0.4409448819 0.4409448819 </inputs><motors> 0 0 26.0 90.0 26.7 0.0 </motors></point>
 <point><inputs> 0.4488188976 0.4488188976 0.4488188976 0.4488188976 0.4488188976 0.4488188976 </inputs><motors> 0 0 26.3 90.0 27.2 0.0 </motors></point>
 <point><inputs> 0.4566929134 0.4566929134 0.4566929134 0.4566929134 0.4566929134 0.4566929134 </inputs><motors> 0 0 26.6 90.0 27.2 0.0 </motors></point>
 <point><inputs> 0.4645669291 0.4645669291 0.4645669291 0.4645669291 0.4645669291 0.4645669291 </inputs><motors> 0 0 26.9 90.0 27.8 0.0 </motors></point>
 <point><inputs> 0.4724409449 0.4724409449 0.4724409449 0.4724409449 0.4724409449 0.4724409449 </inputs><motors> 0 0 27.1 90.0 28.4 0.0 </motors></point>
 <point><inputs> 0.4803149606 0.4803149606 0.4803149606 0.4803149606 0.4803149606 0.4803149606 </inputs><motors> 0 0 27.4 90.0 28.9 0.0 </motors></point>
 <point><inputs> 0.4881889764 0.4881889764 0.4881889764 0.4881889764 0.4881889764 0.4881889764 </inputs><motors> 0 0 27.7 90.0 29.5 0.0 </motors></point>
 <point><inputs> 0.4960629921 0.4960629921 0.4960629921 0.4960629921 0.4960629921 0.4960629921 </inputs><motors> 0 0 28.0 90.0 30.1 0.0 </motors></point>
 <point><inputs> 0.5039370079 0.5039370079 0.5039370079 0.5039370079 0.5039370079 0.5039370079 </inputs><motors> 0 0 28.3 90.0 30.6 0.0 </motors></point>
 <point><inputs> 0.5118110236 0.5118110236 0.5118110236 0.5118110236 0.5118110236 0.5118110236 </inputs><motors> 0 0 28.6 90.0 31.2 0.0 </motors></point>
 <point><inputs> 0.5196850394 0.5196850394 0.5196850394 0.5196850394 0.5196850394 0.5196850394 </inputs><motors> 0 0 28.9 90.0 31.8 0.0 </motors></point>
 <point><inputs> 0.5275590551 0.5275590551 0.5275590551 0.5275590551 0.5275590551 0.5275590551 </inputs><motors> 0 0 29.2 90.0 32.4 0.0 </motors></point>
 <point><inputs> 0.5354330709 0.5354330709 0.5354330709 0.5354330709 0.5354330709 0.5354330709 </inputs><motors> 0 0 29.5 90.0 32.9 0.0 </motors></point>
 <point><inputs> 0.5433070866 0.5433070866 0.5433070866 0.5433070866 0.5433070866 0.5433070866 </inputs><motors> 0 0 29.8 90.0 33.5 0.0 </motors></point>
 <point><inputs> 0.5511811024 0.5511811024 0.5511811024 0.5511811024 0.5511811024 0.5511811024 </inputs><motors> 0 0 30.1 90.0 34.1 0.0 </motors></point>
 <point><inputs> 0.5590551181 0.5590551181 0.5590551181 0.5590551181 0.5590551181 0.5590551181 </inputs><motors> 0 0 30.3 90.0 34.6 0.0 </motors></point>
 <point><inputs> 0.5669291339 0.5669291339 0.5669291339 0.5669291339 0.5669291339 0.5669291339 </inputs><motors> 0 0 30.6 90.0 35.2 0.0 </motors></point>
 <point><inputs> 0.5748031496 0.5748031496 0.5748031496 0.5748031496 0.5748031496 0.5748031496 </inputs><motors> 0 0 30.9 90.0 35.8 0.0 </motors></point>
 <point><inputs> 0.5826771654 0.5826771654 0.5826771654 0.5826771654 0.5826771654 0.5826771654 </inputs><motors> 0 0 31.2 90.0 36.3 0.0 </motors></point>
 <point><inputs> 0.5905511811 0.5905511811 0.5905511811 0.5905511811 0.5905511811 0.5905511811 </inputs><motors> 0 0 31.5 90.0 36.9 0.0 </motors></point>
 <point><inputs> 0.5984251969 0.5984251969 0.5984251969 0.5984251969 0.5984251969 0.5984251969 </inputs><motors> 0 0 31.8 90.0 37.5 0.0 </motors></point>
 <point><inputs> 0.6062992126 0.6062992126 0.6062992126 0.6062992126 0.6062992126 0.6062992126 </inputs><motors> 0 0 32.1 90.0 38.1 0.0 </motors></point>
 <point><inputs> 0.6141732283 0.6141732283 0.6141732283 0.6141732283 0.6141732283 0.6141732283 </inputs><motors> 0 0 32.4 90.0 38.6 0.0 </motors></point>
 <point><inputs> 0.6220472441 0.6220472441 0.6220472441 0.6220472441 0.6220472441 0.6220472441 </inputs><motors> 0 0 32.7 90.0 39.2 0.0 </motors></point>
 <point><inputs> 0.6299212598 0.6299212598 0.6299212598 0.6299212598 0.6299212598 0.6299212598 </inputs><motors> 0 0 33.0 90.0 39.8 0.0 </motors></point>
 <point><inputs> 0.6377952756 0.6377952756 0.6377952756 0.6377952756 0.6377952756 0.6377952756 </inputs><motors> 0 0 33.2 90.0 40.3 0.0 </motors></point>
 <point><inputs> 0.6456692913 0.6456692913 0.6456692913 0.6456692913 0.6456692913 0.6456692913 </inputs><motors> 0 0 33.5 90.0 40.9 0.0 </motors></point>
 <point><inputs> 0.6535433071 0.6535433071 0.6535433071 0.6535433071 0.6535433071 0.6535433071 </inputs><motors> 0 0 33.8 90.0 41.5 0.0 </motors></point>
 <point><inputs> 0.6614173228 0.6614173228 0.6614173228 0.6614173228 0.6614173228 0.6614173228 </inputs><motors> 0 0 34.1 90.0 42.0 0.0 </motors></point>
 <point><inputs> 0.6692913386 0.6692913386 0.6692913386 0.6692913386 0.6692913386 0.6692913386 </inputs><motors> 0 0 34.4 90.0 42.6 0.0 </motors></point>
 <point><inputs> 0.6771653543 0.6771653543 0.6771653543 0.6771653543 0.6771653543 0.6771653543 </inputs><motors> 0 0 34.7 90.0 43.2 0.0 </motors></point>
 <point><inputs> 0.6850393701 0.6850393701 0.6850393701 0.6850393701 0.6850393701 0.6850393701 </inputs><motors> 0 0 35.0 90.0 43.8 0.0 </motors></point>
 <point><inputs> 0.6929133858 0.6929133858 0.6929133858 0.6929133858 0.6929133858 0.6929133858 </inputs><motors> 0 0 35.3 90.0 44.3 0.0 </motors></point>
 <point><inputs> 0.7007874016 0.7007874016 0.7007874016 0.7007874016 0.7007874016 0.7007874016 </inputs><motors> 0 0 35.6 90.0 44.9 0.0 </motors></point>
 <point><inputs> 0.7086614173 0.7086614173 0.7086614173 0.7086614173 0.7086614173 0.7086614173 </inputs><motors> 0 0 35.9 90.0 45.5 0.0 </motors></point>
 <point><inputs> 0.7165354331 0.7165354331 0.7165354331 0.7165354331 0.7165354331 0.7165354331 </inputs><motors> 0 0 36.2 90.0 46.0 0.0 </motors></point>
 <point><inputs> 0.7244094488 0.7244094488 0.7244094488 0.7244094488 0.7244094488 0.7244094488 </inputs><motors> 0 0 36.4 90.0 46.6 0.0 </motors></point>
 <point><inputs> 0.7322834646 0.7322834646 0.7322834646 0.7322834646 0.7322834646 0.7322834646 </inputs><motors> 0 0 36.7 90.0 47.2 0.0 </motors></point>
 <point><inputs> 0.7401574803 0.7401574803 0.7401574803 0.7401574803 0.7401574803 0.7401574803 </inputs><motors> 0 0 37.0 90.0 47.7 0.0 </motors></point>
 <point><inputs> 0.7480314961 0.7480314961 0.7480314961 0.7480314961 0.7480314961 0.7480314961 </inputs><motors> 0 0 37.3 90.0 48.3 0.0 </motors></point>
 <point><inputs> 0.7559055118 0.7559055118 0.7559055118 0.7559055118 0.7559055118 0.7559055118 </inputs><motors> 0 0 37.6 90.0 48.9 0.0 </motors></point>
 <point><inputs> 0.7637795276 0.7637795276 0.7637795276 0.7637795276 0.7637795276 0.7637795276 </inputs><motors> 0 0 37.9 90.0 49.5 0.0 </motors></point>
 <point><inputs> 0.7716535433 0.7716535433 0.7716535433 0.7716535433 0.7716535433 0.7716535433 </inputs><motors> 0 0 38.2 90.0 50.0 0.0 </motors></point>
 <point><inputs> 0.7795275591 0.7795275591 0.7795275591 0.7795275591 0.7795275591 0.7795275591 </inputs><motors> 0 0 38.5 90.0 50.6 0.0 </motors></point>
 <point><inputs> 0.7874015748 0.7874015748 0.7874015748 0.7874015748 0.7874015748 0.7874015748 </inputs><motors> 0 0 38.8 90.0 51.2 0.0 </motors></point>
 <point><inputs> 0.7952755906 0.7952755906 0.7952755906 0.7952755906 0.7952755906 0.7952755906 </inputs><motors> 0 0 39.1 90.0 51.7 0.0 </motors></point>
 <point><inputs> 0.8031496063 0.8031496063 0.8031496063 0.8031496063 0.8031496063 0.8031496063 </inputs><motors> 0 0 39.4 90.0 52.3 0.0 </motors></point>
 <point><inputs> 0.811023622 0.811023622 0.811023622 0.811023622 0.811023622 0.811023622 </inputs><motors> 0 0 39.6 90.0 52.9 0.0 </motors></point>
 <point><inputs> 0.8188976378 0.8188976378 0.8188976378 0.8188976378 0.8188976378 0.8188976378 </inputs><motors> 0 0 39.9 90.0 53.4 0.0 </motors></point>
 <point><inputs> 0.8267716535 0.8267716535 0.8267716535 0.8267716535 0.8267716535 0.8267716535 </inputs><motors> 0 0 40.2 90.0 54.0 0.0 </motors></point>
 <point><inputs> 0.8346456693 0.8346456693 0.8346456693 0.8346456693 0.8346456693 0.8346456693 </inputs><motors> 0 0 40.5 90.0 54.6 0.0 </motors></point>
 <point><inputs> 0.842519685 0.842519685 0.842519685 0.842519685 0.842519685 0.842519685 </inputs><motors> 0 0 40.8 90.0 55.2 0.0 </motors></point>
 <point><inputs> 0.8503937008 0.8503937008 0.8503937008 0.8503937008 0.8503937008 0.8503937008 </inputs><motors> 0 0 41.1 90.0 55.7 0.0 </motors></point>
 <point><inputs> 0.8582677165 0.8582677165 0.8582677165 0.8582677165 0.8582677165 0.8582677165 </inputs><motors> 0 0 41.4 90.0 56.3 0.0 </motors></point>
 <point><inputs> 0.8661417323 0.8661417323 0.8661417323 0.8661417323 0.8661417323 0.8661417323 </inputs><motors> 0 0 41.7 90.0 56.9 0.0 </motors></point>
 <point><inputs> 0.874015748 0.874015748 0.874015748 0.874015748 0.874015748 0.874015748 </inputs><motors> 0 0 42.0 90.0 57.4 0.0 </motors></point>
 <point><inputs> 0.8818897638 0.8818897638 0.8818897638 0.8818897638 0.8818897638 0.8818897638 </inputs><motors> 0 0 42.3 90.0 58.0 0.0 </motors></point>
 <point><inputs> 0.8897637795 0.8897637795 0.8897637795 0.8897637795 0.8897637795 0.8897637795 </inputs><motors> 0 0 42.5 90.0 58.6 0.0 </motors></point>
 <point><inputs> 0.8976377953 0.8976377953 0.8976377953 0.8976377953 0.8976377953 0.8976377953 </inputs><motors> 0 0 42.8 90.0 59.1 0.0 </motors></point>
 <point><inputs> 0.905511811 0.905511811 0.905511811 0.905511811 0.905511811 0.905511811 </inputs><motors> 0 0 43.1 90.0 59.7 0.0 </motors></point>
 <point><inputs> 0.9133858268 0.9133858268 0.9133858268 0.9133858268 0.9133858268 0.9133858268 </inputs><motors> 0 0 43.4 90.0 60.3 0.0 </motors></point>
 <point><inputs> 0.9212598425 0.9212598425 0.9212598425 0.9212598425 0.9212598425 0.9212598425 </inputs><motors> 0 0 43.7 90.0 60.9 0.0 </motors></point>
 <point><inputs> 0.9291338583 0.9291338583 0.9291338583 0.9291338583 0.9291338583 0.9291338583 </inputs><motors> 0 0 44.0 90.0 62.0 0.0 </motors></point>
 <point><inputs> 0.937007874 0.937007874 0.937007874 0.937007874 0.937007874 0.937007874 </inputs><motors> 0 0 44.0 90.0 63.0 0.0 </motors></point>
 <point><inputs> 0.9448818898 0.9448818898 0.9448818898 0.9448818898 0.9448818898 0.9448818898 </inputs><motors> 0 0 44.0 90.0 64.0 0.0 </motors></point>
 <point><inputs> 0.9527559055 0.9527559055 0.9527559055 0.9527559055 0.9527559055 0.9527559055 </inputs><motors> 0 0 44.0 90.0 65.0 0.0 </motors></point>
 <point><inputs> 0.9606299213 0.9606299213 0.9606299213 0.9606299213 0.9606299213 0.9606299213 </inputs><motors> 0 0 44.0 90.0 66.0 0.0 </motors></point>
 <point><inputs> 0.968503937 0.968503937 0.968503937 0.968503937 0.968503937 0.968503937 </inputs><motors> 0 0 44.0 90.0 67.0 0.0 </motors></point>
 <point><inputs> 0.9763779528 0.9763779528 0.9763779528 0.9763779528 0.9763779528 0.9763779528 </inputs><motors> 0 0 44.0 90.0 68.0 0.0 </motors></point>
 <point><inputs> 0.9842519685 0.9842519685 0.9842519685 0.9842519685 0.9842519685 0.9842519685 </inputs><motors> 0 0 44.0 90.0 69.0 0.0 </motors></point>
 <point><inputs> 0.9921259843 0.9921259843 0.9921259843 0.9921259843 0.9921259843 0.9921259843 </inputs><motors> 0 0 44.0 90.0 70.0 0.0 </motors></point>
 <point><inputs> 1 1 1 1 1 1 </inputs><motors> 0 0 44.0 90.0 71.0 0.0 </motors></point>
</grasp>
<grasp name='LateralPinch'>
 <point><inputs> 0 0 0 0 0 0 </inputs><motors> 0 0 75.0 76.0 1.0 0.0 </motors></point>
 <point><inputs> 0.007874015748 0.007874015748 0.007874015748 0.007874015748 0.007874015748 0.007874015748 </inputs><motors> 0 0 73.5 71.4 7.4 7.0 </motors></point>
 <point><inputs> 0.0157480315 0.0157480315 0.0157480315 0.0157480315 0.0157480315 0.0157480315 </inputs><motors> 0 0 72.0 66.8 13.8 14.0 </motors></point>
 <point><inputs> 0.02362204724 0.02362204724 0.02362204724 0.02362204724 0.02362204724 0.02362204724 </inputs><motors> 0 0 70.5 62.2 20.2 21.0 </motors></point>
 <point><inputs> 0.03149606299 0.03149606299 0.03149606299 0.03149606299 0.03149606299 0.03149606299 </inputs><motors> 0 0 69.0 57.6 26.6 28.0 </motors></point>
 <point><inputs> 0.03937007874 0.03937007874 0.03937007874 0.03937007874 0.03937007874 0.03937007874 </inputs><motors> 0 0 67.5 53.0 33.0 35.0 </motors></point>
 <point><inputs> 0.04724409449 0.04724409449 0.04724409449 0.04724409449 0.04724409449 0.04724409449 </inputs><motors> 0 0 66.0 48.4 39.4 42.0 </motors></point>
 <point><inputs> 0.05511811024 0.05511811024 0.05511811024 0.05511811024 0.05511811024 0.05511811024 </inputs><motors> 0 0 64.5 43.8 45.8 49.0 </motors></point>
 <point><inputs> 0.06299212598 0.06299212598 0.06299212598 0.06299212598 0.06299212598 0.06299212598 </inputs><motors> 0 0 63.0 39.2 52.2 56.0 </motors></point>
 <point><inputs> 0.07086614173 0.07086614173 0.07086614173 0.07086614173 0.07086614173 0.07086614173 </inputs><motors> 0 0 61.5 30.0 58.6 63.0 </motors></point>
 <point><inputs> 0.07874015748 0.07874015748 0.07874015748 0.07874015748 0.07874015748 0.07874015748 </inputs><motors> 0 0 60.0 30 65.0 70.0 </motors></point>
 <point><inputs> 0.08661417323 0.08661417323 0.08661417323 0.08661417323 0.08661417323 0.08661417323 </inputs><motors> 0 0 60.0 30.0 65.0 70.0 </motors></point>
 <point><inputs> 0.09448818898 0.09448818898 0.09448818898 0.09448818898 0.09448818898 0.09448818898 </inputs><motors> 0 0 60.0 30.6 65.0 70.0 </motors></point>
 <point><inputs> 0.1023622047 0.1023622047 0.1023622047 0.1023622047 0.1023622047 0.1023622047 </inputs><motors> 0 0 60.0 31.1 65.0 70.0 </motors></point>
 <point><inputs> 0.1102362205 0.1102362205 0.1102362205 0.1102362205 0.1102362205 0.1102362205 </inputs><motors> 0 0 60.0 31.7 65.0 70.0 </motors></point>
 <point><inputs> 0.1181102362 0.1181102362 0.1181102362 0.1181102362 0.1181102362 0.1181102362 </inputs><motors> 0 0 60.0 32.3 65.0 70.0 </motors></point>
 <point><inputs> 0.125984252 0.125984252 0.125984252 0.125984252 0.125984252 0.125984252 </inputs><motors> 0 0 60.0 32.8 65.0 70.0 </motors></point>
 <point><inputs> 0.1338582677 0.1338582677 0.1338582677 0.1338582677 0.1338582677 0.1338582677 </inputs><motors> 0 0 60.0 33.4 65.0 70.0 </motors></point>
 <point><inputs> 0.1417322835 0.1417322835 0.1417322835 0.1417322835 0.1417322835 0.1417322835 </inputs><motors> 0 0 60.0 34.0 65.0 70.0 </motors></point>
 <point><inputs> 0.1496062992 0.1496062992 0.1496062992 0.1496062992 0.1496062992 0.1496062992 </inputs><motors> 0 0 60.0 34.5 65.0 70.0 </motors></point>
 <point><inputs> 0.157480315 0.157480315 0.157480315 0.157480315 0.157480315 0.157480315 </inputs><motors> 0 0 60.0 35.1 65.0 70.0 </motors></point>
 <point><inputs> 0.1653543307 0.1653543307 0.1653543307 0.1653543307 0.1653543307 0.1653543307 </inputs><motors> 0 0 60.0 35.7 65.0 70.0 </motors></point>
 <point><inputs> 0.1732283465 0.1732283465 0.1732283465 0.1732283465 0.1732283465 0.1732283465 </inputs><motors> 0 0 60.0 36.2 65.0 70.0 </motors></point>
 <point><inputs> 0.1811023622 0.1811023622 0.1811023622 0.1811023622 0.1811023622 0.1811023622 </inputs><motors> 0 0 60.0 36.8 65.0 70.0 </motors></point>
 <point><inputs> 0.188976378 0.188976378 0.188976378 0.188976378 0.188976378 0.188976378 </inputs><motors> 0 0 60.0 37.3 65.0 70.0 </motors></point>
 <point><inputs> 0.1968503937 0.1968503937 0.1968503937 0.1968503937 0.1968503937 0.1968503937 </inputs><motors> 0 0 60.0 37.9 65.0 70.0 </motors></point>
 <point><inputs> 0.2047244094 0.2047244094 0.2047244094 0.2047244094 0.2047244094 0.2047244094 </inputs><motors> 0 0 60.0 38.5 65.0 70.0 </motors></point>
 <point><inputs> 0.2125984252 0.2125984252 0.2125984252 0.2125984252 0.2125984252 0.2125984252 </inputs><motors> 0 0 60.0 39.0 65.0 70.0 </motors></point>
 <point><inputs> 0.2204724409 0.2204724409 0.2204724409 0.2204724409 0.2204724409 0.2204724409 </inputs><motors> 0 0 60.0 39.6 65.0 70.0 </motors></point>
 <point><inputs> 0.2283464567 0.2283464567 0.2283464567 0.2283464567 0.2283464567 0.2283464567 </inputs><motors> 0 0 60.0 40.2 65.0 70.0 </motors></point>
 <point><inputs> 0.2362204724 0.2362204724 0.2362204724 0.2362204724 0.2362204724 0.2362204724 </inputs><motors> 0 0 60.0 40.7 65.0 70.0 </motors></point>
 <point><inputs> 0.2440944882 0.2440944882 0.2440944882 0.2440944882 0.2440944882 0.2440944882 </inputs><motors> 0 0 60.0 41.3 65.0 70.0 </motors></point>
 <point><inputs> 0.2519685039 0.2519685039 0.2519685039 0.2519685039 0.2519685039 0.2519685039 </inputs><motors> 0 0 60.0 41.9 65.0 70.0 </motors></point>
 <point><inputs> 0.2598425197 0.2598425197 0.2598425197 0.2598425197 0.2598425197 0.2598425197 </inputs><motors> 0 0 60.0 42.4 65.0 70.0 </motors></point>
 <point><inputs> 0.2677165354 0.2677165354 0.2677165354 0.2677165354 0.2677165354 0.2677165354 </inputs><motors> 0 0 60.0 43.0 65.0 70.0 </motors></point>
 <point><inputs> 0.2755905512 0.2755905512 0.2755905512 0.2755905512 0.2755905512 0.2755905512 </inputs><motors> 0 0 60.0 43.6 65.0 70.0 </motors></point>
 <point><inputs> 0.2834645669 0.2834645669 0.2834645669 0.2834645669 0.2834645669 0.2834645669 </inputs><motors> 0 0 60.0 44.1 65.0 70.0 </motors></point>
 <point><inputs> 0.2913385827 0.2913385827 0.2913385827 0.2913385827 0.2913385827 0.2913385827 </inputs><motors> 0 0 60.0 44.7 65.0 70.0 </motors></point>
 <point><inputs> 0.2992125984 0.2992125984 0.2992125984 0.2992125984 0.2992125984 0.2992125984 </inputs><motors> 0 0 60.0 45.3 65.0 70.0 </motors></point>
 <point><inputs> 0.3070866142 0.3070866142 0.3070866142 0.3070866142 0.3070866142 0.3070866142 </inputs><motors> 0 0 60.0 45.8 65.0 70.0 </motors></point>
 <point><inputs> 0.3149606299 0.3149606299 0.3149606299 0.3149606299 0.3149606299 0.3149606299 </inputs><motors> 0 0 60.0 46.4 65.0 70.0 </motors></point>
 <point><inputs> 0.3228346457 0.3228346457 0.3228346457 0.3228346457 0.3228346457 0.3228346457 </inputs><motors> 0 0 60.0 47.0 65.0 70.0 </motors></point>
 <point><inputs> 0.3307086614 0.3307086614 0.3307086614 0.3307086614 0.3307086614 0.3307086614 </inputs><motors> 0 0 60.0 47.5 65.0 70.0 </motors></point>
 <point><inputs> 0.3385826772 0.3385826772 0.3385826772 0.3385826772 0.3385826772 0.3385826772 </inputs><motors> 0 0 60.0 48.1 65.0 70.0 </motors></point>
 <point><inputs> 0.3464566929 0.3464566929 0.3464566929 0.3464566929 0.3464566929 0.3464566929 </inputs><motors> 0 0 60.0 48.7 65.0 70.0 </motors></point>
 <point><inputs> 0.3543307087 0.3543307087 0.3543307087 0.3543307087 0.3543307087 0.3543307087 </inputs><motors> 0 0 60.0 49.2 65.0 70.0 </motors></point>
 <point><inputs> 0.3622047244 0.3622047244 0.3622047244 0.3622047244 0.3622047244 0.3622047244 </inputs><motors> 0 0 60.0 49.8 65.0 70.0 </motors></point>
 <point><inputs> 0.3700787402 0.3700787402 0.3700787402 0.3700787402 0.3700787402 0.3700787402 </inputs><motors> 0 0 60.0 50.3 65.0 70.0 </motors></point>
 <point><inputs> 0.3779527559 0.3779527559 0.3779527559 0.3779527559 0.3779527559 0.3779527559 </inputs><motors> 0 0 60.0 50.9 65.0 70.0 </motors></point>
 <point><inputs> 0.3858267717 0.3858267717 0.3858267717 0.3858267717 0.3858267717 0.3858267717 </inputs><motors> 0 0 60.0 51.5 65.0 70.0 </motors></point>
 <point><inputs> 0.3937007874 0.3937007874 0.3937007874 0.3937007874 0.3937007874 0.3937007874 </inputs><motors> 0 0 60.0 52.0 65.0 70.0 </motors></point>
 <point><inputs> 0.4015748031 0.4015748031 0.4015748031 0.4015748031 0.4015748031 0.4015748031 </inputs><motors> 0 0 60.0 52.6 65.0 70.0 </motors></point>
 <point><inputs> 0.4094488189 0.4094488189 0.4094488189 0.4094488189 0.4094488189 0.4094488189 </inputs><motors> 0 0 60.0 53.2 65.0 70.0 </motors></point>
 <point><inputs> 0.4173228346 0.4173228346 0.4173228346 0.4173228346 0.4173228346 0.4173228346 </inputs><motors> 0 0 60.0 53.7 65.0 70.0 </motors></point>
 <point><inputs> 0.4251968504 0.4251968504 0.4251968504 0.4251968504 0.4251968504 0.4251968504 </inputs><motors> 0 0 60.0 54.3 65.0 70.0 </motors></point>
 <point><inputs> 0.4330708661 0.4330708661 0.4330708661 0.4330708661 0.4330708661 0.4330708661 </inputs><motors> 0 0 60.0 54.9 65.0 70.0 </motors></point>
 <point><inputs> 0.4409448819 0.4409448819 0.4409448819 0.4409448819 0.4409448819 0.4409448819 </inputs><motors> 0 0 60.0 55.4 65.0 70.0 </motors></point>
 <point><inputs> 0.4488188976 0.4488188976 0.4488188976 0.4488188976 0.4488188976 0.4488188976 </inputs><motors> 0 0 60.0 56.0 65.0 70.0 </motors></point>
 <point><inputs> 0.4566929134 0.4566929134 0.4566929134 0.4566929134 0.4566929134 0.4566929134 </inputs><motors> 0 0 60.0 56.6 65.0 70.0 </motors></point>
 <point><inputs> 0.4645669291 0.4645669291 0.4645669291 0.4645669291 0.4645669291 0.4645669291 </inputs><motors> 0 0 60.0 57.1 65.0 70.0 </motors></point>
 <point><inputs> 0.4724409449 0.4724409449 0.4724409449 0.4724409449 0.4724409449 0.4724409449 </inputs><motors> 0 0 60.0 57.7 65.0 70.0 </motors></point>
 <point><inputs> 0.4803149606 0.4803149606 0.4803149606 0.4803149606 0.4803149606 0.4803149606 </inputs><motors> 0 0 60.0 58.3 65.0 70.0 </motors></point>
 <point><inputs> 0.4881889764 0.4881889764 0.4881889764 0.4881889764 0.4881889764 0.4881889764 </inputs><motors> 0 0 60.0 58.8 65.0 70.0 </motors></point>
 <point><inputs> 0.4960629921 0.4960629921 0.4960629921 0.4960629921 0.4960629921 0.4960629921 </inputs><motors> 0 0 60.0 59.4 65.0 70.0 </motors></point>
 <point><inputs> 0.5039370079 0.5039370079 0.5039370079 0.5039370079 0.5039370079 0.5039370079 </inputs><motors> 0 0 60.0 60.0 65.0 70.0 </motors></point>
 <point><inputs> 0.5118110236 0.5118110236 0.5118110236 0.5118110236 0.5118110236 0.5118110236 </inputs><motors> 0 0 60.0 60.5 65.0 70.0 </motors></point>
 <point><inputs> 0.5196850394 0.5196850394 0.5196850394 0.5196850394 0.5196850394 0.5196850394 </inputs><motors> 0 0 60.0 61.1 65.0 70.0 </motors></point>
 <point><inputs> 0.5275590551 0.5275590551 0.5275590551 0.5275590551 0.5275590551 0.5275590551 </inputs><motors> 0 0 60.0 61.7 65.0 70.0 </motors></point>
 <point><inputs> 0.5354330709 0.5354330709 0.5354330709 0.5354330709 0.5354330709 0.5354330709 </inputs><motors> 0 0 60.0 62.2 65.0 70.0 </motors></point>
 <point><inputs> 0.5433070866 0.5433070866 0.5433070866 0.5433070866 0.5433070866 0.5433070866 </inputs><motors> 0 0 60.0 62.8 65.0 70.0 </motors></point>
 <point><inputs> 0.5511811024 0.5511811024 0.5511811024 0.5511811024 0.5511811024 0.5511811024 </inputs><motors> 0 0 60.0 63.3 65.0 70.0 </motors></point>
 <point><inputs> 0.5590551181 0.5590551181 0.5590551181 0.5590551181 0.5590551181 0.5590551181 </inputs><motors> 0 0 60.0 63.9 65.0 70.0 </motors></point>
 <point><inputs> 0.5669291339 0.5669291339 0.5669291339 0.5669291339 0.5669291339 0.5669291339 </inputs><motors> 0 0 60.0 64.5 65.0 70.0 </motors></point>
 <point><inputs> 0.5748031496 0.5748031496 0.5748031496 0.5748031496 0.5748031496 0.5748031496 </inputs><motors> 0 0 60.0 65.0 65.0 70.0 </motors></point>
 <point><inputs> 0.5826771654 0.5826771654 0.5826771654 0.5826771654 0.5826771654 0.5826771654 </inputs><motors> 0 0 60.0 65.6 65.0 70.0 </motors></point>
 <point><inputs> 0.5905511811 0.5905511811 0.5905511811 0.5905511811 0.5905511811 0.5905511811 </inputs><motors> 0 0 60.0 66.2 65.0 70.0 </motors></point>
 <point><inputs> 0.5984251969 0.5984251969 0.5984251969 0.5984251969 0.5984251969 0.5984251969 </inputs><motors> 0 0 60.0 66.7 65.0 70.0 </motors></point>
 <point><inputs> 0.6062992126 0.6062992126 0.6062992126 0.6062992126 0.6062992126 0.6062992126 </inputs><motors> 0 0 60.0 67.3 65.0 70.0 </motors></point>
 <point><inputs> 0.6141732283 0.6141732283 0.6141732283 0.6141732283 0.6141732283 0.6141732283 </inputs><motors> 0 0 60.0 67.9 65.0 70.0 </motors></point>
 <point><inputs> 0.6220472441 0.6220472441 0.6220472441 0.6220472441 0.6220472441 0.6220472441 </inputs><motors> 0 0 60.0 68.4 65.0 70.0 </motors></point>
 <point><inputs> 0.6299212598 0.6299212598 0.6299212598 0.6299212598 0.6299212598 0.6299212598 </inputs><motors> 0 0 60.0 69.0 65.0 70.0 </motors></point>
 <point><inputs> 0.6377952756 0.6377952756 0.6377952756 0.6377952756 0.6377952756 0.6377952756 </inputs><motors> 0 0 60.0 69.6 65.0 70.0 </motors></point>
 <point><inputs> 0.6456692913 0.6456692913 0.6456692913 0.6456692913 0.6456692913 0.6456692913 </inputs><motors> 0 0 60.0 70.1 65.0 70.0 </motors></point>
 <point><inputs> 0.6535433071 0.6535433071 0.6535433071 0.6535433071 0.6535433071 0.6535433071 </inputs><motors> 0 0 60.0 70.7 65.0 70.0 </motors></point>
 <point><inputs> 0.6614173228 0.6614173228 0.6614173228 0.6614173228 0.6614173228 0.6614173228 </inputs><motors> 0 0 60.0 71.3 65.0 70.0 </motors></point>
 <point><inputs> 0.6692913386 0.6692913386 0.6692913386 0.6692913386 0.6692913386 0.6692913386 </inputs><motors> 0 0 60.0 71.8 65.0 70.0 </motors></point>
 <point><inputs> 0.6771653543 0.6771653543 0.6771653543 0.6771653543 0.6771653543 0.6771653543 </inputs><motors> 0 0 60.0 72.4 65.0 70.0 </motors></point>
 <point><inputs> 0.6850393701 0.6850393701 0.6850393701 0.6850393701 0.6850393701 0.6850393701 </inputs><motors> 0 0 60.0 73.0 65.0 70.0 </motors></point>
 <point><inputs> 0.6929133858 0.6929133858 0.6929133858 0.6929133858 0.6929133858 0.6929133858 </inputs><motors> 0 0 60.0 73.5 65.0 70.0 </motors></point>
 <point><inputs> 0.7007874016 0.7007874016 0.7007874016 0.7007874016 0.7007874016 0.7007874016 </inputs><motors> 0 0 60.0 74.1 65.0 70.0 </motors></point>
 <point><inputs> 0.7086614173 0.7086614173 0.7086614173 0.7086614173 0.7086614173 0.7086614173 </inputs><motors> 0 0 60.0 74.7 65.0 70.0 </motors></point>
 <point><inputs> 0.7165354331 0.7165354331 0.7165354331 0.7165354331 0.7165354331 0.7165354331 </inputs><motors> 0 0 60.0 75.2 65.0 70.0 </motors></point>
 <point><inputs> 0.7244094488 0.7244094488 0.7244094488 0.7244094488 0.7244094488 0.7244094488 </inputs><motors> 0 0 60.0 75.8 65.0 70.0 </motors></point>
 <point><inputs> 0.7322834646 0.7322834646 0.7322834646 0.7322834646 0.7322834646 0.7322834646 </inputs><motors> 0 0 60.0 76.3 65.0 70.0 </motors></point>
 <point><inputs> 0.7401574803 0.7401574803 0.7401574803 0.7401574803 0.7401574803 0.7401574803 </inputs><motors> 0 0 60.0 76.9 65.0 70.0 </motors></point>
 <point><inputs> 0.7480314961 0.7480314961 0.7480314961 0.7480314961 0.7480314961 0.7480314961 </inputs><motors> 0 0 60.0 77.5 65.0 70.0 </motors></point>
 <point><inputs> 0.7559055118 0.7559055118 0.7559055118 0.7559055118 0.7559055118 0.7559055118 </inputs><motors> 0 0 60.0 78.0 65.0 70.0 </motors></point>
 <point><inputs> 0.7637795276 0.7637795276 0.7637795276 0.7637795276 0.7637795276 0.7637795276 </inputs><motors> 0 0 60.0 78.6 65.0 70.0 </motors></point>
 <point><inputs> 0.7716535433 0.7716535433 0.7716535433 0.7716535433 0.7716535433 0.7716535433 </inputs><motors> 0 0 60.0 79.2 65.0 70.0 </motors></point>
 <point><inputs> 0.7795275591 0.7795275591 0.7795275591 0.7795275591 0.7795275591 0.7795275591 </inputs><motors> 0 0 60.0 79.7 65.0 70.0 </motors></point>
 <point><inputs> 0.7874015748 0.7874015748 0.7874015748 0.7874015748 0.7874015748 0.7874015748 </inputs><motors> 0 0 60.0 80.3 65.0 70.0 </motors></point>
 <point><inputs> 0.7952755906 0.7952755906 0.7952755906 0.7952755906 0.7952755906 0.7952755906 </inputs><motors> 0 0 60.0 80.9 65.0 70.0 </motors></point>
 <point><inputs> 0.8031496063 0.8031496063 0.8031496063 0.8031496063 0.8031496063 0.8031496063 </inputs><motors> 0 0 60.0 81.4 65.0 70.0 </motors></point>
 <point><inputs> 0.811023622 0.811023622 0.811023622 0.811023622 0.811023622 0.811023622 </inputs><motors> 0 0 60.0 82.0 65.0 70.0 </motors></point>
 <point><inputs> 0.8188976378 0.8188976378 0.8188976378 0.8188976378 0.8188976378 0.8188976378 </inputs><motors> 0 0 60.0 82.6 65.0 70.0 </motors></point>
 <point><inputs> 0.8267716535 0.8267716535 0.8267716535 0.8267716535 0.8267716535 0.8267716535 </inputs><motors> 0 0 60.0 83.1 65.0 70.0 </motors></point>
 <point><inputs> 0.8346456693 0.8346456693 0.8346456693 0.8346456693 0.8346456693 0.8346456693 </inputs><motors> 0 0 60.0 83.7 65.0 70.0 </motors></point>
 <point><inputs> 0.842519685 0.842519685 0.842519685 0.842519685 0.842519685 0.842519685 </inputs><motors> 0 0 60.0 84.3 65.0 70.0 </motors></point>
 <point><inputs> 0.8503937008 0.8503937008 0.8503937008 0.8503937008 0.8503937008 0.8503937008 </inputs><motors> 0 0 60.0 84.8 65.0 70.0 </motors></point>
 <point><inputs> 0.8582677165 0.8582677165 0.8582677165 0.8582677165 0.8582677165 0.8582677165 </inputs><motors> 0 0 60.0 85.4 65.0 70.0 </motors></point>
 <point><inputs> 0.8661417323 0.8661417323 0.8661417323 0.8661417323 0.8661417323 0.8661417323 </inputs><motors> 0 0 60.0 86.0 65.0 70.0 </motors></point>
 <point><inputs> 0.874015748 0.874015748 0.874015748 0.874015748 0.874015748 0.874015748 </inputs><motors> 0 0 60.0 86.5 65.0 70.0 </motors></point>
 <point><inputs> 0.8818897638 0.8818897638 0.8818897638 0.8818897638 0.8818897638 0.8818897638 </inputs><motors> 0 0 60.0 87.1 65.0 70.0 </motors></point>
 <point><inputs> 0.8897637795 0.8897637795 0.8897637795 0.8897637795 0.8897637795 0.8897637795 </inputs><motors> 0 0 60.0 87.7 65.0 70.0 </motors></point>
 <point><inputs> 0.8976377953 0.8976377953 0.8976377953 0.8976377953 0.8976377953 0.8976377953 </inputs><motors> 0 0 60.0 88.2 65.0 70.0 </motors></point>
 <point><inputs> 0.905511811 0.905511811 0.905511811 0.905511811 0.905511811 0.905511811 </inputs><motors> 0 0 60.0 88.8 65.0 70.0 </motors></point>
 <point><inputs> 0.9133858268 0.9133858268 0.9133858268 0.9133858268 0.9133858268 0.9133858268 </inputs><motors> 0 0 60.0 89.3 65.0 70.0 </motors></point>
 <point><inputs> 0.9212598425 0.9212598425 0.9212598425 0.9212598425 0.9212598425 0.9212598425 </inputs><motors> 0 0 60.0 89.9 65.0 70.0 </motors></point>
 <point><inputs> 0.9291338583 0.9291338583 0.9291338583 0.9291338583 0.9291338583 0.9291338583 </inputs><motors> 0 0 60.0 90.5 65.0 70.0 </motors></point>
 <point><inputs> 0.937007874 0.937007874 0.937007874 0.937007874 0.937007874 0.937007874 </inputs><motors> 0 0 60.0 91.0 65.0 70.0 </motors></point>
 <point><inputs> 0.9448818898 0.9448818898 0.9448818898 0.9448818898 0.9448818898 0.9448818898 </inputs><motors> 0 0 60.0 91.6 65.0 70.0 </motors></point>
 <point><inputs> 0.9527559055 0.9527559055 0.9527559055 0.9527559055 0.9527559055 0.9527559055 </inputs><motors> 0 0 60.0 92.2 65.0 70.0 </motors></point>
 <point><inputs> 0.9606299213 0.9606299213 0.9606299213 0.9606299213 0.9606299213 0.9606299213 </inputs><motors> 0 0 60.0 92.7 65.0 70.0 </motors></point>
 <point><inputs> 0.968503937 0.968503937 0.968503937 0.968503937 0.968503937 0.968503937 </inputs><motors> 0 0 60.0 93.3 65.0 70.0 </motors></point>
 <point><inputs> 0.9763779528 0.9763779528 0.9763779528 0.9763779528 0.9763779528 0.9763779528 </inputs><motors> 0 0 60.0 93.9 65.0 70.0 </motors></point>
 <point><inputs> 0.9842519685 0.9842519685 0.9842519685 0.9842519685 0.9842519685 0.9842519685 </inputs><motors> 0 0 60.0 94.4 65.0 70.0 </motors></point>
 <point><inputs> 0.9921259843 0.9921259843 0.9921259843 0.9921259843 0.9921259843 0.9921259843 </inputs><motors> 0 0 60.0 95.0 65.0 70.0 </motors></point>
 <point><inputs> 1 1 1 1 1 1 </inputs><motors> 0 0 60.0 95.0 65.0 70.0 </motors></point>
</grasp>
<grasp name='Chuck'>
 <point><inputs> 0 0 0 0 0 0 </inputs><motors> 0 0 10.0 97.0 1.0 0.0 </motors></point>
 <point><inputs> 0.007874015748 0.007874015748 0.007874015748 0.007874015748 0.007874015748 0.007874015748 </inputs><motors> 0 0 10.3 97.0 1.6 0.6 </motors></point>
 <point><inputs> 0.0157480315 0.0157480315 0.0157480315 0.0157480315 0.0157480315 0.0157480315 </inputs><motors> 0 0 10.7 97.0 2.2 1.1 </motors></point>
 <point><inputs> 0.02362204724 0.02362204724 0.02362204724 0.02362204724 0.02362204724 0.02362204724 </inputs><motors> 0 0 11.0 97.0 2.7 1.7 </motors></point>
 <point><inputs> 0.03149606299 0.03149606299 0.03149606299 0.03149606299 0.03149606299 0.03149606299 </inputs><motors> 0 0 11.4 97.0 3.3 2.2 </motors></point>
 <point><inputs> 0.03937007874 0.03937007874 0.03937007874 0.03937007874 0.03937007874 0.03937007874 </inputs><motors> 0 0 11.7 97.0 3.9 2.8 </motors></point>
 <point><inputs> 0.04724409449 0.04724409449 0.04724409449 0.04724409449 0.04724409449 0.04724409449 </inputs><motors> 0 0 12.0 97.0 4.5 3.3 </motors></point>
 <point><inputs> 0.05511811024 0.05511811024 0.05511811024 0.05511811024 0.05511811024 0.05511811024 </inputs><motors> 0 0 12.4 97.0 5.1 3.9 </motors></point>
 <point><inputs> 0.06299212598 0.06299212598 0.06299212598 0.06299212598 0.06299212598 0.06299212598 </inputs><motors> 0 0 12.7 97.0 5.7 4.4 </motors></point>
 <point><inputs> 0.07086614173 0.07086614173 0.07086614173 0.07086614173 0.07086614173 0.07086614173 </inputs><motors> 0 0 13.0 97.0 6.2 5.0 </motors></point>
 <point><inputs> 0.07874015748 0.07874015748 0.07874015748 0.07874015748 0.07874015748 0.07874015748 </inputs><motors> 0 0 13.4 97 6.8 5.5 </motors></point>
 <point><inputs> 0.08661417323 0.08661417323 0.08661417323 0.08661417323 0.08661417323 0.08661417323 </inputs><motors> 0 0 13.7 97.0 7.4 6.1 </motors></point>
 <point><inputs> 0.09448818898 0.09448818898 0.09448818898 0.09448818898 0.09448818898 0.09448818898 </inputs><motors> 0 0 14.1 97.0 8.0 6.6 </motors></point>
 <point><inputs> 0.1023622047 0.1023622047 0.1023622047 0.1023622047 0.1023622047 0.1023622047 </inputs><motors> 0 0 14.4 97.0 8.6 7.2 </motors></point>
 <point><inputs> 0.1102362205 0.1102362205 0.1102362205 0.1102362205 0.1102362205 0.1102362205 </inputs><motors> 0 0 14.7 97.0 9.2 7.7 </motors></point>
 <point><inputs> 0.1181102362 0.1181102362 0.1181102362 0.1181102362 0.1181102362 0.1181102362 </inputs><motors> 0 0 15.1 97.0 9.7 8.3 </motors></point>
 <point><inputs> 0.125984252 0.125984252 0.125984252 0.125984252 0.125984252 0.125984252 </inputs><motors> 0 0 15.4 97.0 10.3 8.8 </motors></point>
 <point><inputs> 0.1338582677 0.1338582677 0.1338582677 0.1338582677 0.1338582677 0.1338582677 </inputs><motors> 0 0 15.8 97.0 10.9 9.4 </motors></point>
 <point><inputs> 0.1417322835 0.1417322835 0.1417322835 0.1417322835 0.1417322835 0.1417322835 </inputs><motors> 0 0 16.1 97.0 11.5 9.9 </motors></point>
 <point><inputs> 0.1496062992 0.1496062992 0.1496062992 0.1496062992 0.1496062992 0.1496062992 </inputs><motors> 0 0 16.4 97.0 12.1 10.5 </motors></point>
 <point><inputs> 0.157480315 0.157480315 0.157480315 0.157480315 0.157480315 0.157480315 </inputs><motors> 0 0 16.8 97.0 12.7 11.0 </motors></point>
 <point><inputs> 0.1653543307 0.1653543307 0.1653543307 0.1653543307 0.1653543307 0.1653543307 </inputs><motors> 0 0 17.1 97.0 13.2 11.6 </motors></point>
 <point><inputs> 0.1732283465 0.1732283465 0.1732283465 0.1732283465 0.1732283465 0.1732283465 </inputs><motors> 0 0 17.4 97.0 13.8 12.1 </motors></point>
 <point><inputs> 0.1811023622 0.1811023622 0.1811023622 0.1811023622 0.1811023622 0.1811023622 </inputs><motors> 0 0 17.8 97.0 14.4 12.7 </motors></point>
 <point><inputs> 0.188976378 0.188976378 0.188976378 0.188976378 0.188976378 0.188976378 </inputs><motors> 0 0 18.1 97.0 15.0 13.2 </motors></point>
 <point><inputs> 0.1968503937 0.1968503937 0.1968503937 0.1968503937 0.1968503937 0.1968503937 </inputs><motors> 0 0 18.5 97.0 15.6 13.8 </motors></point>
 <point><inputs> 0.2047244094 0.2047244094 0.2047244094 0.2047244094 0.2047244094 0.2047244094 </inputs><motors> 0 0 18.8 97.0 16.1 14.3 </motors></point>
 <point><inputs> 0.2125984252 0.2125984252 0.2125984252 0.2125984252 0.2125984252 0.2125984252 </inputs><motors> 0 0 19.1 97.0 16.7 14.9 </motors></point>
 <point><inputs> 0.2204724409 0.2204724409 0.2204724409 0.2204724409 0.2204724409 0.2204724409 </inputs><motors> 0 0 19.5 97.0 17.3 15.4 </motors></point>
 <point><inputs> 0.2283464567 0.2283464567 0.2283464567 0.2283464567 0.2283464567 0.2283464567 </inputs><motors> 0 0 19.8 97.0 17.9 16.0 </motors></point>
 <point><inputs> 0.2362204724 0.2362204724 0.2362204724 0.2362204724 0.2362204724 0.2362204724 </inputs><motors> 0 0 20.2 97.0 18.5 16.5 </motors></point>
 <point><inputs> 0.2440944882 0.2440944882 0.2440944882 0.2440944882 0.2440944882 0.2440944882 </inputs><motors> 0 0 20.5 97.0 19.1 17.1 </motors></point>
 <point><inputs> 0.2519685039 0.2519685039 0.2519685039 0.2519685039 0.2519685039 0.2519685039 </inputs><motors> 0 0 20.8 97.0 19.6 17.6 </motors></point>
 <point><inputs> 0.2598425197 0.2598425197 0.2598425197 0.2598425197 0.2598425197 0.2598425197 </inputs><motors> 0 0 21.2 97.0 20.2 18.2 </motors></point>
 <point><inputs> 0.2677165354 0.2677165354 0.2677165354 0.2677165354 0.2677165354 0.2677165354 </inputs><motors> 0 0 21.5 97.0 20.8 18.7 </motors></point>
 <point><inputs> 0.2755905512 0.2755905512 0.2755905512 0.2755905512 0.2755905512 0.2755905512 </inputs><motors> 0 0 21.9 97.0 21.4 19.3 </motors></point>
 <point><inputs> 0.2834645669 0.2834645669 0.2834645669 0.2834645669 0.2834645669 0.2834645669 </inputs><motors> 0 0 22.2 97.0 22.0 19.8 </motors></point>
 <point><inputs> 0.2913385827 0.2913385827 0.2913385827 0.2913385827 0.2913385827 0.2913385827 </inputs><motors> 0 0 22.5 97.0 22.6 20.4 </motors></point>
 <point><inputs> 0.2992125984 0.2992125984 0.2992125984 0.2992125984 0.2992125984 0.2992125984 </inputs><motors> 0 0 22.9 97.0 23.1 20.9 </motors></point>
 <point><inputs> 0.3070866142 0.3070866142 0.3070866142 0.3070866142 0.3070866142 0.3070866142 </inputs><motors> 0 0 23.2 97.0 23.7 21.5 </motors></point>
 <point><inputs> 0.3149606299 0.3149606299 0.3149606299 0.3149606299 0.3149606299 0.3149606299 </inputs><motors> 0 0 23.5 97.0 24.3 22.0 </motors></point>
 <point><inputs> 0.3228346457 0.3228346457 0.3228346457 0.3228346457 0.3228346457 0.3228346457 </inputs><motors> 0 0 23.9 97.0 24.9 22.6 </motors></point>
 <point><inputs> 0.3307086614 0.3307086614 0.3307086614 0.3307086614 0.3307086614 0.3307086614 </inputs><motors> 0 0 24.2 97.0 25.5 23.1 </motors></point>
 <point><inputs> 0.3385826772 0.3385826772 0.3385826772 0.3385826772 0.3385826772 0.3385826772 </inputs><motors> 0 0 24.6 97.0 26.1 23.7 </motors></point>
 <point><inputs> 0.3464566929 0.3464566929 0.3464566929 0.3464566929 0.3464566929 0.3464566929 </inputs><motors> 0 0 24.9 97.0 26.6 24.3 </motors></point>
 <point><inputs> 0.3543307087 0.3543307087 0.3543307087 0.3543307087 0.3543307087 0.3543307087 </inputs><motors> 0 0 25.2 97.0 27.2 24.8 </motors></point>
 <point><inputs> 0.3622047244 0.3622047244 0.3622047244 0.3622047244 0.3622047244 0.3622047244 </inputs><motors> 0 0 25.6 97.0 27.8 25.4 </motors></point>
 <point><inputs> 0.3700787402 0.3700787402 0.3700787402 0.3700787402 0.3700787402 0.3700787402 </inputs><motors> 0 0 25.9 97.0 28.4 25.9 </motors></point>
 <point><inputs> 0.3779527559 0.3779527559 0.3779527559 0.3779527559 0.3779527559 0.3779527559 </inputs><motors> 0 0 26.3 97.0 29.0 26.5 </motors></point>
 <point><inputs> 0.3858267717 0.3858267717 0.3858267717 0.3858267717 0.3858267717 0.3858267717 </inputs><motors> 0 0 26.6 97.0 29.6 27.0 </motors></point>
 <point><inputs> 0.3937007874 0.3937007874 0.3937007874 0.3937007874 0.3937007874 0.3937007874 </inputs><motors> 0 0 26.9 97.0 30.1 27.6 </motors></point>
 <point><inputs> 0.4015748031 0.4015748031 0.4015748031 0.4015748031 0.4015748031 0.4015748031 </inputs><motors> 0 0 27.3 97.0 30.7 28.1 </motors></point>
 <point><inputs> 0.4094488189 0.4094488189 0.4094488189 0.4094488189 0.4094488189 0.4094488189 </inputs><motors> 0 0 27.6 97.0 31.3 28.7 </motors></point>
 <point><inputs> 0.4173228346 0.4173228346 0.4173228346 0.4173228346 0.4173228346 0.4173228346 </inputs><motors> 0 0 27.9 97.0 31.9 29.2 </motors></point>
 <point><inputs> 0.4251968504 0.4251968504 0.4251968504 0.4251968504 0.4251968504 0.4251968504 </inputs><motors> 0 0 28.3 97.0 32.5 29.8 </motors></point>
 <point><inputs> 0.4330708661 0.4330708661 0.4330708661 0.4330708661 0.4330708661 0.4330708661 </inputs><motors> 0 0 28.6 97.0 33.0 30.3 </motors></point>
 <point><inputs> 0.4409448819 0.4409448819 0.4409448819 0.4409448819 0.4409448819 0.4409448819 </inputs><motors> 0 0 29.0 97.0 33.6 30.9 </motors></point>
 <point><inputs> 0.4488188976 0.4488188976 0.4488188976 0.4488188976 0.4488188976 0.4488188976 </inputs><motors> 0 0 29.3 97.0 34.2 31.4 </motors></point>
 <point><inputs> 0.4566929134 0.4566929134 0.4566929134 0.4566929134 0.4566929134 0.4566929134 </inputs><motors> 0 0 29.6 97.0 34.8 32.0 </motors></point>
 <point><inputs> 0.4645669291 0.4645669291 0.4645669291 0.4645669291 0.4645669291 0.4645669291 </inputs><motors> 0 0 30.0 97.0 35.4 32.5 </motors></point>
 <point><inputs> 0.4724409449 0.4724409449 0.4724409449 0.4724409449 0.4724409449 0.4724409449 </inputs><motors> 0 0 30.3 97.0 36.0 33.1 </motors></point>
 <point><inputs> 0.4803149606 0.4803149606 0.4803149606 0.4803149606 0.4803149606 0.4803149606 </inputs><motors> 0 0 30.7 97.0 36.5 33.6 </motors></point>
 <point><inputs> 0.4881889764 0.4881889764 0.4881889764 0.4881889764 0.4881889764 0.4881889764 </inputs><motors> 0 0 31.0 97.0 37.1 34.2 </motors></point>
 <point><inputs> 0.4960629921 0.4960629921 0.4960629921 0.4960629921 0.4960629921 0.4960629921 </inputs><motors> 0 0 31.3 97.0 37.7 34.7 </motors></point>
 <point><inputs> 0.5039370079 0.5039370079 0.5039370079 0.5039370079 0.5039370079 0.5039370079 </inputs><motors> 0 0 31.7 97.0 38.3 35.3 </motors></point>
 <point><inputs> 0.5118110236 0.5118110236 0.5118110236 0.5118110236 0.5118110236 0.5118110236 </inputs><motors> 0 0 32.0 97.0 38.9 35.8 </motors></point>
 <point><inputs> 0.5196850394 0.5196850394 0.5196850394 0.5196850394 0.5196850394 0.5196850394 </inputs><motors> 0 0 32.3 97.0 39.5 36.4 </motors></point>
 <point><inputs> 0.5275590551 0.5275590551 0.5275590551 0.5275590551 0.5275590551 0.5275590551 </inputs><motors> 0 0 32.7 97.0 40.0 36.9 </motors></point>
 <point><inputs> 0.5354330709 0.5354330709 0.5354330709 0.5354330709 0.5354330709 0.5354330709 </inputs><motors> 0 0 33.0 97.0 40.6 37.5 </motors></point>
 <point><inputs> 0.5433070866 0.5433070866 0.5433070866 0.5433070866 0.5433070866 0.5433070866 </inputs><motors> 0 0 33.4 97.0 41.2 38.0 </motors></point>
 <point><inputs> 0.5511811024 0.5511811024 0.5511811024 0.5511811024 0.5511811024 0.5511811024 </inputs><motors> 0 0 33.7 97.0 41.8 38.6 </motors></point>
 <point><inputs> 0.5590551181 0.5590551181 0.5590551181 0.5590551181 0.5590551181 0.5590551181 </inputs><motors> 0 0 34.0 97.0 42.4 39.1 </motors></point>
 <point><inputs> 0.5669291339 0.5669291339 0.5669291339 0.5669291339 0.5669291339 0.5669291339 </inputs><motors> 0 0 34.4 97.0 43.0 39.7 </motors></point>
 <point><inputs> 0.5748031496 0.5748031496 0.5748031496 0.5748031496 0.5748031496 0.5748031496 </inputs><motors> 0 0 34.7 97.0 43.5 40.2 </motors></point>
 <point><inputs> 0.5826771654 0.5826771654 0.5826771654 0.5826771654 0.5826771654 0.5826771654 </inputs><motors> 0 0 35.1 97.0 44.1 40.8 </motors></point>
 <point><inputs> 0.5905511811 0.5905511811 0.5905511811 0.5905511811 0.5905511811 0.5905511811 </inputs><motors> 0 0 35.4 97.0 44.7 41.3 </motors></point>
 <point><inputs> 0.5984251969 0.5984251969 0.5984251969 0.5984251969 0.5984251969 0.5984251969 </inputs><motors> 0 0 35.7 97.0 45.3 41.9 </motors></point>
 <point><inputs> 0.6062992126 0.6062992126 0.6062992126 0.6062992126 0.6062992126 0.6062992126 </inputs><motors> 0 0 36.1 97.0 45.9 42.4 </motors></point>
 <point><inputs> 0.6141732283 0.6141732283 0.6141732283 0.6141732283 0.6141732283 0.6141732283 </inputs><motors> 0 0 36.4 97.0 46.4 43.0 </motors></point>
 <point><inputs> 0.6220472441 0.6220472441 0.6220472441 0.6220472441 0.6220472441 0.6220472441 </inputs><motors> 0 0 36.7 97.0 47.0 43.5 </motors></point>
 <point><inputs> 0.6299212598 0.6299212598 0.6299212598 0.6299212598 0.6299212598 0.6299212598 </inputs><motors> 0 0 37.1 97.0 47.6 44.1 </motors></point>
 <point><inputs> 0.6377952756 0.6377952756 0.6377952756 0.6377952756 0.6377952756 0.6377952756 </inputs><motors> 0 0 37.4 97.0 48.2 44.6 </motors></point>
 <point><inputs> 0.6456692913 0.6456692913 0.6456692913 0.6456692913 0.6456692913 0.6456692913 </inputs><motors> 0 0 37.8 97.0 48.8 45.2 </motors></point>
 <point><inputs> 0.6535433071 0.6535433071 0.6535433071 0.6535433071 0.6535433071 0.6535433071 </inputs><motors> 0 0 38.1 97.0 49.4 45.7 </motors></point>
 <point><inputs> 0.6614173228 0.6614173228 0.6614173228 0.6614173228 0.6614173228 0.6614173228 </inputs><motors> 0 0 38.4 97.0 49.9 46.3 </motors></point>
 <point><inputs> 0.6692913386 0.6692913386 0.6692913386 0.6692913386 0.6692913386 0.6692913386 </inputs><motors> 0 0 38.8 97.0 50.5 46.9 </motors></point>
 <point><inputs> 0.6771653543 0.6771653543 0.6771653543 0.6771653543 0.6771653543 0.6771653543 </inputs><motors> 0 0 39.1 97.0 51.1 47.4 </motors></point>
 <point><inputs> 0.6850393701 0.6850393701 0.6850393701 0.6850393701 0.6850393701 0.6850393701 </inputs><motors> 0 0 39.5 97.0 51.7 48.0 </motors></point>
 <point><inputs> 0.6929133858 0.6929133858 0.6929133858 0.6929133858 0.6929133858 0.6929133858 </inputs><motors> 0 0 39.8 97.0 52.3 48.5 </motors></point>
 <point><inputs> 0.7007874016 0.7007874016 0.7007874016 0.7007874016 0.7007874016 0.7007874016 </inputs><motors> 0 0 40.1 97.0 52.9 49.1 </motors></point>
 <point><inputs> 0.7086614173 0.7086614173 0.7086614173 0.7086614173 0.7086614173 0.7086614173 </inputs><motors> 0 0 40.5 97.0 53.4 49.6 </motors></point>
 <point><inputs> 0.7165354331 0.7165354331 0.7165354331 0.7165354331 0.7165354331 0.7165354331 </inputs><motors> 0 0 40.8 97.0 54.0 50.2 </motors></point>
 <point><inputs> 0.7244094488 0.7244094488 0.7244094488 0.7244094488 0.7244094488 0.7244094488 </inputs><motors> 0 0 41.1 97.0 54.6 50.7 </motors></point>
 <point><inputs> 0.7322834646 0.7322834646 0.7322834646 0.7322834646 0.7322834646 0.7322834646 </inputs><motors> 0 0 41.5 97.0 55.2 51.3 </motors></point>
 <point><inputs> 0.7401574803 0.7401574803 0.7401574803 0.7401574803 0.7401574803 0.7401574803 </inputs><motors> 0 0 41.8 97.0 55.8 51.8 </motors></point>
 <point><inputs> 0.7480314961 0.7480314961 0.7480314961 0.7480314961 0.7480314961 0.7480314961 </inputs><motors> 0 0 42.2 97.0 56.4 52.4 </motors></point>
 <point><inputs> 0.7559055118 0.7559055118 0.7559055118 0.7559055118 0.7559055118 0.7559055118 </inputs><motors> 0 0 42.5 97.0 56.9 52.9 </motors></point>
 <point><inputs> 0.7637795276 0.7637795276 0.7637795276 0.7637795276 0.7637795276 0.7637795276 </inputs><motors> 0 0 42.8 97.0 57.5 53.5 </motors></point>
 <point><inputs> 0.7716535433 0.7716535433 0.7716535433 0.7716535433 0.7716535433 0.7716535433 </inputs><motors> 0 0 43.2 97.0 58.1 54.0 </motors></point>
 <point><inputs> 0.7795275591 0.7795275591 0.7795275591 0.7795275591 0.7795275591 0.7795275591 </inputs><motors> 0 0 43.5 97.0 58.7 54.6 </motors></point>
 <point><inputs> 0.7874015748 0.7874015748 0.7874015748 0.7874015748 0.7874015748 0.7874015748 </inputs><motors> 0 0 43.9 97.0 59.3 55.1 </motors></point>
 <point><inputs> 0.7952755906 0.7952755906 0.7952755906 0.7952755906 0.7952755906 0.7952755906 </inputs><motors> 0 0 44.2 97.0 59.9 55.7 </motors></point>
 <point><inputs> 0.8031496063 0.8031496063 0.8031496063 0.8031496063 0.8031496063 0.8031496063 </inputs><motors> 0 0 44.5 97.0 60.4 56.2 </motors></point>
 <point><inputs> 0.811023622 0.811023622 0.811023622 0.811023622 0.811023622 0.811023622 </inputs><motors> 0 0 44.9 97.0 61.0 56.8 </motors></point>
 <point><inputs> 0.8188976378 0.8188976378 0.8188976378 0.8188976378 0.8188976378 0.8188976378 </inputs><motors> 0 0 45.2 97.0 61.6 57.3 </motors></point>
 <point><inputs> 0.8267716535 0.8267716535 0.8267716535 0.8267716535 0.8267716535 0.8267716535 </inputs><motors> 0 0 45.6 97.0 62.2 57.9 </motors></point>
 <point><inputs> 0.8346456693 0.8346456693 0.8346456693 0.8346456693 0.8346456693 0.8346456693 </inputs><motors> 0 0 45.9 97.0 62.8 58.4 </motors></point>
 <point><inputs> 0.842519685 0.842519685 0.842519685 0.842519685 0.842519685 0.842519685 </inputs><motors> 0 0 46.2 97.0 63.3 59.0 </motors></point>
 <point><inputs> 0.8503937008 0.8503937008 0.8503937008 0.8503937008 0.8503937008 0.8503937008 </inputs><motors> 0 0 46.6 97.0 63.9 59.5 </motors></point>
 <point><inputs> 0.8582677165 0.8582677165 0.8582677165 0.8582677165 0.8582677165 0.8582677165 </inputs><motors> 0 0 46.9 97.0 64.5 60.1 </motors></point>
 <point><inputs> 0.8661417323 0.8661417323 0.8661417323 0.8661417323 0.8661417323 0.8661417323 </inputs><motors> 0 0 47.2 97.0 65.1 60.6 </motors></point>
 <point><inputs> 0.874015748 0.874015748 0.874015748 0.874015748 0.874015748 0.874015748 </inputs><motors> 0 0 47.6 97.0 65.7 61.2 </motors></point>
 <point><inputs> 0.8818897638 0.8818897638 0.8818897638 0.8818897638 0.8818897638 0.8818897638 </inputs><motors> 0 0 47.9 97.0 66.3 61.7 </motors></point>
 <point><inputs> 0.8897637795 0.8897637795 0.8897637795 0.8897637795 0.8897637795 0.8897637795 </inputs><motors> 0 0 48.3 97.0 66.8 62.3 </motors></point>
 <point><inputs> 0.8976377953 0.8976377953 0.8976377953 0.8976377953 0.8976377953 0.8976377953 </inputs><motors> 0 0 48.6 97.0 67.4 62.8 </motors></point>
 <point><inputs> 0.905511811 0.905511811 0.905511811 0.905511811 0.905511811 0.905511811 </inputs><motors> 0 0 48.9 97.0 68.0 63.4 </motors></point>
 <point><inputs> 0.9133858268 0.9133858268 0.9133858268 0.9133858268 0.9133858268 0.9133858268 </inputs><motors> 0 0 49.3 97.0 68.6 63.9 </motors></point>
 <point><inputs> 0.9212598425 0.9212598425 0.9212598425 0.9212598425 0.9212598425 0.9212598425 </inputs><motors> 0 0 49.6 97.0 69.2 64.5 </motors></point>
 <point><inputs> 0.9291338583 0.9291338583 0.9291338583 0.9291338583 0.9291338583 0.9291338583 </inputs><motors> 0 0 50.0 97.0 69.8 65.0 </motors></point>
 <point><inputs> 0.937007874 0.937007874 0.937007874 0.937007874 0.937007874 0.937007874 </inputs><motors> 0 0 50.3 97.0 70.3 65.6 </motors></point>
 <point><inputs> 0.9448818898 0.9448818898 0.9448818898 0.9448818898 0.9448818898 0.9448818898 </inputs><motors> 0 0 50.6 97.0 70.9 66.1 </motors></point>
 <point><inputs> 0.9527559055 0.9527559055 0.9527559055 0.9527559055 0.9527559055 0.9527559055 </inputs><motors> 0 0 51.0 97.0 71.5 66.7 </motors></point>
 <point><inputs> 0.9606299213 0.9606299213 0.9606299213 0.9606299213 0.9606299213 0.9606299213 </inputs><motors> 0 0 51.3 97.0 72.1 67.2 </motors></point>
 <point><inputs> 0.968503937 0.968503937 0.968503937 0.968503937 0.968503937 0.968503937 </inputs><motors> 0 0 51.6 97.0 72.7 67.8 </motors></point>
 <point><inputs> 0.9763779528 0.9763779528 0.9763779528 0.9763779528 0.9763779528 0.9763779528 </inputs><motors> 0 0 52.0 97.0 73.3 68.3 </motors></point>
 <point><inputs> 0.9842519685 0.9842519685 0.9842519685 0.9842519685 0.9842519685 0.9842519685 </inputs><motors> 0 0 52.3 97.0 73.8 68.9 </motors></point>
 <point><inputs> 0.9921259843 0.9921259843 0.9921259843 0.9921259843 0.9921259843 0.9921259843 </inputs><motors> 0 0 52.7 97.0 74.4 69.4 </motors></point>
 <point><inputs> 1 1 1 1 1 1 </inputs><motors> 0 0 53.0 97.0 75.0 70.0 </motors></point>
</grasp>
    </plugin>
  </gazebo>
</robot>
